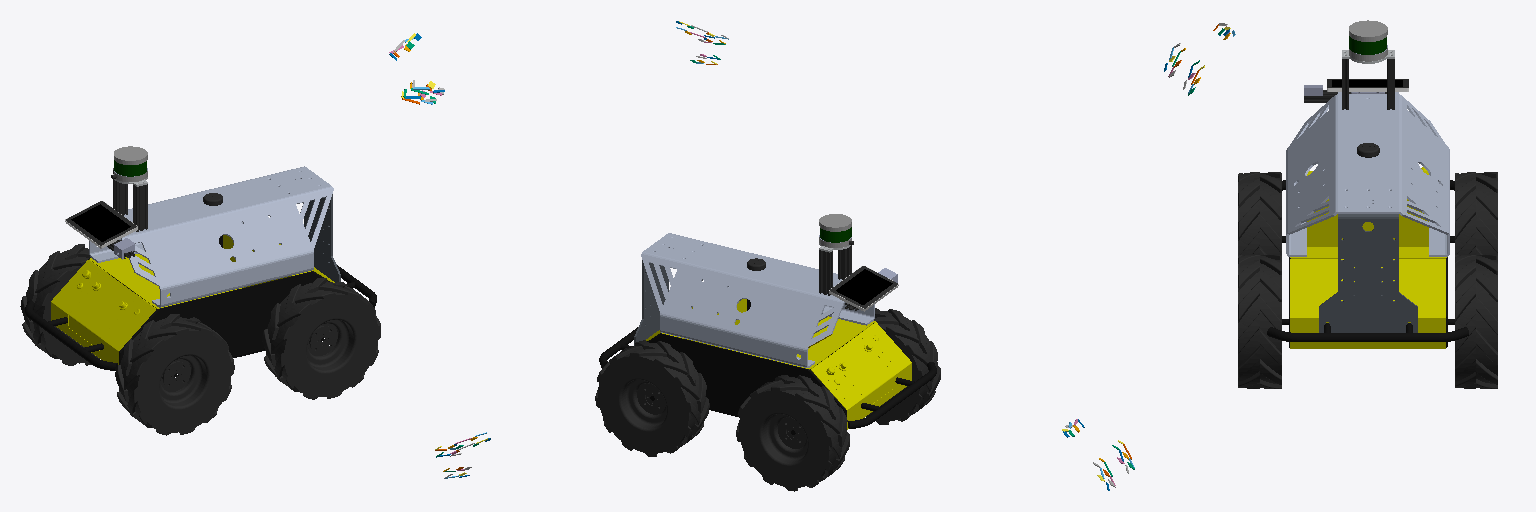
--- What the picture shows (computed from the rendered views, not written in the file) ---
3 views of the same robot in one strip: view 1: azimuth 30°, elevation 25°; view 2: azimuth 150°, elevation 25°; view 3: azimuth 270°, elevation 25° (orthographic).
Robot: husky_robot_gazebo — 126 links, 125 joints (92 revolute, 4 continuous, 29 fixed); root link base_link; default pose: all joints at 0.
Links seen in each view (by area): view 1: dual_arm_bulkhead_link, front_right_wheel_link, rear_right_wheel_link, top_chassis_link, base_link, rear_left_wheel_link, rear_bumper_link; view 2: dual_arm_bulkhead_link, rear_left_wheel_link, front_left_wheel_link, top_chassis_link, base_link, rear_right_wheel_link, rear_bumper_link; view 3: dual_arm_bulkhead_link, top_chassis_link, front_right_wheel_link, front_left_wheel_link, rear_right_wheel_link, rear_left_wheel_link, front_bumper_link.
Link boxes in pixels (left/top/right/bottom): dual_arm_bulkhead_link: left=65, top=146, right=340, bottom=307; front_right_wheel_link: left=262, top=278, right=380, bottom=399; rear_right_wheel_link: left=115, top=314, right=234, bottom=435; top_chassis_link: left=51, top=235, right=334, bottom=364; base_link: left=88, top=235, right=329, bottom=377; rear_left_wheel_link: left=20, top=244, right=99, bottom=365; rear_bumper_link: left=25, top=301, right=117, bottom=370; dual_arm_bulkhead_link: left=634, top=214, right=898, bottom=367; rear_left_wheel_link: left=736, top=375, right=849, bottom=491; front_left_wheel_link: left=595, top=340, right=709, bottom=456; top_chassis_link: left=646, top=299, right=911, bottom=429; base_link: left=647, top=299, right=873, bottom=434; rear_right_wheel_link: left=863, top=308, right=940, bottom=424; rear_bumper_link: left=848, top=362, right=936, bottom=428; dual_arm_bulkhead_link: left=1286, top=20, right=1449, bottom=332; top_chassis_link: left=1290, top=167, right=1446, bottom=348; front_right_wheel_link: left=1238, top=254, right=1281, bottom=388; front_left_wheel_link: left=1455, top=254, right=1497, bottom=388; rear_right_wheel_link: left=1238, top=172, right=1281, bottom=255; rear_left_wheel_link: left=1455, top=172, right=1497, bottom=255; front_bumper_link: left=1267, top=323, right=1468, bottom=341.
Bounding box of the posed robot: 1.05 × 1.15 × 1.35 m (x, y, z).
Meshes: 21 distinct files referenced, 9 mesh visuals loaded (5 Collada DAE); not drawn: 46 (reference not matched to a file when rendering).

The robot description file, URDF, robot "husky_robot_gazebo":
<?xml version="1.0" ?>
<!-- =================================================================================== -->
<!-- |    This document was autogenerated by xacro from ../urdf/description.gazebo.xacro | -->
<!-- |    EDITING THIS FILE BY HAND IS NOT RECOMMENDED                                 | -->
<!-- =================================================================================== -->
<!--
Software License Agreement (BSD)

\file      description.gazebo.xacro
\authors   Paul Bovbel <[email redacted], Devon Ash <[email redacted]>
\copyright Copyright (c) 2015, Clearpath Robotics, Inc., All rights reserved.

Redistribution and use in source and binary forms, with or without modification, are permitted provided that
the following conditions are met:
 * Redistributions of source code must retain the above copyright notice, this list of conditions and the
   following disclaimer.
 * Redistributions in binary form must reproduce the above copyright notice, this list of conditions and the
   following disclaimer in the documentation and/or other materials provided with the distribution.
 * Neither the name of Clearpath Robotics nor the names of its contributors may be used to endorse or promote
   products derived from this software without specific prior written permission.

THIS SOFTWARE IS PROVIDED BY THE COPYRIGHT HOLDERS AND CONTRIBUTORS "AS IS" AND ANY EXPRESS OR IMPLIED WAR-
RANTIES, INCLUDING, BUT NOT LIMITED TO, THE IMPLIED WARRANTIES OF MERCHANTABILITY AND FITNESS FOR A PARTICULAR
PURPOSE ARE DISCLAIMED. IN NO EVENT SHALL THE COPYRIGHT HOLDER OR CONTRIBUTORS BE LIABLE FOR ANY DIRECT, IN-
DIRECT, INCIDENTAL, SPECIAL, EXEMPLARY, OR CONSEQUENTIAL DAMAGES (INCLUDING, BUT NOT LIMITED TO, PROCUREMENT
OF SUBSTITUTE GOODS OR SERVICES; LOSS OF USE, DATA, OR PROFITS; OR BUSINESS INTERRUPTION) HOWEVER CAUSED AND
ON ANY THEORY OF LIABILITY, WHETHER IN CONTRACT, STRICT LIABILITY, OR TORT (INCLUDING NEGLIGENCE OR OTHERWISE)
ARISING IN ANY WAY OUT OF THE USE OF THIS SOFTWARE, EVEN IF ADVISED OF THE POSSIBILITY OF SUCH DAMAGE.
-->
<robot name="husky_robot_gazebo" xmlns:xacro="http://ros.org/wiki/xacro">
  <!-- Included URDF/XACRO Files -->
  <!-- Inertia parameters -->
  <!-- This mass might be incorrect -->
  <!-- Kinematic model -->
  <!-- Properties from urcontrol.conf -->
  <!--
    DH for UR5:
    a = [0.00000, -0.42500, -0.39225,  0.00000,  0.00000,  0.0000]
    d = [0.089159,  0.00000,  0.00000,  0.10915,  0.09465,  0.0823]
    alpha = [ 1.570796327, 0, 0, 1.570796327, -1.570796327, 0 ]
    q_home_offset = [0, -1.570796327, 0, -1.570796327, 0, 0]
    joint_direction = [-1, -1, 1, 1, 1, 1]
    mass = [3.7000, 8.3930, 2.2750, 1.2190, 1.2190, 0.1879]
    center_of_mass = [ [0, -0.02561, 0.00193], [0.2125, 0, 0.11336], [0.11993, 0.0, 0.0265], [0, -0.0018, 0.01634], [0, 0.0018,0.01634], [0, 0, -0.001159] ]
  -->
  <!-- Arbitrary offsets for shoulder/elbow joints -->
  <!-- measured from model -->
  <!-- measured from model -->
  <!-- link lengths used in model -->
  <!--property name="shoulder_height" value="0.089159" /-->
  <!--property name="shoulder_offset" value="0.13585" /-->
  <!-- shoulder_offset - elbow_offset + wrist_1_length = 0.10915 -->
  <!--property name="upper_arm_length" value="0.42500" /-->
  <!--property name="elbow_offset" value="0.1197" /-->
  <!-- CAD measured -->
  <!--property name="forearm_length" value="0.39225" /-->
  <!--property name="wrist_1_length" value="0.093" /-->
  <!-- CAD measured -->
  <!--property name="wrist_2_length" value="0.09465" /-->
  <!-- In CAD this distance is 0.930, but in the spec it is 0.09465 -->
  <!--property name="wrist_3_length" value="0.0823" /-->
  <!-- manually measured -->
  <!-- manually measured -->
  <!-- manually measured -->
  <!-- manually measured -->
  <!-- manually measured -->
  <!-- Base Size -->
  <!-- Wheel Mounting Positions -->
  <!-- Wheel Properties -->
  <!-- Gazebo plugin for ROS Control -->
  <gazebo>
    <plugin filename="libgazebo_ros_control.so" name="gazebo_ros_control">
      <robotNamespace>/</robotNamespace>
    </plugin>
  </gazebo>
  <!-- Base link is the center of the robot's bottom plate -->
  <link name="base_link">
    <visual>
      <origin rpy="0 0 0" xyz="0 0 0"/>
      <geometry>
        <mesh filename="package://husky_description/meshes/base_link.dae"/>
      </geometry>
    </visual>
    <collision>
      <origin rpy="0 0 0" xyz="0 0 0.061875"/>
      <geometry>
        <box size="0.9874 0.5709 0.12375"/>
      </geometry>
    </collision>
    <collision>
      <origin rpy="0 0 0" xyz="0 0 0.185625"/>
      <geometry>
        <box size="0.78992 0.5709 0.12375"/>
      </geometry>
    </collision>
  </link>
  <!-- Base footprint is on the ground under the robot -->
  <link name="base_footprint"/>
  <joint name="base_footprint_joint" type="fixed">
    <origin rpy="0 0 0" xyz="0 0 -0.14493"/>
    <parent link="base_link"/>
    <child link="base_footprint"/>
  </joint>
  <!-- Interial link stores the robot's inertial information -->
  <link name="inertial_link">
    <inertial>
      <mass value="150.455"/>
      <origin xyz="-0.08748 -0.00085 0.09947"/>
      <inertia ixx="0.6022" ixy="-0.02364" ixz="-0.1197" iyy="1.7386" iyz="-0.001544" izz="2.0296"/>
    </inertial>
  </link>
  <joint name="inertial_joint" type="fixed">
    <origin rpy="0 0 0" xyz="0 0 0"/>
    <parent link="base_link"/>
    <child link="inertial_link"/>
  </joint>
  <!-- IMU Link is the standard mounting position for the UM6 IMU.-->
  <!-- Can be modified with environment variables in /etc/ros/setup.bash -->
  <link name="imu_link"/>
  <joint name="imu_joint" type="fixed">
    <origin rpy="0 -1.5708 3.1416" xyz="0.19 0 0.149"/>
    <parent link="base_link"/>
    <child link="imu_link"/>
  </joint>
  <gazebo reference="imu_link">
    </gazebo>
  <!-- Husky wheel macros -->
  <link name="front_left_wheel_link">
    <inertial>
      <mass value="2.637"/>
      <origin xyz="0 0 0"/>
      <inertia ixx="0.02467" ixy="0" ixz="0" iyy="0.02467" iyz="0" izz="0.04411"/>
    </inertial>
    <visual>
      <origin rpy="0 0 0" xyz="0 0 0"/>
      <geometry>
        <mesh filename="package://husky_description/meshes/wheel.dae"/>
      </geometry>
    </visual>
    <collision>
      <origin rpy="1.570795 0 0" xyz="0 0 0"/>
      <geometry>
        <cylinder length="0.1143" radius="0.17775"/>
      </geometry>
    </collision>
  </link>
  <gazebo reference="front_left_wheel_link">
    <mu1 value="1.0"/>
    <mu2 value="1.0"/>
    <kp value="10000000.0"/>
    <kd value="1.0"/>
    <fdir1 value="1 0 0"/>
  </gazebo>
  <joint name="front_left_wheel" type="continuous">
    <parent link="base_link"/>
    <child link="front_left_wheel_link"/>
    <origin rpy="0 0 0" xyz="0.256 0.2854 0.03282"/>
    <axis rpy="0 0 0" xyz="0 1 0"/>
  </joint>
  <transmission name="front_left_wheel_trans" type="SimpleTransmission">
    <type>transmission_interface/SimpleTransmission</type>
    <actuator name="front_left_wheel_motor">
      <mechanicalReduction>1</mechanicalReduction>
    </actuator>
    <joint name="front_left_wheel">
      <hardwareInterface>VelocityJointInterface</hardwareInterface>
    </joint>
  </transmission>
  <link name="front_right_wheel_link">
    <inertial>
      <mass value="2.637"/>
      <origin xyz="0 0 0"/>
      <inertia ixx="0.02467" ixy="0" ixz="0" iyy="0.02467" iyz="0" izz="0.04411"/>
    </inertial>
    <visual>
      <origin rpy="0 0 0" xyz="0 0 0"/>
      <geometry>
        <mesh filename="package://husky_description/meshes/wheel.dae"/>
      </geometry>
    </visual>
    <collision>
      <origin rpy="1.570795 0 0" xyz="0 0 0"/>
      <geometry>
        <cylinder length="0.1143" radius="0.17775"/>
      </geometry>
    </collision>
  </link>
  <gazebo reference="front_right_wheel_link">
    <mu1 value="1.0"/>
    <mu2 value="1.0"/>
    <kp value="10000000.0"/>
    <kd value="1.0"/>
    <fdir1 value="1 0 0"/>
  </gazebo>
  <joint name="front_right_wheel" type="continuous">
    <parent link="base_link"/>
    <child link="front_right_wheel_link"/>
    <origin rpy="0 0 0" xyz="0.256 -0.2854 0.03282"/>
    <axis rpy="0 0 0" xyz="0 1 0"/>
  </joint>
  <transmission name="front_right_wheel_trans" type="SimpleTransmission">
    <type>transmission_interface/SimpleTransmission</type>
    <actuator name="front_right_wheel_motor">
      <mechanicalReduction>1</mechanicalReduction>
    </actuator>
    <joint name="front_right_wheel">
      <hardwareInterface>VelocityJointInterface</hardwareInterface>
    </joint>
  </transmission>
  <link name="rear_left_wheel_link">
    <inertial>
      <mass value="2.637"/>
      <origin xyz="0 0 0"/>
      <inertia ixx="0.02467" ixy="0" ixz="0" iyy="0.02467" iyz="0" izz="0.04411"/>
    </inertial>
    <visual>
      <origin rpy="0 0 0" xyz="0 0 0"/>
      <geometry>
        <mesh filename="package://husky_description/meshes/wheel.dae"/>
      </geometry>
    </visual>
    <collision>
      <origin rpy="1.570795 0 0" xyz="0 0 0"/>
      <geometry>
        <cylinder length="0.1143" radius="0.17775"/>
      </geometry>
    </collision>
  </link>
  <gazebo reference="rear_left_wheel_link">
    <mu1 value="1.0"/>
    <mu2 value="1.0"/>
    <kp value="10000000.0"/>
    <kd value="1.0"/>
    <fdir1 value="1 0 0"/>
  </gazebo>
  <joint name="rear_left_wheel" type="continuous">
    <parent link="base_link"/>
    <child link="rear_left_wheel_link"/>
    <origin rpy="0 0 0" xyz="-0.256 0.2854 0.03282"/>
    <axis rpy="0 0 0" xyz="0 1 0"/>
  </joint>
  <transmission name="rear_left_wheel_trans" type="SimpleTransmission">
    <type>transmission_interface/SimpleTransmission</type>
    <actuator name="rear_left_wheel_motor">
      <mechanicalReduction>1</mechanicalReduction>
    </actuator>
    <joint name="rear_left_wheel">
      <hardwareInterface>VelocityJointInterface</hardwareInterface>
    </joint>
  </transmission>
  <link name="rear_right_wheel_link">
    <inertial>
      <mass value="2.637"/>
      <origin xyz="0 0 0"/>
      <inertia ixx="0.02467" ixy="0" ixz="0" iyy="0.02467" iyz="0" izz="0.04411"/>
    </inertial>
    <visual>
      <origin rpy="0 0 0" xyz="0 0 0"/>
      <geometry>
        <mesh filename="package://husky_description/meshes/wheel.dae"/>
      </geometry>
    </visual>
    <collision>
      <origin rpy="1.570795 0 0" xyz="0 0 0"/>
      <geometry>
        <cylinder length="0.1143" radius="0.17775"/>
      </geometry>
    </collision>
  </link>
  <gazebo reference="rear_right_wheel_link">
    <mu1 value="1.0"/>
    <mu2 value="1.0"/>
    <kp value="10000000.0"/>
    <kd value="1.0"/>
    <fdir1 value="1 0 0"/>
  </gazebo>
  <joint name="rear_right_wheel" type="continuous">
    <parent link="base_link"/>
    <child link="rear_right_wheel_link"/>
    <origin rpy="0 0 0" xyz="-0.256 -0.2854 0.03282"/>
    <axis rpy="0 0 0" xyz="0 1 0"/>
  </joint>
  <transmission name="rear_right_wheel_trans" type="SimpleTransmission">
    <type>transmission_interface/SimpleTransmission</type>
    <actuator name="rear_right_wheel_motor">
      <mechanicalReduction>1</mechanicalReduction>
    </actuator>
    <joint name="rear_right_wheel">
      <hardwareInterface>VelocityJointInterface</hardwareInterface>
    </joint>
  </transmission>
  <!-- Spawn Husky chassis -->
  <link name="top_chassis_link">
    <visual>
      <origin rpy="0 0 0" xyz="0 0 0"/>
      <geometry>
        <mesh filename="package://husky_description/meshes/top_chassis.dae"/>
      </geometry>
    </visual>
  </link>
  <!-- Attach chassis to the robot -->
  <joint name="top_chassis_joint" type="fixed">
    <parent link="base_link"/>
    <child link="top_chassis_link"/>
  </joint>
  <!-- Spawn front bumper link -->
  <link name="front_bumper_link">
    <visual>
      <geometry>
        <mesh filename="package://husky_description/meshes/bumper.dae"/>
      </geometry>
    </visual>
  </link>
  <!-- Attach front bumper -->
  <joint name="front_bumper" type="fixed">
    <origin rpy="0 0 0" xyz="0.48 0 0.091"/>
    <parent link="base_link"/>
    <child link="front_bumper_link"/>
  </joint>
  <!-- Spawn rear bumper link -->
  <link name="rear_bumper_link">
    <visual>
      <geometry>
        <mesh filename="package://husky_description/meshes/bumper.dae"/>
      </geometry>
    </visual>
  </link>
  <!-- Attach rear bumper -->
  <joint name="rear_bumper" type="fixed">
    <origin rpy="0 0 3.14159" xyz="-0.48 0 0.091"/>
    <parent link="base_link"/>
    <child link="rear_bumper_link"/>
  </joint>
  <!-- Spawn the bulkhead -->
  <link name="dual_arm_bulkhead_link">
    <visual>
      <origin rpy="0 0 0" xyz="0 0 0"/>
      <geometry>
        <mesh filename="package://husky_description/meshes/dual_arm_bulkhead.dae"/>
      </geometry>
    </visual>
    <collision>
      <origin rpy="0 0 0" xyz="0 0 0"/>
      <geometry>
        <mesh filename="package://husky_description/meshes/dual_arm_bulkhead.dae"/>
      </geometry>
    </collision>
    <inertial>
      <mass value="9.832"/>
      <origin xyz="0 0 0"/>
      <inertia ixx="0.177184" ixy="-0.0045887" ixz="0.003812" iyy="0.752238" iyz="0.004194" izz="0.1376"/>
    </inertial>
  </link>
  <!-- Attach bulkhead -->
  <joint name="dual_arm_bulkhead_joint" type="fixed">
    <parent link="base_link"/>
    <child link="dual_arm_bulkhead_link"/>
    <origin rpy="0 0 0" xyz="0 0 0.225"/>
  </joint>
  <link name="husky_ptu_pan_link">
    <inertial>
      <mass value="0.65"/>
      <origin rpy="0 0 0" xyz="0 0 0"/>
      <inertia ixx="0.0001" ixy="0" ixz="0" iyy="0.0001" iyz="0" izz="0.0001"/>
    </inertial>
    <visual>
      <material name="ptu_body_color">
        <color rgba="0.3 0.3 0.3 1.0"/>
      </material>
      <origin rpy="3.14 0 0" xyz="-0.0295 0.011 0"/>
      <geometry>
        <mesh filename="package://flir_ptu_description/meshes/flir-ptu-simple.stl"/>
      </geometry>
    </visual>
    <collision>
      <geometry>
        <box size="0.045 0.065 0.044"/>
      </geometry>
      <origin xyz="0 0.011 0"/>
    </collision>
    <collision>
      <geometry>
        <box size="0.046 0.044 0.044"/>
      </geometry>
      <origin xyz="-0.045 0.0215 0"/>
    </collision>
    <collision>
      <geometry>
        <cylinder length="0.015" radius="0.005"/>
      </geometry>
      <origin rpy="0 1.57 0" xyz="-0.074 0.021 0"/>
    </collision>
  </link>
  <gazebo reference="husky_ptu_pan_link">
    <material>Gazebo/DarkGrey</material>
  </gazebo>
  <link name="husky_ptu_tilt_link">
    <inertial>
      <mass value="0.65"/>
      <origin rpy="0 0 0" xyz="0 0 0"/>
      <inertia ixx="0.0001" ixy="0" ixz="0" iyy="0.0001" iyz="0" izz="0.0001"/>
    </inertial>
    <visual>
      <material name="ptu_body_color">
        <color rgba="0.3 0.3 0.3 1.0"/>
      </material>
      <origin rpy="3.14 0 0" xyz="-0.0295 0.011 0"/>
      <geometry>
        <mesh filename="package://flir_ptu_description/meshes/flir-ptu-simple.stl"/>
      </geometry>
    </visual>
    <collision>
      <geometry>
        <box size="0.045 0.065 0.044"/>
      </geometry>
      <origin xyz="0 0.011 0"/>
    </collision>
    <collision>
      <geometry>
        <box size="0.046 0.044 0.044"/>
      </geometry>
      <origin xyz="-0.045 0.0215 0"/>
    </collision>
    <collision>
      <geometry>
        <cylinder length="0.015" radius="0.005"/>
      </geometry>
      <origin rpy="0 1.57 0" xyz="-0.074 0.021 0"/>
    </collision>
  </link>
  <gazebo reference="husky_ptu_tilt_link">
    <material>Gazebo/DarkGrey</material>
  </gazebo>
  <link name="husky_ptu_base_link">
    <inertial>
      <mass value="2e-06"/>
      <inertia ixx="1.1e-09" ixy="0" ixz="0" iyy="1.1e-09" iyz="0" izz="1.1e-09"/>
    </inertial>
  </link>
  <link name="husky_ptu_tilted_link"/>
  <link name="husky_ptu_mount_link">
    <inertial>
      <mass value="2e-06"/>
      <inertia ixx="1.1e-09" ixy="0" ixz="0" iyy="1.1e-09" iyz="0" izz="1.1e-09"/>
    </inertial>
  </link>
  <!-- There's an offset between the origin of the pan joint and the origin of 
         the overall device, which is between the mounting screws on its base. -->
  <joint name="husky_ptu_base" type="fixed">
    <parent link="husky_ptu_base_link"/>
    <child link="husky_ptu_pan_link"/>
    <origin xyz="0 -0.011 0.022"/>
  </joint>
  <!-- The pan joint -->
  <joint name="husky_ptu_pan" type="revolute">
    <parent link="husky_ptu_pan_link"/>
    <origin rpy="-1.5708 0 0" xyz="0 0 0.066"/>
    <child link="husky_ptu_tilt_link"/>
    <axis rpy="3.14159 0 0" xyz="0 -1 0"/>
    <limit effort="30" lower="-2.775" upper="2.775" velocity="1.0"/>
  </joint>
  <transmission name="husky_ptu_pan_trans">
    <type>transmission_interface/SimpleTransmission</type>
    <joint name="husky_ptu_pan">
      <hardwareInterface>PositionJointInterface</hardwareInterface>
    </joint>
    <actuator name="husky_ptu_pan_motor">
      <mechanicalReduction>1</mechanicalReduction>
    </actuator>
  </transmission>
  <!-- The tilt joint -->
  <joint name="husky_ptu_tilt" type="revolute">
    <parent link="husky_ptu_tilt_link"/>
    <origin rpy="-1.5708 0 0" xyz="0 0 0"/>
    <child link="husky_ptu_tilted_link"/>
    <axis xyz="0 1 0"/>
    <limit effort="30" lower="-0.82" upper="0.52" velocity="1.0"/>
  </joint>
  <transmission name="husky_ptu_tilt_trans">
    <type>transmission_interface/SimpleTransmission</type>
    <joint name="husky_ptu_tilt">
      <hardwareInterface>PositionJointInterface</hardwareInterface>
    </joint>
    <actuator name="husky_ptu_tilt_motor">
      <mechanicalReduction>1</mechanicalReduction>
    </actuator>
  </transmission>
  <!-- Fixed joint to provide a convenient attachment point for accessories. -->
  <joint name="husky_ptu_mount" type="fixed">
    <parent link="husky_ptu_tilted_link"/>
    <child link="husky_ptu_mount_link"/>
    <origin rpy="3.1416 0 0" xyz="0 0 -0.03912"/>
  </joint>
  <!-- Connect PTU to Husky bulkhead -->
  <joint name="husky_ptu_joint" type="fixed">
    <origin rpy="0 0 0" xyz="0.365 0 0.20"/>
    <parent link="dual_arm_bulkhead_link"/>
    <child link="husky_ptu_base_link"/>
  </joint>
  <link name="l_ur5_arm_base_link">
    <visual>
      <geometry>
        <mesh filename="package://ur_description/meshes/ur5/visual/base.dae"/>
      </geometry>
      <material name="LightGrey">
        <color rgba="0.7 0.7 0.7 1.0"/>
      </material>
    </visual>
    <collision>
      <geometry>
        <mesh filename="package://ur_description/meshes/ur5/collision/base.stl"/>
      </geometry>
    </collision>
    <inertial>
      <mass value="4.0"/>
      <origin rpy="0 0 0" xyz="0.0 0.0 0.0"/>
      <inertia ixx="0.00443333156" ixy="0.0" ixz="0.0" iyy="0.00443333156" iyz="0.0" izz="0.0072"/>
    </inertial>
  </link>
  <joint name="l_ur5_arm_shoulder_pan_joint" type="revolute">
    <parent link="l_ur5_arm_base_link"/>
    <child link="l_ur5_arm_shoulder_link"/>
    <origin rpy="0.0 0.0 0.0" xyz="0.0 0.0 0.089159"/>
    <axis xyz="0 0 1"/>
    <limit effort="150.0" lower="-3.14159265" upper="3.14159265" velocity="3.15"/>
    <dynamics damping="0.0" friction="0.0"/>
  </joint>
  <link name="l_ur5_arm_shoulder_link">
    <visual>
      <geometry>
        <mesh filename="package://ur_description/meshes/ur5/visual/shoulder.dae"/>
      </geometry>
      <material name="LightGrey">
        <color rgba="0.7 0.7 0.7 1.0"/>
      </material>
    </visual>
    <collision>
      <geometry>
        <mesh filename="package://ur_description/meshes/ur5/collision/shoulder.stl"/>
      </geometry>
    </collision>
    <inertial>
      <mass value="3.7"/>
      <origin rpy="0 0 0" xyz="0.0 0.0 0.0"/>
      <inertia ixx="0.010267495893" ixy="0.0" ixz="0.0" iyy="0.010267495893" iyz="0.0" izz="0.00666"/>
    </inertial>
  </link>
  <joint name="l_ur5_arm_shoulder_lift_joint" type="revolute">
    <parent link="l_ur5_arm_shoulder_link"/>
    <child link="l_ur5_arm_upper_arm_link"/>
    <origin rpy="0.0 1.570796325 0.0" xyz="0.0 0.13585 0.0"/>
    <axis xyz="0 1 0"/>
    <limit effort="150.0" lower="-3.14159265" upper="3.14159265" velocity="3.15"/>
    <dynamics damping="0.0" friction="0.0"/>
  </joint>
  <link name="l_ur5_arm_upper_arm_link">
    <visual>
      <geometry>
        <mesh filename="package://ur_description/meshes/ur5/visual/upperarm.dae"/>
      </geometry>
      <material name="LightGrey">
        <color rgba="0.7 0.7 0.7 1.0"/>
      </material>
    </visual>
    <collision>
      <geometry>
        <mesh filename="package://ur_description/meshes/ur5/collision/upperarm.stl"/>
      </geometry>
    </collision>
    <inertial>
      <mass value="8.393"/>
      <origin rpy="0 0 0" xyz="0.0 0.0 0.28"/>
      <inertia ixx="0.22689067591" ixy="0.0" ixz="0.0" iyy="0.22689067591" iyz="0.0" izz="0.0151074"/>
    </inertial>
  </link>
  <joint name="l_ur5_arm_elbow_joint" type="revolute">
    <parent link="l_ur5_arm_upper_arm_link"/>
    <child link="l_ur5_arm_forearm_link"/>
    <origin rpy="0.0 0.0 0.0" xyz="0.0 -0.1197 0.425"/>
    <axis xyz="0 1 0"/>
    <limit effort="150.0" lower="-3.14159265" upper="3.14159265" velocity="3.15"/>
    <dynamics damping="0.0" friction="0.0"/>
  </joint>
  <link name="l_ur5_arm_forearm_link">
    <visual>
      <geometry>
        <mesh filename="package://ur_description/meshes/ur5/visual/forearm.dae"/>
      </geometry>
      <material name="LightGrey">
        <color rgba="0.7 0.7 0.7 1.0"/>
      </material>
    </visual>
    <collision>
      <geometry>
        <mesh filename="package://ur_description/meshes/ur5/collision/forearm.stl"/>
      </geometry>
    </collision>
    <inertial>
      <mass value="2.275"/>
      <origin rpy="0 0 0" xyz="0.0 0.0 0.25"/>
      <inertia ixx="0.049443313556" ixy="0.0" ixz="0.0" iyy="0.049443313556" iyz="0.0" izz="0.004095"/>
    </inertial>
  </link>
  <joint name="l_ur5_arm_wrist_1_joint" type="revolute">
    <parent link="l_ur5_arm_forearm_link"/>
    <child link="l_ur5_arm_wrist_1_link"/>
    <origin rpy="0.0 1.570796325 0.0" xyz="0.0 0.0 0.39225"/>
    <axis xyz="0 1 0"/>
    <limit effort="28.0" lower="-3.14159265" upper="3.14159265" velocity="3.2"/>
    <dynamics damping="0.0" friction="0.0"/>
  </joint>
  <link name="l_ur5_arm_wrist_1_link">
    <visual>
      <geometry>
        <mesh filename="package://ur_description/meshes/ur5/visual/wrist1.dae"/>
      </geometry>
      <material name="LightGrey">
        <color rgba="0.7 0.7 0.7 1.0"/>
      </material>
    </visual>
    <collision>
      <geometry>
        <mesh filename="package://ur_description/meshes/ur5/collision/wrist1.stl"/>
      </geometry>
    </collision>
    <inertial>
      <mass value="1.219"/>
      <origin rpy="0 0 0" xyz="0.0 0.0 0.0"/>
      <inertia ixx="0.111172755531" ixy="0.0" ixz="0.0" iyy="0.111172755531" iyz="0.0" izz="0.21942"/>
    </inertial>
  </link>
  <joint name="l_ur5_arm_wrist_2_joint" type="revolute">
    <parent link="l_ur5_arm_wrist_1_link"/>
    <child link="l_ur5_arm_wrist_2_link"/>
    <origin rpy="0.0 0.0 0.0" xyz="0.0 0.093 0.0"/>
    <axis xyz="0 0 1"/>
    <limit effort="28.0" lower="-3.14159265" upper="3.14159265" velocity="3.2"/>
    <dynamics damping="0.0" friction="0.0"/>
  </joint>
  <link name="l_ur5_arm_wrist_2_link">
    <visual>
      <geometry>
        <mesh filename="package://ur_description/meshes/ur5/visual/wrist2.dae"/>
      </geometry>
      <material name="LightGrey">
        <color rgba="0.7 0.7 0.7 1.0"/>
      </material>
    </visual>
    <collision>
      <geometry>
        <mesh filename="package://ur_description/meshes/ur5/collision/wrist2.stl"/>
      </geometry>
    </collision>
    <inertial>
      <mass value="1.219"/>
      <origin rpy="0 0 0" xyz="0.0 0.0 0.0"/>
      <inertia ixx="0.111172755531" ixy="0.0" ixz="0.0" iyy="0.111172755531" iyz="0.0" izz="0.21942"/>
    </inertial>
  </link>
  <joint name="l_ur5_arm_wrist_3_joint" type="revolute">
    <parent link="l_ur5_arm_wrist_2_link"/>
    <child link="l_ur5_arm_wrist_3_link"/>
    <origin rpy="0.0 0.0 0.0" xyz="0.0 0.0 0.09465"/>
    <axis xyz="0 1 0"/>
    <limit effort="28.0" lower="-3.14159265" upper="3.14159265" velocity="3.2"/>
    <dynamics damping="0.0" friction="0.0"/>
  </joint>
  <link name="l_ur5_arm_wrist_3_link">
    <visual>
      <geometry>
        <mesh filename="package://ur_description/meshes/ur5/visual/wrist3.dae"/>
      </geometry>
      <material name="LightGrey">
        <color rgba="0.7 0.7 0.7 1.0"/>
      </material>
    </visual>
    <collision>
      <geometry>
        <mesh filename="package://ur_description/meshes/ur5/collision/wrist3.stl"/>
      </geometry>
    </collision>
    <inertial>
      <mass value="0.1879"/>
      <origin rpy="0 0 0" xyz="0.0 0.0 0.0"/>
      <inertia ixx="0.0171364731454" ixy="0.0" ixz="0.0" iyy="0.0171364731454" iyz="0.0" izz="0.033822"/>
    </inertial>
  </link>
  <joint name="l_ur5_arm_ee_fixed_joint" type="fixed">
    <parent link="l_ur5_arm_wrist_3_link"/>
    <child link="l_ur5_arm_ee_link"/>
    <origin rpy="0.0 0.0 1.570796325" xyz="0.0 0.0823 0.0"/>
  </joint>
  <link name="l_ur5_arm_ee_link">
    <collision>
      <geometry>
        <box size="0.01 0.01 0.01"/>
      </geometry>
      <origin rpy="0 0 0" xyz="-0.01 0 0"/>
    </collision>
  </link>
  <transmission name="l_ur5_arm_shoulder_pan_trans">
    <type>transmission_interface/SimpleTransmission</type>
    <joint name="l_ur5_arm_shoulder_pan_joint">
      <hardwareInterface>PositionJointInterface</hardwareInterface>
    </joint>
    <actuator name="l_ur5_arm_shoulder_pan_motor">
      <mechanicalReduction>1</mechanicalReduction>
    </actuator>
  </transmission>
  <transmission name="l_ur5_arm_shoulder_lift_trans">
    <type>transmission_interface/SimpleTransmission</type>
    <joint name="l_ur5_arm_shoulder_lift_joint">
      <hardwareInterface>PositionJointInterface</hardwareInterface>
    </joint>
    <actuator name="l_ur5_arm_shoulder_lift_motor">
      <mechanicalReduction>1</mechanicalReduction>
    </actuator>
  </transmission>
  <transmission name="l_ur5_arm_elbow_trans">
    <type>transmission_interface/SimpleTransmission</type>
    <joint name="l_ur5_arm_elbow_joint">
      <hardwareInterface>PositionJointInterface</hardwareInterface>
    </joint>
    <actuator name="l_ur5_arm_elbow_motor">
      <mechanicalReduction>1</mechanicalReduction>
    </actuator>
  </transmission>
  <transmission name="l_ur5_arm_wrist_1_trans">
    <type>transmission_interface/SimpleTransmission</type>
    <joint name="l_ur5_arm_wrist_1_joint">
      <hardwareInterface>PositionJointInterface</hardwareInterface>
    </joint>
    <actuator name="l_ur5_arm_wrist_1_motor">
      <mechanicalReduction>1</mechanicalReduction>
    </actuator>
  </transmission>
  <transmission name="l_ur5_arm_wrist_2_trans">
    <type>transmission_interface/SimpleTransmission</type>
    <joint name="l_ur5_arm_wrist_2_joint">
      <hardwareInterface>PositionJointInterface</hardwareInterface>
    </joint>
    <actuator name="l_ur5_arm_wrist_2_motor">
      <mechanicalReduction>1</mechanicalReduction>
    </actuator>
  </transmission>
  <transmission name="l_ur5_arm_wrist_3_trans">
    <type>transmission_interface/SimpleTransmission</type>
    <joint name="l_ur5_arm_wrist_3_joint">
      <hardwareInterface>PositionJointInterface</hardwareInterface>
    </joint>
    <actuator name="l_ur5_arm_wrist_3_motor">
      <mechanicalReduction>1</mechanicalReduction>
    </actuator>
  </transmission>
  <!-- nothing to do here at the moment -->
  <!-- ROS base_link to UR 'Base' Coordinates transform -->
  <link name="l_ur5_arm_base"/>
  <joint name="l_ur5_arm_base_link-base_fixed_joint" type="fixed">
    <!-- NOTE: this rotation is only needed as long as base_link itself is
                 not corrected wrt the real robot (ie: rotated over 180
                 degrees)
      -->
    <origin rpy="0 0 -3.14159265" xyz="0 0 0"/>
    <parent link="l_ur5_arm_base_link"/>
    <child link="l_ur5_arm_base"/>
  </joint>
  <!-- Frame coincident with all-zeros TCP on UR controller -->
  <link name="l_ur5_arm_tool0"/>
  <joint name="l_ur5_arm_wrist_3_link-tool0_fixed_joint" type="fixed">
    <origin rpy="-1.570796325 0 0" xyz="0 0.0823 0"/>
    <parent link="l_ur5_arm_wrist_3_link"/>
    <child link="l_ur5_arm_tool0"/>
  </joint>
  <link name="r_ur5_arm_base_link">
    <visual>
      <geometry>
        <mesh filename="package://ur_description/meshes/ur5/visual/base.dae"/>
      </geometry>
      <material name="LightGrey">
        <color rgba="0.7 0.7 0.7 1.0"/>
      </material>
    </visual>
    <collision>
      <geometry>
        <mesh filename="package://ur_description/meshes/ur5/collision/base.stl"/>
      </geometry>
    </collision>
    <inertial>
      <mass value="4.0"/>
      <origin rpy="0 0 0" xyz="0.0 0.0 0.0"/>
      <inertia ixx="0.00443333156" ixy="0.0" ixz="0.0" iyy="0.00443333156" iyz="0.0" izz="0.0072"/>
    </inertial>
  </link>
  <joint name="r_ur5_arm_shoulder_pan_joint" type="revolute">
    <parent link="r_ur5_arm_base_link"/>
    <child link="r_ur5_arm_shoulder_link"/>
    <origin rpy="0.0 0.0 0.0" xyz="0.0 0.0 0.089159"/>
    <axis xyz="0 0 1"/>
    <limit effort="150.0" lower="-3.14159265" upper="3.14159265" velocity="3.15"/>
    <dynamics damping="0.0" friction="0.0"/>
  </joint>
  <link name="r_ur5_arm_shoulder_link">
    <visual>
      <geometry>
        <mesh filename="package://ur_description/meshes/ur5/visual/shoulder.dae"/>
      </geometry>
      <material name="LightGrey">
        <color rgba="0.7 0.7 0.7 1.0"/>
      </material>
    </visual>
    <collision>
      <geometry>
        <mesh filename="package://ur_description/meshes/ur5/collision/shoulder.stl"/>
      </geometry>
    </collision>
    <inertial>
      <mass value="3.7"/>
      <origin rpy="0 0 0" xyz="0.0 0.0 0.0"/>
      <inertia ixx="0.010267495893" ixy="0.0" ixz="0.0" iyy="0.010267495893" iyz="0.0" izz="0.00666"/>
    </inertial>
  </link>
  <joint name="r_ur5_arm_shoulder_lift_joint" type="revolute">
    <parent link="r_ur5_arm_shoulder_link"/>
    <child link="r_ur5_arm_upper_arm_link"/>
    <origin rpy="0.0 1.570796325 0.0" xyz="0.0 0.13585 0.0"/>
    <axis xyz="0 1 0"/>
    <limit effort="150.0" lower="-3.14159265" upper="3.14159265" velocity="3.15"/>
    <dynamics damping="0.0" friction="0.0"/>
  </joint>
  <link name="r_ur5_arm_upper_arm_link">
    <visual>
      <geometry>
        <mesh filename="package://ur_description/meshes/ur5/visual/upperarm.dae"/>
      </geometry>
      <material name="LightGrey">
        <color rgba="0.7 0.7 0.7 1.0"/>
      </material>
    </visual>
    <collision>
      <geometry>
        <mesh filename="package://ur_description/meshes/ur5/collision/upperarm.stl"/>
      </geometry>
    </collision>
    <inertial>
      <mass value="8.393"/>
      <origin rpy="0 0 0" xyz="0.0 0.0 0.28"/>
      <inertia ixx="0.22689067591" ixy="0.0" ixz="0.0" iyy="0.22689067591" iyz="0.0" izz="0.0151074"/>
    </inertial>
  </link>
  <joint name="r_ur5_arm_elbow_joint" type="revolute">
    <parent link="r_ur5_arm_upper_arm_link"/>
    <child link="r_ur5_arm_forearm_link"/>
    <origin rpy="0.0 0.0 0.0" xyz="0.0 -0.1197 0.425"/>
    <axis xyz="0 1 0"/>
    <limit effort="150.0" lower="-3.14159265" upper="3.14159265" velocity="3.15"/>
    <dynamics damping="0.0" friction="0.0"/>
  </joint>
  <link name="r_ur5_arm_forearm_link">
    <visual>
      <geometry>
        <mesh filename="package://ur_description/meshes/ur5/visual/forearm.dae"/>
      </geometry>
      <material name="LightGrey">
        <color rgba="0.7 0.7 0.7 1.0"/>
      </material>
    </visual>
    <collision>
      <geometry>
        <mesh filename="package://ur_description/meshes/ur5/collision/forearm.stl"/>
      </geometry>
    </collision>
    <inertial>
      <mass value="2.275"/>
      <origin rpy="0 0 0" xyz="0.0 0.0 0.25"/>
      <inertia ixx="0.049443313556" ixy="0.0" ixz="0.0" iyy="0.049443313556" iyz="0.0" izz="0.004095"/>
    </inertial>
  </link>
  <joint name="r_ur5_arm_wrist_1_joint" type="revolute">
    <parent link="r_ur5_arm_forearm_link"/>
    <child link="r_ur5_arm_wrist_1_link"/>
    <origin rpy="0.0 1.570796325 0.0" xyz="0.0 0.0 0.39225"/>
    <axis xyz="0 1 0"/>
    <limit effort="28.0" lower="-3.14159265" upper="3.14159265" velocity="3.2"/>
    <dynamics damping="0.0" friction="0.0"/>
  </joint>
  <link name="r_ur5_arm_wrist_1_link">
    <visual>
      <geometry>
        <mesh filename="package://ur_description/meshes/ur5/visual/wrist1.dae"/>
      </geometry>
      <material name="LightGrey">
        <color rgba="0.7 0.7 0.7 1.0"/>
      </material>
    </visual>
    <collision>
      <geometry>
        <mesh filename="package://ur_description/meshes/ur5/collision/wrist1.stl"/>
      </geometry>
    </collision>
    <inertial>
      <mass value="1.219"/>
      <origin rpy="0 0 0" xyz="0.0 0.0 0.0"/>
      <inertia ixx="0.111172755531" ixy="0.0" ixz="0.0" iyy="0.111172755531" iyz="0.0" izz="0.21942"/>
    </inertial>
  </link>
  <joint name="r_ur5_arm_wrist_2_joint" type="revolute">
    <parent link="r_ur5_arm_wrist_1_link"/>
    <child link="r_ur5_arm_wrist_2_link"/>
    <origin rpy="0.0 0.0 0.0" xyz="0.0 0.093 0.0"/>
    <axis xyz="0 0 1"/>
    <limit effort="28.0" lower="-3.14159265" upper="3.14159265" velocity="3.2"/>
    <dynamics damping="0.0" friction="0.0"/>
  </joint>
  <link name="r_ur5_arm_wrist_2_link">
    <visual>
      <geometry>
        <mesh filename="package://ur_description/meshes/ur5/visual/wrist2.dae"/>
      </geometry>
      <material name="LightGrey">
        <color rgba="0.7 0.7 0.7 1.0"/>
      </material>
    </visual>
    <collision>
      <geometry>
        <mesh filename="package://ur_description/meshes/ur5/collision/wrist2.stl"/>
      </geometry>
    </collision>
    <inertial>
      <mass value="1.219"/>
      <origin rpy="0 0 0" xyz="0.0 0.0 0.0"/>
      <inertia ixx="0.111172755531" ixy="0.0" ixz="0.0" iyy="0.111172755531" iyz="0.0" izz="0.21942"/>
    </inertial>
  </link>
  <joint name="r_ur5_arm_wrist_3_joint" type="revolute">
    <parent link="r_ur5_arm_wrist_2_link"/>
    <child link="r_ur5_arm_wrist_3_link"/>
    <origin rpy="0.0 0.0 0.0" xyz="0.0 0.0 0.09465"/>
    <axis xyz="0 1 0"/>
    <limit effort="28.0" lower="-3.14159265" upper="3.14159265" velocity="3.2"/>
    <dynamics damping="0.0" friction="0.0"/>
  </joint>
  <link name="r_ur5_arm_wrist_3_link">
    <visual>
      <geometry>
        <mesh filename="package://ur_description/meshes/ur5/visual/wrist3.dae"/>
      </geometry>
      <material name="LightGrey">
        <color rgba="0.7 0.7 0.7 1.0"/>
      </material>
    </visual>
    <collision>
      <geometry>
        <mesh filename="package://ur_description/meshes/ur5/collision/wrist3.stl"/>
      </geometry>
    </collision>
    <inertial>
      <mass value="0.1879"/>
      <origin rpy="0 0 0" xyz="0.0 0.0 0.0"/>
      <inertia ixx="0.0171364731454" ixy="0.0" ixz="0.0" iyy="0.0171364731454" iyz="0.0" izz="0.033822"/>
    </inertial>
  </link>
  <joint name="r_ur5_arm_ee_fixed_joint" type="fixed">
    <parent link="r_ur5_arm_wrist_3_link"/>
    <child link="r_ur5_arm_ee_link"/>
    <origin rpy="0.0 0.0 1.570796325" xyz="0.0 0.0823 0.0"/>
  </joint>
  <link name="r_ur5_arm_ee_link">
    <collision>
      <geometry>
        <box size="0.01 0.01 0.01"/>
      </geometry>
      <origin rpy="0 0 0" xyz="-0.01 0 0"/>
    </collision>
  </link>
  <transmission name="r_ur5_arm_shoulder_pan_trans">
    <type>transmission_interface/SimpleTransmission</type>
    <joint name="r_ur5_arm_shoulder_pan_joint">
      <hardwareInterface>PositionJointInterface</hardwareInterface>
    </joint>
    <actuator name="r_ur5_arm_shoulder_pan_motor">
      <mechanicalReduction>1</mechanicalReduction>
    </actuator>
  </transmission>
  <transmission name="r_ur5_arm_shoulder_lift_trans">
    <type>transmission_interface/SimpleTransmission</type>
    <joint name="r_ur5_arm_shoulder_lift_joint">
      <hardwareInterface>PositionJointInterface</hardwareInterface>
    </joint>
    <actuator name="r_ur5_arm_shoulder_lift_motor">
      <mechanicalReduction>1</mechanicalReduction>
    </actuator>
  </transmission>
  <transmission name="r_ur5_arm_elbow_trans">
    <type>transmission_interface/SimpleTransmission</type>
    <joint name="r_ur5_arm_elbow_joint">
      <hardwareInterface>PositionJointInterface</hardwareInterface>
    </joint>
    <actuator name="r_ur5_arm_elbow_motor">
      <mechanicalReduction>1</mechanicalReduction>
    </actuator>
  </transmission>
  <transmission name="r_ur5_arm_wrist_1_trans">
    <type>transmission_interface/SimpleTransmission</type>
    <joint name="r_ur5_arm_wrist_1_joint">
      <hardwareInterface>PositionJointInterface</hardwareInterface>
    </joint>
    <actuator name="r_ur5_arm_wrist_1_motor">
      <mechanicalReduction>1</mechanicalReduction>
    </actuator>
  </transmission>
  <transmission name="r_ur5_arm_wrist_2_trans">
    <type>transmission_interface/SimpleTransmission</type>
    <joint name="r_ur5_arm_wrist_2_joint">
      <hardwareInterface>PositionJointInterface</hardwareInterface>
    </joint>
    <actuator name="r_ur5_arm_wrist_2_motor">
      <mechanicalReduction>1</mechanicalReduction>
    </actuator>
  </transmission>
  <transmission name="r_ur5_arm_wrist_3_trans">
    <type>transmission_interface/SimpleTransmission</type>
    <joint name="r_ur5_arm_wrist_3_joint">
      <hardwareInterface>PositionJointInterface</hardwareInterface>
    </joint>
    <actuator name="r_ur5_arm_wrist_3_motor">
      <mechanicalReduction>1</mechanicalReduction>
    </actuator>
  </transmission>
  <!-- nothing to do here at the moment -->
  <!-- ROS base_link to UR 'Base' Coordinates transform -->
  <link name="r_ur5_arm_base"/>
  <joint name="r_ur5_arm_base_link-base_fixed_joint" type="fixed">
    <!-- NOTE: this rotation is only needed as long as base_link itself is
                 not corrected wrt the real robot (ie: rotated over 180
                 degrees)
      -->
    <origin rpy="0 0 -3.14159265" xyz="0 0 0"/>
    <parent link="r_ur5_arm_base_link"/>
    <child link="r_ur5_arm_base"/>
  </joint>
  <!-- Frame coincident with all-zeros TCP on UR controller -->
  <link name="r_ur5_arm_tool0"/>
  <joint name="r_ur5_arm_wrist_3_link-tool0_fixed_joint" type="fixed">
    <origin rpy="-1.570796325 0 0" xyz="0 0.0823 0"/>
    <parent link="r_ur5_arm_wrist_3_link"/>
    <child link="r_ur5_arm_tool0"/>
  </joint>
  <!-- Add laser specifically for this mode -->
  <link name="base_laser">
    <inertial>
      <mass value="1.1"/>
      <origin xyz="0 0 0"/>
      <inertia ixx="0.00307156543804" ixy="0.0" ixz="0.0" iyy="0.00312849041527" iyz="0.0" izz="0.00196432421427"/>
    </inertial>
    <visual>
      <origin rpy="0 0 0" xyz="0 0 0"/>
      <geometry>
        <!-- Origin of this mesh is the focal point of the LIDAR. -->
        <mesh filename="package://lms1xx/meshes/sick-lms1xx.dae"/>
      </geometry>
    </visual>
    <collision>
      <origin rpy="0 0 0" xyz="0 0 -0.05"/>
      <geometry>
        <box size="0.105 0.1 0.1"/>
      </geometry>
    </collision>
  </link>
  <gazebo reference="base_laser">
    <turnGravityOff>true</turnGravityOff>
    <sensor name="base_laser" type="ray">
      <pose>0 0 0 0 0 0</pose>
      <visualize>false</visualize>
      <update_rate>50</update_rate>
      <ray>
        <scan>
          <horizontal>
            <samples>720</samples>
            <resolution>1</resolution>
            <min_angle>-2.35619</min_angle>
            <max_angle>2.35619</max_angle>
          </horizontal>
        </scan>
        <range>
          <min>0.10</min>
          <max>30.0</max>
          <resolution>0.01</resolution>
        </range>
        <noise>
          <type>gaussian</type>
          <mean>0.0</mean>
          <stddev>0.001</stddev>
        </noise>
      </ray>
      <plugin filename="libgazebo_ros_laser.so" name="gazebo_ros_laser">
        <topicName>scan</topicName>
        <frameName>base_laser</frameName>
      </plugin>
    </sensor>
  </gazebo>
  <!-- This offset is from the base of the bracket to the LIDAR's focal point. -->
  <joint name="base_laser_joint" type="fixed">
    <origin rpy="3.14159 0 0" xyz="0.465 0 -0.085"/>
    <parent link="dual_arm_bulkhead_link"/>
    <child link="base_laser"/>
  </joint>
  <!-- Add bumblebee camera -->
  <link name="bumblebee2">
    <visual>
      <origin rpy="-1.5707 0 -1.5707" xyz="0 0 0"/>
      <geometry>
        <mesh filename="package://pointgrey_camera_description/meshes/pointgrey_bumblebee2.dae"/>
      </geometry>
    </visual>
    <collision>
      <origin rpy="0 0 0" xyz="0 0 0"/>
      <geometry>
        <box size="0.04740 0.157 0.036"/>
      </geometry>
    </collision>
    <inertial>
      <mass value="0.342"/>
      <inertia ixx="0.00010096866" ixy="0" ixz="0" iyy="0.00076652916" iyz="0" izz="0.0007394325"/>
    </inertial>
  </link>
  <link name="bumblebee2_optical">
    <inertial>
      <mass value="1E-5"/>
      <inertia ixx="1E-10" ixy="0" ixz="0" iyy="1E-10" iyz="0" izz="1E-10"/>
    </inertial>
  </link>
  <joint name="bumblebee2_optical_joint" type="fixed">
    <origin rpy="-1.570796 0 -1.570796" xyz="0 0 0"/>
    <parent link="bumblebee2"/>
    <child link="bumblebee2_optical"/>
  </joint>
  <gazebo reference="bumblebee2_optical">
    <sensor name="stereo_camera" type="multicamera">
      <update_rate>20</update_rate>
      <camera name="left">
        <pose>0 0 0 0 -1.5707 1.5707</pose>
        <horizontal_fov>1.15191730632</horizontal_fov>
        <image>
          <width>1024</width>
          <height>768</height>
          <format>R8G8B8</format>
        </image>
        <clip>
          <near>0.5</near>
          <far>300</far>
        </clip>
        <noise>
          <type>gaussian</type>
          <mean>0.0</mean>
          <stddev>0.007</stddev>
        </noise>
      </camera>
      <camera name="right">
        <pose>0.12 0 0 0 -1.5707 1.5707</pose>
        <horizontal_fov>1.15191730632</horizontal_fov>
        <image>
          <width>1024</width>
          <height>768</height>
          <format>R8G8B8</format>
        </image>
        <clip>
          <near>0.5</near>
          <far>300</far>
        </clip>
        <noise>
          <type>gaussian</type>
          <mean>0.0</mean>
          <stddev>0.007</stddev>
        </noise>
      </camera>
      <plugin filename="libgazebo_ros_multicamera.so" name="stereo_camera_controller">
        <alwaysOn>true</alwaysOn>
        <cameraName>bumblebee2</cameraName>
        <imageTopicName>image_raw</imageTopicName>
        <cameraInfoTopicName>camera_info</cameraInfoTopicName>
        <frameName>bumblebee2_optical</frameName>
        <hackBaseline>0.12</hackBaseline>
        <!-- NOTE: Distortion is currently unused -->
        <distortionK1>0.0</distortionK1>
        <distortionK2>0.0</distortionK2>
        <distortionK3>0.0</distortionK3>
        <distortionT1>0.0</distortionT1>
        <distortionT2>0.0</distortionT2>
      </plugin>
    </sensor>
  </gazebo>
  <joint name="bumblebee2_mount_joint" type="fixed">
    <origin rpy="0 0 0" xyz="0 0 0.00"/>
    <parent link="husky_ptu_mount_link"/>
    <child link="bumblebee2"/>
  </joint>
  <!-- Add force torque model FT300 -->
  <!-- mount the fts to the robot -->
  <joint name="l_robotiq_fts300_fts_fix" type="fixed">
    <!--In most cases origin would be flange adapter plate: <origin xyz="0 0 0.009" rpy="0 0 0"/> /-->
    <origin rpy="0 1.57 0" xyz="0 0 0"/>
    <parent link="l_ur5_arm_ee_link"/>
    <child link="l_robotiq_fts300_fts_robotside"/>
  </joint>
  <link name="l_robotiq_fts300_fts_robotside">
    <inertial>
      <origin rpy="0 0 0" xyz="0 0 0.01875"/>
      <mass value="0.65"/>
      <inertia ixx="0.000661171875" ixy="0" ixz="0" iyy="0.000661171875" iyz="0" izz="0.00117"/>
    </inertial>
    <visual>
      <origin rpy="0 0 0" xyz="0 0 0"/>
      <geometry>
        <mesh filename="package://robotiq_force_torque_sensor/meshes/visual/robotiq_fts300.dae"/>
      </geometry>
      <material name="black"/>
    </visual>
    <collision>
      <origin rpy="0 0 0" xyz="0 0 0"/>
      <geometry>
        <mesh filename="package://robotiq_force_torque_sensor/meshes/collision/robotiq_fts300.dae"/>
      </geometry>
    </collision>
  </link>
  <!-- virtual measurement frame -->
  <joint name="l_robotiq_fts300_measurment_joint" type="fixed">
    <origin rpy="0 0 0" xyz="0 0 0.01625"/>
    <parent link="l_robotiq_fts300_fts_robotside"/>
    <child link="l_robotiq_fts300_robotiq_force_torque_frame_id"/>
  </joint>
  <link name="l_robotiq_fts300_robotiq_force_torque_frame_id"/>
  <!-- toolside frame -->
  <joint name="l_robotiq_fts300_toolside_joint" type="fixed">
    <origin rpy="0 0 0" xyz="0 0 0.0375"/>
    <parent link="l_robotiq_fts300_fts_robotside"/>
    <child link="l_robotiq_fts300_fts_toolside"/>
  </joint>
  <link name="l_robotiq_fts300_fts_toolside"/>
  <!-- mount the fts to the robot -->
  <joint name="r_robotiq_fts300_fts_fix" type="fixed">
    <!--In most cases origin would be flange adapter plate: <origin xyz="0 0 0.009" rpy="0 0 0"/> /-->
    <origin rpy="0 1.57 0" xyz="0 0 0"/>
    <parent link="r_ur5_arm_ee_link"/>
    <child link="r_robotiq_fts300_fts_robotside"/>
  </joint>
  <link name="r_robotiq_fts300_fts_robotside">
    <inertial>
      <origin rpy="0 0 0" xyz="0 0 0.01875"/>
      <mass value="0.65"/>
      <inertia ixx="0.000661171875" ixy="0" ixz="0" iyy="0.000661171875" iyz="0" izz="0.00117"/>
    </inertial>
    <visual>
      <origin rpy="0 0 0" xyz="0 0 0"/>
      <geometry>
        <mesh filename="package://robotiq_force_torque_sensor/meshes/visual/robotiq_fts300.dae"/>
      </geometry>
      <material name="black"/>
    </visual>
    <collision>
      <origin rpy="0 0 0" xyz="0 0 0"/>
      <geometry>
        <mesh filename="package://robotiq_force_torque_sensor/meshes/collision/robotiq_fts300.dae"/>
      </geometry>
    </collision>
  </link>
  <!-- virtual measurement frame -->
  <joint name="r_robotiq_fts300_measurment_joint" type="fixed">
    <origin rpy="0 0 0" xyz="0 0 0.01625"/>
    <parent link="r_robotiq_fts300_fts_robotside"/>
    <child link="r_robotiq_fts300_robotiq_force_torque_frame_id"/>
  </joint>
  <link name="r_robotiq_fts300_robotiq_force_torque_frame_id"/>
  <!-- toolside frame -->
  <joint name="r_robotiq_fts300_toolside_joint" type="fixed">
    <origin rpy="0 0 0" xyz="0 0 0.0375"/>
    <parent link="r_robotiq_fts300_fts_robotside"/>
    <child link="r_robotiq_fts300_fts_toolside"/>
  </joint>
  <link name="r_robotiq_fts300_fts_toolside"/>
  <!-- joint attaching parent link to robotiq hand -->
  <joint name="l_robotiq_hand_joint" type="fixed">
    <origin rpy="1.57 0 0" xyz="0 0 0.08"/>
    <parent link="l_robotiq_fts300_fts_toolside"/>
    <child link="l_palm"/>
  </joint>
  <!-- Insert the fingers -->
  <!-- Link list -->
  <!-- Link 0 -->
  <link name="l_finger_1_link_0">
    <visual>
      <origin rpy="0 0 0" xyz="0 0 0"/>
      <geometry>
        <mesh filename="package://robotiq_s_model_visualization/meshes/s-model_articulated/visual/link_0.STL"/>
      </geometry>
      <material name="green">
        <color rgba="0 1 0 1"/>
      </material>
    </visual>
    <collision>
      <origin rpy="0 0 0" xyz="0 0 0"/>
      <geometry>
        <mesh filename="package://robotiq_s_model_visualization/meshes/s-model_articulated/collision/link_0.STL"/>
      </geometry>
      <material name="yellow">
        <color rgba="0 1 1 1"/>
      </material>
    </collision>
    <inertial>
      <mass value="0.1"/>
      <origin xyz="-0.01 0 0"/>
      <inertia ixx="0.000018" ixy="0" ixz="0" iyy="0.000025" iyz="0" izz="0.000025"/>
    </inertial>
  </link>
  <gazebo reference="l_finger_1_link_0">
    <mu1>1.1</mu1>
    <mu2>1.1</mu2>
  </gazebo>
  <!-- Link 1 -->
  <link name="l_finger_1_link_1">
    <visual>
      <origin rpy="0 0 1.5708" xyz="0 0.05717 0"/>
      <geometry>
        <mesh filename="package://robotiq_s_model_visualization/meshes/s-model_articulated/visual/link_1.STL"/>
      </geometry>
      <material name="green"/>
    </visual>
    <collision>
      <origin rpy="0 0 1.5708" xyz="0 0.05717 0"/>
      <geometry>
        <mesh filename="package://robotiq_s_model_visualization/meshes/s-model_articulated/collision/link_1.STL"/>
      </geometry>
      <material name="yellow">
        <color rgba="0 1 1 1"/>
      </material>
    </collision>
    <inertial>
      <origin rpy="0 0 1.5708" xyz="0.00053 0.03218 0"/>
      <mass value="0.047"/>
      <inertia ixx="0.00000499332" ixy="0.00000091312" ixz="-0.00000000120" iyy="0.00006434531" iyz="-0.00000000007" izz="0.00006061917"/>
    </inertial>
  </link>
  <gazebo reference="l_finger_1_link_1">
    <mu1>1.1</mu1>
    <mu2>1.1</mu2>
  </gazebo>
  <!-- Link 2 -->
  <link name="l_finger_1_link_2">
    <visual>
      <origin rpy="0 0 1.5708" xyz="0 0.03810 0.0075"/>
      <geometry>
        <mesh filename="package://robotiq_s_model_visualization/meshes/s-model_articulated/visual/link_2.STL"/>
      </geometry>
      <material name="green"/>
    </visual>
    <collision>
      <origin rpy="0 0 1.5708" xyz="0 0.03810 0.0075"/>
      <geometry>
        <mesh filename="package://robotiq_s_model_visualization/meshes/s-model_articulated/collision/link_2.STL"/>
      </geometry>
      <material name="yellow"/>
    </collision>
    <inertial>
      <origin rpy="0 0 1.5708" xyz="0.00048 0.02167 0.00018"/>
      <mass value="0.03284"/>
      <inertia ixx="0.00000348008" ixy="0.00000031940" ixz="0.00000013041" iyy="0.00002248123" iyz="0.00000000291" izz="0.00001986346"/>
    </inertial>
  </link>
  <gazebo reference="l_finger_1_link_2">
    <mu1>1.1</mu1>
    <mu2>1.1</mu2>
  </gazebo>
  <!-- Link 3 -->
  <link name="l_finger_1_link_3">
    <visual>
      <origin rpy="0 0 0" xyz="0 0 0"/>
      <geometry>
        <mesh filename="package://robotiq_s_model_visualization/meshes/s-model_articulated/visual/link_3.STL"/>
      </geometry>
      <material name="green"/>
    </visual>
    <collision>
      <origin rpy="0 0 0" xyz="0 0 0"/>
      <geometry>
        <mesh filename="package://robotiq_s_model_visualization/meshes/s-model_articulated/collision/link_3.STL"/>
      </geometry>
      <material name="yellow"/>
    </collision>
    <inertial>
      <origin rpy="0 0 0" xyz="0.01626 0.00049 0.0002"/>
      <mass value="0.03354"/>
      <inertia ixx="0.00000305151" ixy="0.00000089792" ixz="0.00000000249" iyy="0.00001427978" iyz="-0.00000001191" izz="0.00001264126"/>
    </inertial>
  </link>
  <gazebo reference="l_finger_1_link_3">
    <mu1>1.1</mu1>
    <mu2>1.1</mu2>
  </gazebo>
  <!-- Link proximal actuating hinge -->
  <link name="l_finger_1_link_proximal_actuating_hinge">
    <visual>
      <origin rpy="0 0 0" xyz="0.01429 0 0"/>
      <geometry>
        <box size="0.02858 .0075 .002"/>
      </geometry>
    </visual>
    <collision>
      <origin rpy="0 0 0" xyz="0.01429 0 0"/>
      <geometry>
        <box size="0.02858 .0075 .002"/>
      </geometry>
    </collision>
    <inertial>
      <origin rpy="0 0 0" xyz="0.0012 -0.00162 -0.00161"/>
      <mass value="0.02647"/>
      <inertia ixx="0.00000156447" ixy="0.000000236226" ixz="-0.00000014862" iyy="0.00000221068" iyz="-0.00000014369" izz="0.00000323175"/>
    </inertial>
  </link>
  <gazebo reference="l_finger_1_link_proximal_actuating_hinge">
    <mu1>1.1</mu1>
    <mu2>1.1</mu2>
  </gazebo>
  <!-- Link paraproximal actuating hinge -->
  <link name="l_finger_1_link_paraproximal_actuating_hinge">
    <visual>
      <origin rpy="0 0 0" xyz="0.01143 0 0"/>
      <geometry>
        <box size="0.02286 .0075 .002"/>
      </geometry>
    </visual>
    <collision>
      <origin rpy="0 0 0" xyz="0.01143 0 0"/>
      <geometry>
        <box size="0.02286 .0075 .002"/>
      </geometry>
    </collision>
    <inertial>
      <origin rpy="0 0 0" xyz="0.0064 0 0"/>
      <!-- copied from proximal_actuating_hinge -->
      <mass value="0.00362"/>
      <inertia ixx="0.00000012043" ixy="0" ixz="0" iyy="0.00000053588" iyz="0" izz="0.00000065322"/>
    </inertial>
  </link>
  <gazebo reference="l_finger_1_link_paraproximal_actuating_hinge">
    <mu1>1.1</mu1>
    <mu2>1.1</mu2>
  </gazebo>
  <!-- Link proximal actuating bar -->
  <link name="l_finger_1_link_proximal_actuating_bar">
    <visual>
      <origin rpy="0 0 0" xyz="0.026789 0 0"/>
      <geometry>
        <box size="0.05398 .0075 .002"/>
      </geometry>
    </visual>
    <collision>
      <origin rpy="0 0 0" xyz="0.026789 0 0"/>
      <geometry>
        <box size="0.05398 .0075 .002"/>
      </geometry>
    </collision>
    <inertial>
      <origin rpy="0 0 0" xyz="0.02699 -0.00122 0"/>
      <mass value="0.00659"/>
      <inertia ixx="0.00000008348" ixy="-0.0000002179" ixz="0.00000000134" iyy="0.00000719076" iyz="0" izz="0.00000718272"/>
    </inertial>
  </link>
  <gazebo reference="l_finger_1_link_proximal_actuating_bar">
    <mu1>1.1</mu1>
    <mu2>1.1</mu2>
  </gazebo>
  <!-- Link paraproximal bar -->
  <link name="l_finger_1_link_paraproximal_bar">
    <visual>
      <origin rpy="0 0 0" xyz="0.02885 0 0"/>
      <geometry>
        <box size="0.05770 .0075 .002"/>
      </geometry>
    </visual>
    <collision>
      <origin rpy="0 0 0" xyz="0.02885 0 0"/>
      <geometry>
        <box size="0.05770 .0075 .002"/>
      </geometry>
    </collision>
    <inertial>
      <origin rpy="0 0 0" xyz="0.02858 -0.00129 0"/>
      <mass value="0.00732"/>
      <inertia ixx="0.00000009065" ixy="-0.00000027047" ixz="0.00000000142" iyy="0.00000878034" iyz="0" izz="0.00000877558"/>
    </inertial>
  </link>
  <gazebo reference="l_finger_1_link_paraproximal_bar">
    <mu1>1.1</mu1>
    <mu2>1.1</mu2>
  </gazebo>
  <!-- Link median actuating hinge -->
  <link name="l_finger_1_link_median_actuating_hinge">
    <visual>
      <origin rpy="0 0 0" xyz="0 0 0"/>
      <geometry>
        <box size=".02 .02 .002"/>
      </geometry>
    </visual>
    <collision>
      <origin rpy="0 0 0" xyz="0 0 0"/>
      <geometry>
        <box size=".02 .02 .002"/>
      </geometry>
    </collision>
    <inertial>
      <origin rpy="0 0 0" xyz="0.0092 0.00514 0"/>
      <mass value="0.00359"/>
      <inertia ixx="0.00000024735" ixy="0.00000023619" ixz="0" iyy="0.00000047681" iyz="0" izz="0.00000071813"/>
    </inertial>
  </link>
  <gazebo reference="l_finger_1_link_median_actuating_hinge">
    <mu1>1.1</mu1>
    <mu2>1.1</mu2>
  </gazebo>
  <!-- Link median bar -->
  <link name="l_finger_1_link_median_bar">
    <visual>
      <origin rpy="0 0 0" xyz="0.01905 0 0"/>
      <geometry>
        <box size="0.0381 .0075 .002"/>
      </geometry>
    </visual>
    <collision>
      <origin rpy="0 0 0" xyz="0.01905 0 0"/>
      <geometry>
        <box size="0.0381 .0075 .002"/>
      </geometry>
    </collision>
    <inertial>
      <origin rpy="0 0 0" xyz="0.01905 -0.00107 0"/>
      <mass value="0.00538"/>
      <inertia ixx="0.00000006639" ixy="-0.00000010996" ixz="0.00000000094" iyy="0.00000305318" iyz="0" izz="0.00000304657"/>
    </inertial>
  </link>
  <gazebo reference="l_finger_1_link_median_bar">
    <mu1>1.1</mu1>
    <mu2>1.1</mu2>
  </gazebo>
  <!-- Link paramedian hinge -->
  <link name="l_finger_1_link_paramedian_hinge">
    <visual>
      <origin rpy="0 0 0" xyz="0 0 0"/>
      <geometry>
        <box size=".02 .02 .002"/>
      </geometry>
    </visual>
    <collision>
      <origin rpy="0 0 0" xyz="0 0 0"/>
      <geometry>
        <box size=".02 .02 .002"/>
      </geometry>
    </collision>
    <inertial>
      <origin rpy="0 0 0" xyz="-0.01025 0.00046 0"/>
      <mass value="0.00276"/>
      <inertia ixx="0.00000004213" ixy="-0.00000001491" ixz="0" iyy="0.00000050258" iyz="0" izz="0.00000054007"/>
    </inertial>
  </link>
  <gazebo reference="l_finger_1_link_paramedian_hinge">
    <mu1>1.1</mu1>
    <mu2>1.1</mu2>
  </gazebo>
  <!-- Link median bar underactuated -->
  <link name="l_finger_1_link_median_bar_underactuated">
    <visual>
      <origin rpy="0 0 0" xyz="0.01905 0 0"/>
      <geometry>
        <box size="0.0381 .0075 .002"/>
      </geometry>
    </visual>
    <collision>
      <origin rpy="0 0 0" xyz="0.01905 0 0"/>
      <geometry>
        <box size="0.0381 .0075 .002"/>
      </geometry>
    </collision>
    <inertial>
      <origin rpy="0 0 0" xyz="0.01905 -0.00107 0"/>
      <mass value="0.00538"/>
      <inertia ixx="0.00000006639" ixy="-0.00000010996" ixz="-0.00000000094" iyy="0.00000305318" iyz="0" izz="0.00000304657"/>
    </inertial>
  </link>
  <gazebo reference="l_finger_1_link_median_bar_underactuated">
    <mu1>1.1</mu1>
    <mu2>1.1</mu2>
  </gazebo>
  <!-- Link paradistal hinge -->
  <link name="l_finger_1_link_paradistal_hinge">
    <visual>
      <origin rpy="0 0 0" xyz="0 0 0"/>
      <geometry>
        <box size=".02 .02 .002"/>
      </geometry>
    </visual>
    <collision>
      <origin rpy="0 0 0" xyz="0 0 0"/>
      <geometry>
        <box size=".02 0.02 .002"/>
      </geometry>
    </collision>
    <inertial>
      <origin rpy="0 0 0" xyz="0.00548 0 0"/>
      <mass value="0.00158"/>
      <inertia ixx="0.00000001907" ixy="0" ixz="0" iyy="0.00000010970" iyz="0" izz="0.00000012610"/>
    </inertial>
  </link>
  <gazebo reference="l_finger_1_link_paradistal_hinge">
    <mu1>1.1</mu1>
    <mu2>1.1</mu2>
  </gazebo>
  <!-- End of link list -->
  <!-- Joint list -->
  <!-- Joint proximal actuating hinge -->
  <joint name="l_finger_1_joint_proximal_actuating_hinge" type="revolute">
    <parent link="l_finger_1_link_0"/>
    <child link="l_finger_1_link_proximal_actuating_hinge"/>
    <axis xyz="0 0 1"/>
    <origin rpy="0 0 -2.0906" xyz="0 0 0.01"/>
    <limit effort="100" lower="-3.1416" upper="3.1416" velocity="100"/>
  </joint>
  <gazebo reference="l_finger_1_joint_proximal_actuating_hinge">
    <implicitSpringDamper>1</implicitSpringDamper>
  </gazebo>
  <!-- Joint paraproximal actuating hinge -->
  <joint name="l_finger_1_joint_paraproximal_actuating_hinge" type="revolute">
    <parent link="l_finger_1_link_0"/>
    <child link="l_finger_1_link_paraproximal_actuating_hinge"/>
    <axis xyz="0 0 1"/>
    <origin rpy="0 0 -2.0906" xyz="0 0 -0.01"/>
    <limit effort="100" lower="-3.1416" upper="3.1416" velocity="100"/>
  </joint>
  <gazebo reference="l_finger_1_joint_paraproximal_actuating_hinge">
    <implicitSpringDamper>1</implicitSpringDamper>
  </gazebo>
  <!-- Joint proximal actuating bar -->
  <joint name="l_finger_1_joint_proximal_actuating_bar" type="revolute">
    <parent link="l_finger_1_link_proximal_actuating_hinge"/>
    <child link="l_finger_1_link_proximal_actuating_bar"/>
    <axis xyz="0 0 1"/>
    <origin rpy="0 0 1.8616" xyz="0.02858 0 0"/>
    <limit effort="100" lower="-3.1416" upper="3.1416" velocity="100"/>
  </joint>
  <gazebo reference="l_finger_1_joint_proximal_actuating_bar">
    <implicitSpringDamper>1</implicitSpringDamper>
  </gazebo>
  <!-- Joint paraproximal bar -->
  <joint name="l_finger_1_joint_paraproximal_bar" type="revolute">
    <parent link="l_finger_1_link_paraproximal_actuating_hinge"/>
    <child link="l_finger_1_link_paraproximal_bar"/>
    <axis xyz="0 0 1"/>
    <origin rpy="0 0 1.57" xyz="0.02286 0 0"/>
    <limit effort="100" lower="-3.1416" upper="3.1416" velocity="100"/>
  </joint>
  <gazebo reference="l_finger_1_joint_paraproximal_bar">
    <implicitSpringDamper>1</implicitSpringDamper>
  </gazebo>
  <!-- Joint median actuating hinge -->
  <joint name="l_finger_1_joint_median_actuating_hinge" type="revolute">
    <parent link="l_finger_1_link_1"/>
    <child link="l_finger_1_link_median_actuating_hinge"/>
    <axis xyz="0 0 1"/>
    <origin rpy="0 0 -0.37" xyz="0 0.05715 0.01"/>
    <limit effort="100" lower="-3.1416" upper="3.1416" velocity="100"/>
  </joint>
  <gazebo reference="l_finger_1_joint_median_actuating_hinge">
    <implicitSpringDamper>1</implicitSpringDamper>
  </gazebo>
  <!-- Joint paramedian hinge -->
  <joint name="l_finger_1_joint_paramedian_hinge" type="revolute">
    <parent link="l_finger_1_link_1"/>
    <child link="l_finger_1_link_paramedian_hinge"/>
    <axis xyz="0 0 1"/>
    <!-- -0.37 is hand picked, 0.9719 is hand calculated from atan(0.02381/0.01625) -->
    <origin rpy="0 0 0" xyz="0 0.05715 -0.01"/>
    <limit effort="100" lower="-3.1416" upper="3.1416" velocity="100"/>
  </joint>
  <gazebo reference="l_finger_1_joint_paramedian_hinge">
    <implicitSpringDamper>1</implicitSpringDamper>
  </gazebo>
  <!-- Joint median actuating hinge median bar -->
  <joint name="l_finger_1_joint_median_actuating_hinge_median_bar" type="revolute">
    <parent link="l_finger_1_link_median_actuating_hinge"/>
    <child link="l_finger_1_link_median_bar"/>
    <axis xyz="0 0 1"/>
    <!-- hand calc 90 deg + atan(0.01516/0.01625) -->
    <origin rpy="0 0 2.3215" xyz="0.01625 0.01516 0"/>
    <limit effort="100" lower="-3.1416" upper="3.1416" velocity="100"/>
  </joint>
  <gazebo reference="l_finger_1_joint_median_actuating_hinge_median_bar">
    <implicitSpringDamper>1</implicitSpringDamper>
  </gazebo>
  <!-- Joint paradistal hinge -->
  <joint name="l_finger_1_joint_paradistal_hinge" type="revolute">
    <parent link="l_finger_1_link_2"/>
    <child link="l_finger_1_link_paradistal_hinge"/>
    <axis xyz="0 0 1"/>
    <origin rpy="0 0 0" xyz="0 0.039 -0.01"/>
    <limit effort="100" lower="-3.1416" upper="3.1416" velocity="100"/>
  </joint>
  <gazebo reference="l_finger_1_joint_paradistal_hinge">
    <implicitSpringDamper>1</implicitSpringDamper>
  </gazebo>
  <!-- Joint paramedian hinge median bar underactuated -->
  <joint name="l_finger_1_joint_paramedian_hinge_median_bar_underactuated" type="revolute">
    <parent link="l_finger_1_link_paramedian_hinge"/>
    <child link="l_finger_1_link_median_bar_underactuated"/>
    <axis xyz="0 0 1"/>
    <!-- hand calc 90 deg + atan(0.01227/0.00329) -->
    <origin rpy="0 0 1.5708" xyz="0.01227 0.00329 0"/>
    <limit effort="100" lower="-3.1416" upper="3.1416" velocity="100"/>
  </joint>
  <gazebo reference="l_finger_1_joint_paramedian_hinge_median_bar_underactuated">
    <implicitSpringDamper>1</implicitSpringDamper>
  </gazebo>
  <!-- Joint 1 -->
  <joint name="l_finger_1_joint_1" type="revolute">
    <origin rpy="0 0 -2.0906" xyz="0 0 0"/>
    <axis xyz="0 0 1"/>
    <parent link="l_finger_1_link_0"/>
    <child link="l_finger_1_link_1"/>
    <dynamics damping="1" friction="0"/>
    <!-- Limits: [0deg.,70deg.] -->
    <limit effort="60" lower="0" upper="1.2217" velocity="-1"/>
  </joint>
  <gazebo reference="l_finger_1_joint_1">
    <implicitSpringDamper>1</implicitSpringDamper>
  </gazebo>
  <!-- Joint 2 -->
  <joint name="l_finger_1_joint_2" type="revolute">
    <parent link="l_finger_1_link_1"/>
    <child link="l_finger_1_link_2"/>
    <dynamics damping="1" friction="0"/>
    <axis xyz="0 0 1"/>
    <origin rpy="0 0 0" xyz="0 0.05715 0"/>
    <!-- Limits: [0deg.,90deg.] -->
    <limit effort="60" lower="0" upper="1.5708" velocity="-1"/>
  </joint>
  <gazebo reference="l_finger_1_joint_2">
    <implicitSpringDamper>1</implicitSpringDamper>
  </gazebo>
  <!-- Joint 3 -->
  <joint name="l_finger_1_joint_3" type="revolute">
    <parent link="l_finger_1_link_2"/>
    <child link="l_finger_1_link_3"/>
    <dynamics damping="1" friction="0"/>
    <axis xyz="0 0 1"/>
    <origin rpy="0 0 2.0906" xyz="0 0.039 0"/>
    <!-- Limits: [-38deg.,60deg.] -->
    <limit effort="60" lower="-0.6632" upper="1.0471" velocity="-1"/>
  </joint>
  <gazebo reference="l_finger_1_joint_3">
    <implicitSpringDamper>1</implicitSpringDamper>
  </gazebo>
  <!-- end of joint list -->
  <!-- coupling joints in sdf -->
  <gazebo>
    <joint name="l_finger_1_link_proximal_actuating_bar_median_actuating_hinge_couple" type="revolute">
      <parent>l_finger_1_link_median_actuating_hinge</parent>
      <child>l_finger_1_link_proximal_actuating_bar</child>
      <pose>0.05398 0 0 0 0 0</pose>
      <axis>
        <dynamics>
          <damping>0</damping>
          <friction>0</friction>
        </dynamics>
        <xyz>0 0 1</xyz>
        <!-- <use_parent_model_frame>false</use_parent_model_frame> -->
      </axis>
    </joint>
  </gazebo>
  <gazebo reference="l_finger_1_link_proximal_actuating_bar_median_actuating_hinge_couple">
    <implicitSpringDamper>1</implicitSpringDamper>
  </gazebo>
  <gazebo>
    <joint name="l_finger_1_link_median_bar_link_3_couple" type="revolute">
      <parent>l_finger_1_link_3</parent>
      <child>l_finger_1_link_median_bar</child>
      <pose>0.0381 0 0 0 0 0</pose>
      <axis>
        <dynamics>
          <damping>0</damping>
          <friction>0</friction>
        </dynamics>
        <xyz>0 0 1</xyz>
        <!-- <use_parent_model_frame>false</use_parent_model_frame> -->
      </axis>
    </joint>
  </gazebo>
  <gazebo reference="l_finger_1_link_median_bar_link_3_couple">
    <implicitSpringDamper>1</implicitSpringDamper>
  </gazebo>
  <gazebo>
    <joint name="l_finger_1_link_paramedian_bar_paradistal_hinge_couple" type="revolute">
      <parent>l_finger_1_link_paradistal_hinge</parent>
      <child>l_finger_1_link_median_bar_underactuated</child>
      <pose>0.0381 0 0 0 0 0</pose>
      <axis>
        <dynamics>
          <damping>0</damping>
          <friction>0</friction>
        </dynamics>
        <xyz>0 0 1</xyz>
        <!-- <use_parent_model_frame>false</use_parent_model_frame> -->
      </axis>
    </joint>
  </gazebo>
  <gazebo reference="l_finger_1_link_median_bar_link_3_couple">
    <implicitSpringDamper>1</implicitSpringDamper>
  </gazebo>
  <gazebo>
    <joint name="l_finger_1_link_paradistal_hinge_link_3_couple" type="revolute">
      <parent>l_finger_1_link_paradistal_hinge</parent>
      <child>l_finger_1_link_3</child>
      <pose>0.0381 0 0 0 0 0</pose>
      <axis>
        <dynamics>
          <damping>0</damping>
          <friction>0</friction>
        </dynamics>
        <xyz>0 0 1</xyz>
        <!-- <use_parent_model_frame>false</use_parent_model_frame> -->
      </axis>
    </joint>
  </gazebo>
  <gazebo reference="l_finger_1_link_paradistal_hinge_link_3_couple">
    <implicitSpringDamper>1</implicitSpringDamper>
  </gazebo>
  <gazebo>
    <joint name="l_finger_1_link_paraproximal_bar_paramedian_hinge_couple" type="revolute">
      <parent>l_finger_1_link_paramedian_hinge</parent>
      <child>l_finger_1_link_paraproximal_bar</child>
      <pose>0.05770 0 0 0 0 0</pose>
      <axis>
        <dynamics>
          <damping>0</damping>
          <friction>0</friction>
        </dynamics>
        <xyz>0 0 1</xyz>
        <!-- <use_parent_model_frame>false</use_parent_model_frame> -->
      </axis>
    </joint>
  </gazebo>
  <gazebo reference="l_finger_1_link_paraproximal_bar_paramedian_hinge_couple">
    <implicitSpringDamper>1</implicitSpringDamper>
  </gazebo>
  <!-- Link list -->
  <!-- Link 0 -->
  <link name="l_finger_2_link_0">
    <visual>
      <origin rpy="0 0 0" xyz="0 0 0"/>
      <geometry>
        <mesh filename="package://robotiq_s_model_visualization/meshes/s-model_articulated/visual/link_0.STL"/>
      </geometry>
      <material name="green">
        <color rgba="0 1 0 1"/>
      </material>
    </visual>
    <collision>
      <origin rpy="0 0 0" xyz="0 0 0"/>
      <geometry>
        <mesh filename="package://robotiq_s_model_visualization/meshes/s-model_articulated/collision/link_0.STL"/>
      </geometry>
      <material name="yellow">
        <color rgba="0 1 1 1"/>
      </material>
    </collision>
    <inertial>
      <mass value="0.1"/>
      <origin xyz="-0.01 0 0"/>
      <inertia ixx="0.000018" ixy="0" ixz="0" iyy="0.000025" iyz="0" izz="0.000025"/>
    </inertial>
  </link>
  <gazebo reference="l_finger_2_link_0">
    <mu1>1.1</mu1>
    <mu2>1.1</mu2>
  </gazebo>
  <!-- Link 1 -->
  <link name="l_finger_2_link_1">
    <visual>
      <origin rpy="0 0 1.5708" xyz="0 0.05717 0"/>
      <geometry>
        <mesh filename="package://robotiq_s_model_visualization/meshes/s-model_articulated/visual/link_1.STL"/>
      </geometry>
      <material name="green"/>
    </visual>
    <collision>
      <origin rpy="0 0 1.5708" xyz="0 0.05717 0"/>
      <geometry>
        <mesh filename="package://robotiq_s_model_visualization/meshes/s-model_articulated/collision/link_1.STL"/>
      </geometry>
      <material name="yellow">
        <color rgba="0 1 1 1"/>
      </material>
    </collision>
    <inertial>
      <origin rpy="0 0 1.5708" xyz="0.00053 0.03218 0"/>
      <mass value="0.047"/>
      <inertia ixx="0.00000499332" ixy="0.00000091312" ixz="-0.00000000120" iyy="0.00006434531" iyz="-0.00000000007" izz="0.00006061917"/>
    </inertial>
  </link>
  <gazebo reference="l_finger_2_link_1">
    <mu1>1.1</mu1>
    <mu2>1.1</mu2>
  </gazebo>
  <!-- Link 2 -->
  <link name="l_finger_2_link_2">
    <visual>
      <origin rpy="0 0 1.5708" xyz="0 0.03810 0.0075"/>
      <geometry>
        <mesh filename="package://robotiq_s_model_visualization/meshes/s-model_articulated/visual/link_2.STL"/>
      </geometry>
      <material name="green"/>
    </visual>
    <collision>
      <origin rpy="0 0 1.5708" xyz="0 0.03810 0.0075"/>
      <geometry>
        <mesh filename="package://robotiq_s_model_visualization/meshes/s-model_articulated/collision/link_2.STL"/>
      </geometry>
      <material name="yellow"/>
    </collision>
    <inertial>
      <origin rpy="0 0 1.5708" xyz="0.00048 0.02167 0.00018"/>
      <mass value="0.03284"/>
      <inertia ixx="0.00000348008" ixy="0.00000031940" ixz="0.00000013041" iyy="0.00002248123" iyz="0.00000000291" izz="0.00001986346"/>
    </inertial>
  </link>
  <gazebo reference="l_finger_2_link_2">
    <mu1>1.1</mu1>
    <mu2>1.1</mu2>
  </gazebo>
  <!-- Link 3 -->
  <link name="l_finger_2_link_3">
    <visual>
      <origin rpy="0 0 0" xyz="0 0 0"/>
      <geometry>
        <mesh filename="package://robotiq_s_model_visualization/meshes/s-model_articulated/visual/link_3.STL"/>
      </geometry>
      <material name="green"/>
    </visual>
    <collision>
      <origin rpy="0 0 0" xyz="0 0 0"/>
      <geometry>
        <mesh filename="package://robotiq_s_model_visualization/meshes/s-model_articulated/collision/link_3.STL"/>
      </geometry>
      <material name="yellow"/>
    </collision>
    <inertial>
      <origin rpy="0 0 0" xyz="0.01626 0.00049 0.0002"/>
      <mass value="0.03354"/>
      <inertia ixx="0.00000305151" ixy="0.00000089792" ixz="0.00000000249" iyy="0.00001427978" iyz="-0.00000001191" izz="0.00001264126"/>
    </inertial>
  </link>
  <gazebo reference="l_finger_2_link_3">
    <mu1>1.1</mu1>
    <mu2>1.1</mu2>
  </gazebo>
  <!-- Link proximal actuating hinge -->
  <link name="l_finger_2_link_proximal_actuating_hinge">
    <visual>
      <origin rpy="0 0 0" xyz="0.01429 0 0"/>
      <geometry>
        <box size="0.02858 .0075 .002"/>
      </geometry>
    </visual>
    <collision>
      <origin rpy="0 0 0" xyz="0.01429 0 0"/>
      <geometry>
        <box size="0.02858 .0075 .002"/>
      </geometry>
    </collision>
    <inertial>
      <origin rpy="0 0 0" xyz="0.0012 -0.00162 -0.00161"/>
      <mass value="0.02647"/>
      <inertia ixx="0.00000156447" ixy="0.000000236226" ixz="-0.00000014862" iyy="0.00000221068" iyz="-0.00000014369" izz="0.00000323175"/>
    </inertial>
  </link>
  <gazebo reference="l_finger_2_link_proximal_actuating_hinge">
    <mu1>1.1</mu1>
    <mu2>1.1</mu2>
  </gazebo>
  <!-- Link paraproximal actuating hinge -->
  <link name="l_finger_2_link_paraproximal_actuating_hinge">
    <visual>
      <origin rpy="0 0 0" xyz="0.01143 0 0"/>
      <geometry>
        <box size="0.02286 .0075 .002"/>
      </geometry>
    </visual>
    <collision>
      <origin rpy="0 0 0" xyz="0.01143 0 0"/>
      <geometry>
        <box size="0.02286 .0075 .002"/>
      </geometry>
    </collision>
    <inertial>
      <origin rpy="0 0 0" xyz="0.0064 0 0"/>
      <!-- copied from proximal_actuating_hinge -->
      <mass value="0.00362"/>
      <inertia ixx="0.00000012043" ixy="0" ixz="0" iyy="0.00000053588" iyz="0" izz="0.00000065322"/>
    </inertial>
  </link>
  <gazebo reference="l_finger_2_link_paraproximal_actuating_hinge">
    <mu1>1.1</mu1>
    <mu2>1.1</mu2>
  </gazebo>
  <!-- Link proximal actuating bar -->
  <link name="l_finger_2_link_proximal_actuating_bar">
    <visual>
      <origin rpy="0 0 0" xyz="0.026789 0 0"/>
      <geometry>
        <box size="0.05398 .0075 .002"/>
      </geometry>
    </visual>
    <collision>
      <origin rpy="0 0 0" xyz="0.026789 0 0"/>
      <geometry>
        <box size="0.05398 .0075 .002"/>
      </geometry>
    </collision>
    <inertial>
      <origin rpy="0 0 0" xyz="0.02699 -0.00122 0"/>
      <mass value="0.00659"/>
      <inertia ixx="0.00000008348" ixy="-0.0000002179" ixz="0.00000000134" iyy="0.00000719076" iyz="0" izz="0.00000718272"/>
    </inertial>
  </link>
  <gazebo reference="l_finger_2_link_proximal_actuating_bar">
    <mu1>1.1</mu1>
    <mu2>1.1</mu2>
  </gazebo>
  <!-- Link paraproximal bar -->
  <link name="l_finger_2_link_paraproximal_bar">
    <visual>
      <origin rpy="0 0 0" xyz="0.02885 0 0"/>
      <geometry>
        <box size="0.05770 .0075 .002"/>
      </geometry>
    </visual>
    <collision>
      <origin rpy="0 0 0" xyz="0.02885 0 0"/>
      <geometry>
        <box size="0.05770 .0075 .002"/>
      </geometry>
    </collision>
    <inertial>
      <origin rpy="0 0 0" xyz="0.02858 -0.00129 0"/>
      <mass value="0.00732"/>
      <inertia ixx="0.00000009065" ixy="-0.00000027047" ixz="0.00000000142" iyy="0.00000878034" iyz="0" izz="0.00000877558"/>
    </inertial>
  </link>
  <gazebo reference="l_finger_2_link_paraproximal_bar">
    <mu1>1.1</mu1>
    <mu2>1.1</mu2>
  </gazebo>
  <!-- Link median actuating hinge -->
  <link name="l_finger_2_link_median_actuating_hinge">
    <visual>
      <origin rpy="0 0 0" xyz="0 0 0"/>
      <geometry>
        <box size=".02 .02 .002"/>
      </geometry>
    </visual>
    <collision>
      <origin rpy="0 0 0" xyz="0 0 0"/>
      <geometry>
        <box size=".02 .02 .002"/>
      </geometry>
    </collision>
    <inertial>
      <origin rpy="0 0 0" xyz="0.0092 0.00514 0"/>
      <mass value="0.00359"/>
      <inertia ixx="0.00000024735" ixy="0.00000023619" ixz="0" iyy="0.00000047681" iyz="0" izz="0.00000071813"/>
    </inertial>
  </link>
  <gazebo reference="l_finger_2_link_median_actuating_hinge">
    <mu1>1.1</mu1>
    <mu2>1.1</mu2>
  </gazebo>
  <!-- Link median bar -->
  <link name="l_finger_2_link_median_bar">
    <visual>
      <origin rpy="0 0 0" xyz="0.01905 0 0"/>
      <geometry>
        <box size="0.0381 .0075 .002"/>
      </geometry>
    </visual>
    <collision>
      <origin rpy="0 0 0" xyz="0.01905 0 0"/>
      <geometry>
        <box size="0.0381 .0075 .002"/>
      </geometry>
    </collision>
    <inertial>
      <origin rpy="0 0 0" xyz="0.01905 -0.00107 0"/>
      <mass value="0.00538"/>
      <inertia ixx="0.00000006639" ixy="-0.00000010996" ixz="0.00000000094" iyy="0.00000305318" iyz="0" izz="0.00000304657"/>
    </inertial>
  </link>
  <gazebo reference="l_finger_2_link_median_bar">
    <mu1>1.1</mu1>
    <mu2>1.1</mu2>
  </gazebo>
  <!-- Link paramedian hinge -->
  <link name="l_finger_2_link_paramedian_hinge">
    <visual>
      <origin rpy="0 0 0" xyz="0 0 0"/>
      <geometry>
        <box size=".02 .02 .002"/>
      </geometry>
    </visual>
    <collision>
      <origin rpy="0 0 0" xyz="0 0 0"/>
      <geometry>
        <box size=".02 .02 .002"/>
      </geometry>
    </collision>
    <inertial>
      <origin rpy="0 0 0" xyz="-0.01025 0.00046 0"/>
      <mass value="0.00276"/>
      <inertia ixx="0.00000004213" ixy="-0.00000001491" ixz="0" iyy="0.00000050258" iyz="0" izz="0.00000054007"/>
    </inertial>
  </link>
  <gazebo reference="l_finger_2_link_paramedian_hinge">
    <mu1>1.1</mu1>
    <mu2>1.1</mu2>
  </gazebo>
  <!-- Link median bar underactuated -->
  <link name="l_finger_2_link_median_bar_underactuated">
    <visual>
      <origin rpy="0 0 0" xyz="0.01905 0 0"/>
      <geometry>
        <box size="0.0381 .0075 .002"/>
      </geometry>
    </visual>
    <collision>
      <origin rpy="0 0 0" xyz="0.01905 0 0"/>
      <geometry>
        <box size="0.0381 .0075 .002"/>
      </geometry>
    </collision>
    <inertial>
      <origin rpy="0 0 0" xyz="0.01905 -0.00107 0"/>
      <mass value="0.00538"/>
      <inertia ixx="0.00000006639" ixy="-0.00000010996" ixz="-0.00000000094" iyy="0.00000305318" iyz="0" izz="0.00000304657"/>
    </inertial>
  </link>
  <gazebo reference="l_finger_2_link_median_bar_underactuated">
    <mu1>1.1</mu1>
    <mu2>1.1</mu2>
  </gazebo>
  <!-- Link paradistal hinge -->
  <link name="l_finger_2_link_paradistal_hinge">
    <visual>
      <origin rpy="0 0 0" xyz="0 0 0"/>
      <geometry>
        <box size=".02 .02 .002"/>
      </geometry>
    </visual>
    <collision>
      <origin rpy="0 0 0" xyz="0 0 0"/>
      <geometry>
        <box size=".02 0.02 .002"/>
      </geometry>
    </collision>
    <inertial>
      <origin rpy="0 0 0" xyz="0.00548 0 0"/>
      <mass value="0.00158"/>
      <inertia ixx="0.00000001907" ixy="0" ixz="0" iyy="0.00000010970" iyz="0" izz="0.00000012610"/>
    </inertial>
  </link>
  <gazebo reference="l_finger_2_link_paradistal_hinge">
    <mu1>1.1</mu1>
    <mu2>1.1</mu2>
  </gazebo>
  <!-- End of link list -->
  <!-- Joint list -->
  <!-- Joint proximal actuating hinge -->
  <joint name="l_finger_2_joint_proximal_actuating_hinge" type="revolute">
    <parent link="l_finger_2_link_0"/>
    <child link="l_finger_2_link_proximal_actuating_hinge"/>
    <axis xyz="0 0 1"/>
    <origin rpy="0 0 -2.0906" xyz="0 0 0.01"/>
    <limit effort="100" lower="-3.1416" upper="3.1416" velocity="100"/>
  </joint>
  <gazebo reference="l_finger_2_joint_proximal_actuating_hinge">
    <implicitSpringDamper>1</implicitSpringDamper>
  </gazebo>
  <!-- Joint paraproximal actuating hinge -->
  <joint name="l_finger_2_joint_paraproximal_actuating_hinge" type="revolute">
    <parent link="l_finger_2_link_0"/>
    <child link="l_finger_2_link_paraproximal_actuating_hinge"/>
    <axis xyz="0 0 1"/>
    <origin rpy="0 0 -2.0906" xyz="0 0 -0.01"/>
    <limit effort="100" lower="-3.1416" upper="3.1416" velocity="100"/>
  </joint>
  <gazebo reference="l_finger_2_joint_paraproximal_actuating_hinge">
    <implicitSpringDamper>1</implicitSpringDamper>
  </gazebo>
  <!-- Joint proximal actuating bar -->
  <joint name="l_finger_2_joint_proximal_actuating_bar" type="revolute">
    <parent link="l_finger_2_link_proximal_actuating_hinge"/>
    <child link="l_finger_2_link_proximal_actuating_bar"/>
    <axis xyz="0 0 1"/>
    <origin rpy="0 0 1.8616" xyz="0.02858 0 0"/>
    <limit effort="100" lower="-3.1416" upper="3.1416" velocity="100"/>
  </joint>
  <gazebo reference="l_finger_2_joint_proximal_actuating_bar">
    <implicitSpringDamper>1</implicitSpringDamper>
  </gazebo>
  <!-- Joint paraproximal bar -->
  <joint name="l_finger_2_joint_paraproximal_bar" type="revolute">
    <parent link="l_finger_2_link_paraproximal_actuating_hinge"/>
    <child link="l_finger_2_link_paraproximal_bar"/>
    <axis xyz="0 0 1"/>
    <origin rpy="0 0 1.57" xyz="0.02286 0 0"/>
    <limit effort="100" lower="-3.1416" upper="3.1416" velocity="100"/>
  </joint>
  <gazebo reference="l_finger_2_joint_paraproximal_bar">
    <implicitSpringDamper>1</implicitSpringDamper>
  </gazebo>
  <!-- Joint median actuating hinge -->
  <joint name="l_finger_2_joint_median_actuating_hinge" type="revolute">
    <parent link="l_finger_2_link_1"/>
    <child link="l_finger_2_link_median_actuating_hinge"/>
    <axis xyz="0 0 1"/>
    <origin rpy="0 0 -0.37" xyz="0 0.05715 0.01"/>
    <limit effort="100" lower="-3.1416" upper="3.1416" velocity="100"/>
  </joint>
  <gazebo reference="l_finger_2_joint_median_actuating_hinge">
    <implicitSpringDamper>1</implicitSpringDamper>
  </gazebo>
  <!-- Joint paramedian hinge -->
  <joint name="l_finger_2_joint_paramedian_hinge" type="revolute">
    <parent link="l_finger_2_link_1"/>
    <child link="l_finger_2_link_paramedian_hinge"/>
    <axis xyz="0 0 1"/>
    <!-- -0.37 is hand picked, 0.9719 is hand calculated from atan(0.02381/0.01625) -->
    <origin rpy="0 0 0" xyz="0 0.05715 -0.01"/>
    <limit effort="100" lower="-3.1416" upper="3.1416" velocity="100"/>
  </joint>
  <gazebo reference="l_finger_2_joint_paramedian_hinge">
    <implicitSpringDamper>1</implicitSpringDamper>
  </gazebo>
  <!-- Joint median actuating hinge median bar -->
  <joint name="l_finger_2_joint_median_actuating_hinge_median_bar" type="revolute">
    <parent link="l_finger_2_link_median_actuating_hinge"/>
    <child link="l_finger_2_link_median_bar"/>
    <axis xyz="0 0 1"/>
    <!-- hand calc 90 deg + atan(0.01516/0.01625) -->
    <origin rpy="0 0 2.3215" xyz="0.01625 0.01516 0"/>
    <limit effort="100" lower="-3.1416" upper="3.1416" velocity="100"/>
  </joint>
  <gazebo reference="l_finger_2_joint_median_actuating_hinge_median_bar">
    <implicitSpringDamper>1</implicitSpringDamper>
  </gazebo>
  <!-- Joint paradistal hinge -->
  <joint name="l_finger_2_joint_paradistal_hinge" type="revolute">
    <parent link="l_finger_2_link_2"/>
    <child link="l_finger_2_link_paradistal_hinge"/>
    <axis xyz="0 0 1"/>
    <origin rpy="0 0 0" xyz="0 0.039 -0.01"/>
    <limit effort="100" lower="-3.1416" upper="3.1416" velocity="100"/>
  </joint>
  <gazebo reference="l_finger_2_joint_paradistal_hinge">
    <implicitSpringDamper>1</implicitSpringDamper>
  </gazebo>
  <!-- Joint paramedian hinge median bar underactuated -->
  <joint name="l_finger_2_joint_paramedian_hinge_median_bar_underactuated" type="revolute">
    <parent link="l_finger_2_link_paramedian_hinge"/>
    <child link="l_finger_2_link_median_bar_underactuated"/>
    <axis xyz="0 0 1"/>
    <!-- hand calc 90 deg + atan(0.01227/0.00329) -->
    <origin rpy="0 0 1.5708" xyz="0.01227 0.00329 0"/>
    <limit effort="100" lower="-3.1416" upper="3.1416" velocity="100"/>
  </joint>
  <gazebo reference="l_finger_2_joint_paramedian_hinge_median_bar_underactuated">
    <implicitSpringDamper>1</implicitSpringDamper>
  </gazebo>
  <!-- Joint 1 -->
  <joint name="l_finger_2_joint_1" type="revolute">
    <origin rpy="0 0 -2.0906" xyz="0 0 0"/>
    <axis xyz="0 0 1"/>
    <parent link="l_finger_2_link_0"/>
    <child link="l_finger_2_link_1"/>
    <dynamics damping="1" friction="0"/>
    <!-- Limits: [0deg.,70deg.] -->
    <limit effort="60" lower="0" upper="1.2217" velocity="-1"/>
  </joint>
  <gazebo reference="l_finger_2_joint_1">
    <implicitSpringDamper>1</implicitSpringDamper>
  </gazebo>
  <!-- Joint 2 -->
  <joint name="l_finger_2_joint_2" type="revolute">
    <parent link="l_finger_2_link_1"/>
    <child link="l_finger_2_link_2"/>
    <dynamics damping="1" friction="0"/>
    <axis xyz="0 0 1"/>
    <origin rpy="0 0 0" xyz="0 0.05715 0"/>
    <!-- Limits: [0deg.,90deg.] -->
    <limit effort="60" lower="0" upper="1.5708" velocity="-1"/>
  </joint>
  <gazebo reference="l_finger_2_joint_2">
    <implicitSpringDamper>1</implicitSpringDamper>
  </gazebo>
  <!-- Joint 3 -->
  <joint name="l_finger_2_joint_3" type="revolute">
    <parent link="l_finger_2_link_2"/>
    <child link="l_finger_2_link_3"/>
    <dynamics damping="1" friction="0"/>
    <axis xyz="0 0 1"/>
    <origin rpy="0 0 2.0906" xyz="0 0.039 0"/>
    <!-- Limits: [-38deg.,60deg.] -->
    <limit effort="60" lower="-0.6632" upper="1.0471" velocity="-1"/>
  </joint>
  <gazebo reference="l_finger_2_joint_3">
    <implicitSpringDamper>1</implicitSpringDamper>
  </gazebo>
  <!-- end of joint list -->
  <!-- coupling joints in sdf -->
  <gazebo>
    <joint name="l_finger_2_link_proximal_actuating_bar_median_actuating_hinge_couple" type="revolute">
      <parent>l_finger_2_link_median_actuating_hinge</parent>
      <child>l_finger_2_link_proximal_actuating_bar</child>
      <pose>0.05398 0 0 0 0 0</pose>
      <axis>
        <dynamics>
          <damping>0</damping>
          <friction>0</friction>
        </dynamics>
        <xyz>0 0 1</xyz>
        <!-- <use_parent_model_frame>false</use_parent_model_frame> -->
      </axis>
    </joint>
  </gazebo>
  <gazebo reference="l_finger_2_link_proximal_actuating_bar_median_actuating_hinge_couple">
    <implicitSpringDamper>1</implicitSpringDamper>
  </gazebo>
  <gazebo>
    <joint name="l_finger_2_link_median_bar_link_3_couple" type="revolute">
      <parent>l_finger_2_link_3</parent>
      <child>l_finger_2_link_median_bar</child>
      <pose>0.0381 0 0 0 0 0</pose>
      <axis>
        <dynamics>
          <damping>0</damping>
          <friction>0</friction>
        </dynamics>
        <xyz>0 0 1</xyz>
        <!-- <use_parent_model_frame>false</use_parent_model_frame> -->
      </axis>
    </joint>
  </gazebo>
  <gazebo reference="l_finger_2_link_median_bar_link_3_couple">
    <implicitSpringDamper>1</implicitSpringDamper>
  </gazebo>
  <gazebo>
    <joint name="l_finger_2_link_paramedian_bar_paradistal_hinge_couple" type="revolute">
      <parent>l_finger_2_link_paradistal_hinge</parent>
      <child>l_finger_2_link_median_bar_underactuated</child>
      <pose>0.0381 0 0 0 0 0</pose>
      <axis>
        <dynamics>
          <damping>0</damping>
          <friction>0</friction>
        </dynamics>
        <xyz>0 0 1</xyz>
        <!-- <use_parent_model_frame>false</use_parent_model_frame> -->
      </axis>
    </joint>
  </gazebo>
  <gazebo reference="l_finger_2_link_median_bar_link_3_couple">
    <implicitSpringDamper>1</implicitSpringDamper>
  </gazebo>
  <gazebo>
    <joint name="l_finger_2_link_paradistal_hinge_link_3_couple" type="revolute">
      <parent>l_finger_2_link_paradistal_hinge</parent>
      <child>l_finger_2_link_3</child>
      <pose>0.0381 0 0 0 0 0</pose>
      <axis>
        <dynamics>
          <damping>0</damping>
          <friction>0</friction>
        </dynamics>
        <xyz>0 0 1</xyz>
        <!-- <use_parent_model_frame>false</use_parent_model_frame> -->
      </axis>
    </joint>
  </gazebo>
  <gazebo reference="l_finger_2_link_paradistal_hinge_link_3_couple">
    <implicitSpringDamper>1</implicitSpringDamper>
  </gazebo>
  <gazebo>
    <joint name="l_finger_2_link_paraproximal_bar_paramedian_hinge_couple" type="revolute">
      <parent>l_finger_2_link_paramedian_hinge</parent>
      <child>l_finger_2_link_paraproximal_bar</child>
      <pose>0.05770 0 0 0 0 0</pose>
      <axis>
        <dynamics>
          <damping>0</damping>
          <friction>0</friction>
        </dynamics>
        <xyz>0 0 1</xyz>
        <!-- <use_parent_model_frame>false</use_parent_model_frame> -->
      </axis>
    </joint>
  </gazebo>
  <gazebo reference="l_finger_2_link_paraproximal_bar_paramedian_hinge_couple">
    <implicitSpringDamper>1</implicitSpringDamper>
  </gazebo>
  <!-- Link list -->
  <!-- Link 0 -->
  <link name="l_finger_middle_link_0">
    <visual>
      <origin rpy="0 0 0" xyz="0 0 0"/>
      <geometry>
        <mesh filename="package://robotiq_s_model_visualization/meshes/s-model_articulated/visual/link_0.STL"/>
      </geometry>
      <material name="green">
        <color rgba="0 1 0 1"/>
      </material>
    </visual>
    <collision>
      <origin rpy="0 0 0" xyz="0 0 0"/>
      <geometry>
        <mesh filename="package://robotiq_s_model_visualization/meshes/s-model_articulated/collision/link_0.STL"/>
      </geometry>
      <material name="yellow">
        <color rgba="0 1 1 1"/>
      </material>
    </collision>
    <inertial>
      <mass value="0.1"/>
      <origin xyz="-0.01 0 0"/>
      <inertia ixx="0.000018" ixy="0" ixz="0" iyy="0.000025" iyz="0" izz="0.000025"/>
    </inertial>
  </link>
  <gazebo reference="l_finger_middle_link_0">
    <mu1>1.1</mu1>
    <mu2>1.1</mu2>
  </gazebo>
  <!-- Link 1 -->
  <link name="l_finger_middle_link_1">
    <visual>
      <origin rpy="0 0 1.5708" xyz="0 0.05717 0"/>
      <geometry>
        <mesh filename="package://robotiq_s_model_visualization/meshes/s-model_articulated/visual/link_1.STL"/>
      </geometry>
      <material name="green"/>
    </visual>
    <collision>
      <origin rpy="0 0 1.5708" xyz="0 0.05717 0"/>
      <geometry>
        <mesh filename="package://robotiq_s_model_visualization/meshes/s-model_articulated/collision/link_1.STL"/>
      </geometry>
      <material name="yellow">
        <color rgba="0 1 1 1"/>
      </material>
    </collision>
    <inertial>
      <origin rpy="0 0 1.5708" xyz="0.00053 0.03218 0"/>
      <mass value="0.047"/>
      <inertia ixx="0.00000499332" ixy="0.00000091312" ixz="-0.00000000120" iyy="0.00006434531" iyz="-0.00000000007" izz="0.00006061917"/>
    </inertial>
  </link>
  <gazebo reference="l_finger_middle_link_1">
    <mu1>1.1</mu1>
    <mu2>1.1</mu2>
  </gazebo>
  <!-- Link 2 -->
  <link name="l_finger_middle_link_2">
    <visual>
      <origin rpy="0 0 1.5708" xyz="0 0.03810 0.0075"/>
      <geometry>
        <mesh filename="package://robotiq_s_model_visualization/meshes/s-model_articulated/visual/link_2.STL"/>
      </geometry>
      <material name="green"/>
    </visual>
    <collision>
      <origin rpy="0 0 1.5708" xyz="0 0.03810 0.0075"/>
      <geometry>
        <mesh filename="package://robotiq_s_model_visualization/meshes/s-model_articulated/collision/link_2.STL"/>
      </geometry>
      <material name="yellow"/>
    </collision>
    <inertial>
      <origin rpy="0 0 1.5708" xyz="0.00048 0.02167 0.00018"/>
      <mass value="0.03284"/>
      <inertia ixx="0.00000348008" ixy="0.00000031940" ixz="0.00000013041" iyy="0.00002248123" iyz="0.00000000291" izz="0.00001986346"/>
    </inertial>
  </link>
  <gazebo reference="l_finger_middle_link_2">
    <mu1>1.1</mu1>
    <mu2>1.1</mu2>
  </gazebo>
  <!-- Link 3 -->
  <link name="l_finger_middle_link_3">
    <visual>
      <origin rpy="0 0 0" xyz="0 0 0"/>
      <geometry>
        <mesh filename="package://robotiq_s_model_visualization/meshes/s-model_articulated/visual/link_3.STL"/>
      </geometry>
      <material name="green"/>
    </visual>
    <collision>
      <origin rpy="0 0 0" xyz="0 0 0"/>
      <geometry>
        <mesh filename="package://robotiq_s_model_visualization/meshes/s-model_articulated/collision/link_3.STL"/>
      </geometry>
      <material name="yellow"/>
    </collision>
    <inertial>
      <origin rpy="0 0 0" xyz="0.01626 0.00049 0.0002"/>
      <mass value="0.03354"/>
      <inertia ixx="0.00000305151" ixy="0.00000089792" ixz="0.00000000249" iyy="0.00001427978" iyz="-0.00000001191" izz="0.00001264126"/>
    </inertial>
  </link>
  <gazebo reference="l_finger_middle_link_3">
    <mu1>1.1</mu1>
    <mu2>1.1</mu2>
  </gazebo>
  <!-- Link proximal actuating hinge -->
  <link name="l_finger_middle_link_proximal_actuating_hinge">
    <visual>
      <origin rpy="0 0 0" xyz="0.01429 0 0"/>
      <geometry>
        <box size="0.02858 .0075 .002"/>
      </geometry>
    </visual>
    <collision>
      <origin rpy="0 0 0" xyz="0.01429 0 0"/>
      <geometry>
        <box size="0.02858 .0075 .002"/>
      </geometry>
    </collision>
    <inertial>
      <origin rpy="0 0 0" xyz="0.0012 -0.00162 -0.00161"/>
      <mass value="0.02647"/>
      <inertia ixx="0.00000156447" ixy="0.000000236226" ixz="-0.00000014862" iyy="0.00000221068" iyz="-0.00000014369" izz="0.00000323175"/>
    </inertial>
  </link>
  <gazebo reference="l_finger_middle_link_proximal_actuating_hinge">
    <mu1>1.1</mu1>
    <mu2>1.1</mu2>
  </gazebo>
  <!-- Link paraproximal actuating hinge -->
  <link name="l_finger_middle_link_paraproximal_actuating_hinge">
    <visual>
      <origin rpy="0 0 0" xyz="0.01143 0 0"/>
      <geometry>
        <box size="0.02286 .0075 .002"/>
      </geometry>
    </visual>
    <collision>
      <origin rpy="0 0 0" xyz="0.01143 0 0"/>
      <geometry>
        <box size="0.02286 .0075 .002"/>
      </geometry>
    </collision>
    <inertial>
      <origin rpy="0 0 0" xyz="0.0064 0 0"/>
      <!-- copied from proximal_actuating_hinge -->
      <mass value="0.00362"/>
      <inertia ixx="0.00000012043" ixy="0" ixz="0" iyy="0.00000053588" iyz="0" izz="0.00000065322"/>
    </inertial>
  </link>
  <gazebo reference="l_finger_middle_link_paraproximal_actuating_hinge">
    <mu1>1.1</mu1>
    <mu2>1.1</mu2>
  </gazebo>
  <!-- Link proximal actuating bar -->
  <link name="l_finger_middle_link_proximal_actuating_bar">
    <visual>
      <origin rpy="0 0 0" xyz="0.026789 0 0"/>
      <geometry>
        <box size="0.05398 .0075 .002"/>
      </geometry>
    </visual>
    <collision>
      <origin rpy="0 0 0" xyz="0.026789 0 0"/>
      <geometry>
        <box size="0.05398 .0075 .002"/>
      </geometry>
    </collision>
    <inertial>
      <origin rpy="0 0 0" xyz="0.02699 -0.00122 0"/>
      <mass value="0.00659"/>
      <inertia ixx="0.00000008348" ixy="-0.0000002179" ixz="0.00000000134" iyy="0.00000719076" iyz="0" izz="0.00000718272"/>
    </inertial>
  </link>
  <gazebo reference="l_finger_middle_link_proximal_actuating_bar">
    <mu1>1.1</mu1>
    <mu2>1.1</mu2>
  </gazebo>
  <!-- Link paraproximal bar -->
  <link name="l_finger_middle_link_paraproximal_bar">
    <visual>
      <origin rpy="0 0 0" xyz="0.02885 0 0"/>
      <geometry>
        <box size="0.05770 .0075 .002"/>
      </geometry>
    </visual>
    <collision>
      <origin rpy="0 0 0" xyz="0.02885 0 0"/>
      <geometry>
        <box size="0.05770 .0075 .002"/>
      </geometry>
    </collision>
    <inertial>
      <origin rpy="0 0 0" xyz="0.02858 -0.00129 0"/>
      <mass value="0.00732"/>
      <inertia ixx="0.00000009065" ixy="-0.00000027047" ixz="0.00000000142" iyy="0.00000878034" iyz="0" izz="0.00000877558"/>
    </inertial>
  </link>
  <gazebo reference="l_finger_middle_link_paraproximal_bar">
    <mu1>1.1</mu1>
    <mu2>1.1</mu2>
  </gazebo>
  <!-- Link median actuating hinge -->
  <link name="l_finger_middle_link_median_actuating_hinge">
    <visual>
      <origin rpy="0 0 0" xyz="0 0 0"/>
      <geometry>
        <box size=".02 .02 .002"/>
      </geometry>
    </visual>
    <collision>
      <origin rpy="0 0 0" xyz="0 0 0"/>
      <geometry>
        <box size=".02 .02 .002"/>
      </geometry>
    </collision>
    <inertial>
      <origin rpy="0 0 0" xyz="0.0092 0.00514 0"/>
      <mass value="0.00359"/>
      <inertia ixx="0.00000024735" ixy="0.00000023619" ixz="0" iyy="0.00000047681" iyz="0" izz="0.00000071813"/>
    </inertial>
  </link>
  <gazebo reference="l_finger_middle_link_median_actuating_hinge">
    <mu1>1.1</mu1>
    <mu2>1.1</mu2>
  </gazebo>
  <!-- Link median bar -->
  <link name="l_finger_middle_link_median_bar">
    <visual>
      <origin rpy="0 0 0" xyz="0.01905 0 0"/>
      <geometry>
        <box size="0.0381 .0075 .002"/>
      </geometry>
    </visual>
    <collision>
      <origin rpy="0 0 0" xyz="0.01905 0 0"/>
      <geometry>
        <box size="0.0381 .0075 .002"/>
      </geometry>
    </collision>
    <inertial>
      <origin rpy="0 0 0" xyz="0.01905 -0.00107 0"/>
      <mass value="0.00538"/>
      <inertia ixx="0.00000006639" ixy="-0.00000010996" ixz="0.00000000094" iyy="0.00000305318" iyz="0" izz="0.00000304657"/>
    </inertial>
  </link>
  <gazebo reference="l_finger_middle_link_median_bar">
    <mu1>1.1</mu1>
    <mu2>1.1</mu2>
  </gazebo>
  <!-- Link paramedian hinge -->
  <link name="l_finger_middle_link_paramedian_hinge">
    <visual>
      <origin rpy="0 0 0" xyz="0 0 0"/>
      <geometry>
        <box size=".02 .02 .002"/>
      </geometry>
    </visual>
    <collision>
      <origin rpy="0 0 0" xyz="0 0 0"/>
      <geometry>
        <box size=".02 .02 .002"/>
      </geometry>
    </collision>
    <inertial>
      <origin rpy="0 0 0" xyz="-0.01025 0.00046 0"/>
      <mass value="0.00276"/>
      <inertia ixx="0.00000004213" ixy="-0.00000001491" ixz="0" iyy="0.00000050258" iyz="0" izz="0.00000054007"/>
    </inertial>
  </link>
  <gazebo reference="l_finger_middle_link_paramedian_hinge">
    <mu1>1.1</mu1>
    <mu2>1.1</mu2>
  </gazebo>
  <!-- Link median bar underactuated -->
  <link name="l_finger_middle_link_median_bar_underactuated">
    <visual>
      <origin rpy="0 0 0" xyz="0.01905 0 0"/>
      <geometry>
        <box size="0.0381 .0075 .002"/>
      </geometry>
    </visual>
    <collision>
      <origin rpy="0 0 0" xyz="0.01905 0 0"/>
      <geometry>
        <box size="0.0381 .0075 .002"/>
      </geometry>
    </collision>
    <inertial>
      <origin rpy="0 0 0" xyz="0.01905 -0.00107 0"/>
      <mass value="0.00538"/>
      <inertia ixx="0.00000006639" ixy="-0.00000010996" ixz="-0.00000000094" iyy="0.00000305318" iyz="0" izz="0.00000304657"/>
    </inertial>
  </link>
  <gazebo reference="l_finger_middle_link_median_bar_underactuated">
    <mu1>1.1</mu1>
    <mu2>1.1</mu2>
  </gazebo>
  <!-- Link paradistal hinge -->
  <link name="l_finger_middle_link_paradistal_hinge">
    <visual>
      <origin rpy="0 0 0" xyz="0 0 0"/>
      <geometry>
        <box size=".02 .02 .002"/>
      </geometry>
    </visual>
    <collision>
      <origin rpy="0 0 0" xyz="0 0 0"/>
      <geometry>
        <box size=".02 0.02 .002"/>
      </geometry>
    </collision>
    <inertial>
      <origin rpy="0 0 0" xyz="0.00548 0 0"/>
      <mass value="0.00158"/>
      <inertia ixx="0.00000001907" ixy="0" ixz="0" iyy="0.00000010970" iyz="0" izz="0.00000012610"/>
    </inertial>
  </link>
  <gazebo reference="l_finger_middle_link_paradistal_hinge">
    <mu1>1.1</mu1>
    <mu2>1.1</mu2>
  </gazebo>
  <!-- End of link list -->
  <!-- Joint list -->
  <!-- Joint proximal actuating hinge -->
  <joint name="l_finger_middle_joint_proximal_actuating_hinge" type="revolute">
    <parent link="l_finger_middle_link_0"/>
    <child link="l_finger_middle_link_proximal_actuating_hinge"/>
    <axis xyz="0 0 1"/>
    <origin rpy="0 0 -2.0906" xyz="0 0 0.01"/>
    <limit effort="100" lower="-3.1416" upper="3.1416" velocity="100"/>
  </joint>
  <gazebo reference="l_finger_middle_joint_proximal_actuating_hinge">
    <implicitSpringDamper>1</implicitSpringDamper>
  </gazebo>
  <!-- Joint paraproximal actuating hinge -->
  <joint name="l_finger_middle_joint_paraproximal_actuating_hinge" type="revolute">
    <parent link="l_finger_middle_link_0"/>
    <child link="l_finger_middle_link_paraproximal_actuating_hinge"/>
    <axis xyz="0 0 1"/>
    <origin rpy="0 0 -2.0906" xyz="0 0 -0.01"/>
    <limit effort="100" lower="-3.1416" upper="3.1416" velocity="100"/>
  </joint>
  <gazebo reference="l_finger_middle_joint_paraproximal_actuating_hinge">
    <implicitSpringDamper>1</implicitSpringDamper>
  </gazebo>
  <!-- Joint proximal actuating bar -->
  <joint name="l_finger_middle_joint_proximal_actuating_bar" type="revolute">
    <parent link="l_finger_middle_link_proximal_actuating_hinge"/>
    <child link="l_finger_middle_link_proximal_actuating_bar"/>
    <axis xyz="0 0 1"/>
    <origin rpy="0 0 1.8616" xyz="0.02858 0 0"/>
    <limit effort="100" lower="-3.1416" upper="3.1416" velocity="100"/>
  </joint>
  <gazebo reference="l_finger_middle_joint_proximal_actuating_bar">
    <implicitSpringDamper>1</implicitSpringDamper>
  </gazebo>
  <!-- Joint paraproximal bar -->
  <joint name="l_finger_middle_joint_paraproximal_bar" type="revolute">
    <parent link="l_finger_middle_link_paraproximal_actuating_hinge"/>
    <child link="l_finger_middle_link_paraproximal_bar"/>
    <axis xyz="0 0 1"/>
    <origin rpy="0 0 1.57" xyz="0.02286 0 0"/>
    <limit effort="100" lower="-3.1416" upper="3.1416" velocity="100"/>
  </joint>
  <gazebo reference="l_finger_middle_joint_paraproximal_bar">
    <implicitSpringDamper>1</implicitSpringDamper>
  </gazebo>
  <!-- Joint median actuating hinge -->
  <joint name="l_finger_middle_joint_median_actuating_hinge" type="revolute">
    <parent link="l_finger_middle_link_1"/>
    <child link="l_finger_middle_link_median_actuating_hinge"/>
    <axis xyz="0 0 1"/>
    <origin rpy="0 0 -0.37" xyz="0 0.05715 0.01"/>
    <limit effort="100" lower="-3.1416" upper="3.1416" velocity="100"/>
  </joint>
  <gazebo reference="l_finger_middle_joint_median_actuating_hinge">
    <implicitSpringDamper>1</implicitSpringDamper>
  </gazebo>
  <!-- Joint paramedian hinge -->
  <joint name="l_finger_middle_joint_paramedian_hinge" type="revolute">
    <parent link="l_finger_middle_link_1"/>
    <child link="l_finger_middle_link_paramedian_hinge"/>
    <axis xyz="0 0 1"/>
    <!-- -0.37 is hand picked, 0.9719 is hand calculated from atan(0.02381/0.01625) -->
    <origin rpy="0 0 0" xyz="0 0.05715 -0.01"/>
    <limit effort="100" lower="-3.1416" upper="3.1416" velocity="100"/>
  </joint>
  <gazebo reference="l_finger_middle_joint_paramedian_hinge">
    <implicitSpringDamper>1</implicitSpringDamper>
  </gazebo>
  <!-- Joint median actuating hinge median bar -->
  <joint name="l_finger_middle_joint_median_actuating_hinge_median_bar" type="revolute">
    <parent link="l_finger_middle_link_median_actuating_hinge"/>
    <child link="l_finger_middle_link_median_bar"/>
    <axis xyz="0 0 1"/>
    <!-- hand calc 90 deg + atan(0.01516/0.01625) -->
    <origin rpy="0 0 2.3215" xyz="0.01625 0.01516 0"/>
    <limit effort="100" lower="-3.1416" upper="3.1416" velocity="100"/>
  </joint>
  <gazebo reference="l_finger_middle_joint_median_actuating_hinge_median_bar">
    <implicitSpringDamper>1</implicitSpringDamper>
  </gazebo>
  <!-- Joint paradistal hinge -->
  <joint name="l_finger_middle_joint_paradistal_hinge" type="revolute">
    <parent link="l_finger_middle_link_2"/>
    <child link="l_finger_middle_link_paradistal_hinge"/>
    <axis xyz="0 0 1"/>
    <origin rpy="0 0 0" xyz="0 0.039 -0.01"/>
    <limit effort="100" lower="-3.1416" upper="3.1416" velocity="100"/>
  </joint>
  <gazebo reference="l_finger_middle_joint_paradistal_hinge">
    <implicitSpringDamper>1</implicitSpringDamper>
  </gazebo>
  <!-- Joint paramedian hinge median bar underactuated -->
  <joint name="l_finger_middle_joint_paramedian_hinge_median_bar_underactuated" type="revolute">
    <parent link="l_finger_middle_link_paramedian_hinge"/>
    <child link="l_finger_middle_link_median_bar_underactuated"/>
    <axis xyz="0 0 1"/>
    <!-- hand calc 90 deg + atan(0.01227/0.00329) -->
    <origin rpy="0 0 1.5708" xyz="0.01227 0.00329 0"/>
    <limit effort="100" lower="-3.1416" upper="3.1416" velocity="100"/>
  </joint>
  <gazebo reference="l_finger_middle_joint_paramedian_hinge_median_bar_underactuated">
    <implicitSpringDamper>1</implicitSpringDamper>
  </gazebo>
  <!-- Joint 1 -->
  <joint name="l_finger_middle_joint_1" type="revolute">
    <origin rpy="0 0 -2.0906" xyz="0 0 0"/>
    <axis xyz="0 0 1"/>
    <parent link="l_finger_middle_link_0"/>
    <child link="l_finger_middle_link_1"/>
    <dynamics damping="1" friction="0"/>
    <!-- Limits: [0deg.,70deg.] -->
    <limit effort="60" lower="0" upper="1.2217" velocity="-1"/>
  </joint>
  <gazebo reference="l_finger_middle_joint_1">
    <implicitSpringDamper>1</implicitSpringDamper>
  </gazebo>
  <!-- Joint 2 -->
  <joint name="l_finger_middle_joint_2" type="revolute">
    <parent link="l_finger_middle_link_1"/>
    <child link="l_finger_middle_link_2"/>
    <dynamics damping="1" friction="0"/>
    <axis xyz="0 0 1"/>
    <origin rpy="0 0 0" xyz="0 0.05715 0"/>
    <!-- Limits: [0deg.,90deg.] -->
    <limit effort="60" lower="0" upper="1.5708" velocity="-1"/>
  </joint>
  <gazebo reference="l_finger_middle_joint_2">
    <implicitSpringDamper>1</implicitSpringDamper>
  </gazebo>
  <!-- Joint 3 -->
  <joint name="l_finger_middle_joint_3" type="revolute">
    <parent link="l_finger_middle_link_2"/>
    <child link="l_finger_middle_link_3"/>
    <dynamics damping="1" friction="0"/>
    <axis xyz="0 0 1"/>
    <origin rpy="0 0 2.0906" xyz="0 0.039 0"/>
    <!-- Limits: [-38deg.,60deg.] -->
    <limit effort="60" lower="-0.6632" upper="1.0471" velocity="-1"/>
  </joint>
  <gazebo reference="l_finger_middle_joint_3">
    <implicitSpringDamper>1</implicitSpringDamper>
  </gazebo>
  <!-- end of joint list -->
  <!-- coupling joints in sdf -->
  <gazebo>
    <joint name="l_finger_middle_link_proximal_actuating_bar_median_actuating_hinge_couple" type="revolute">
      <parent>l_finger_middle_link_median_actuating_hinge</parent>
      <child>l_finger_middle_link_proximal_actuating_bar</child>
      <pose>0.05398 0 0 0 0 0</pose>
      <axis>
        <dynamics>
          <damping>0</damping>
          <friction>0</friction>
        </dynamics>
        <xyz>0 0 1</xyz>
        <!-- <use_parent_model_frame>false</use_parent_model_frame> -->
      </axis>
    </joint>
  </gazebo>
  <gazebo reference="l_finger_middle_link_proximal_actuating_bar_median_actuating_hinge_couple">
    <implicitSpringDamper>1</implicitSpringDamper>
  </gazebo>
  <gazebo>
    <joint name="l_finger_middle_link_median_bar_link_3_couple" type="revolute">
      <parent>l_finger_middle_link_3</parent>
      <child>l_finger_middle_link_median_bar</child>
      <pose>0.0381 0 0 0 0 0</pose>
      <axis>
        <dynamics>
          <damping>0</damping>
          <friction>0</friction>
        </dynamics>
        <xyz>0 0 1</xyz>
        <!-- <use_parent_model_frame>false</use_parent_model_frame> -->
      </axis>
    </joint>
  </gazebo>
  <gazebo reference="l_finger_middle_link_median_bar_link_3_couple">
    <implicitSpringDamper>1</implicitSpringDamper>
  </gazebo>
  <gazebo>
    <joint name="l_finger_middle_link_paramedian_bar_paradistal_hinge_couple" type="revolute">
      <parent>l_finger_middle_link_paradistal_hinge</parent>
      <child>l_finger_middle_link_median_bar_underactuated</child>
      <pose>0.0381 0 0 0 0 0</pose>
      <axis>
        <dynamics>
          <damping>0</damping>
          <friction>0</friction>
        </dynamics>
        <xyz>0 0 1</xyz>
        <!-- <use_parent_model_frame>false</use_parent_model_frame> -->
      </axis>
    </joint>
  </gazebo>
  <gazebo reference="l_finger_middle_link_median_bar_link_3_couple">
    <implicitSpringDamper>1</implicitSpringDamper>
  </gazebo>
  <gazebo>
    <joint name="l_finger_middle_link_paradistal_hinge_link_3_couple" type="revolute">
      <parent>l_finger_middle_link_paradistal_hinge</parent>
      <child>l_finger_middle_link_3</child>
      <pose>0.0381 0 0 0 0 0</pose>
      <axis>
        <dynamics>
          <damping>0</damping>
          <friction>0</friction>
        </dynamics>
        <xyz>0 0 1</xyz>
        <!-- <use_parent_model_frame>false</use_parent_model_frame> -->
      </axis>
    </joint>
  </gazebo>
  <gazebo reference="l_finger_middle_link_paradistal_hinge_link_3_couple">
    <implicitSpringDamper>1</implicitSpringDamper>
  </gazebo>
  <gazebo>
    <joint name="l_finger_middle_link_paraproximal_bar_paramedian_hinge_couple" type="revolute">
      <parent>l_finger_middle_link_paramedian_hinge</parent>
      <child>l_finger_middle_link_paraproximal_bar</child>
      <pose>0.05770 0 0 0 0 0</pose>
      <axis>
        <dynamics>
          <damping>0</damping>
          <friction>0</friction>
        </dynamics>
        <xyz>0 0 1</xyz>
        <!-- <use_parent_model_frame>false</use_parent_model_frame> -->
      </axis>
    </joint>
  </gazebo>
  <gazebo reference="l_finger_middle_link_paraproximal_bar_paramedian_hinge_couple">
    <implicitSpringDamper>1</implicitSpringDamper>
  </gazebo>
  <!-- link list -->
  <!-- Link palm -->
  <link name="l_palm">
    <visual>
      <geometry>
        <mesh filename="package://robotiq_s_model_visualization/meshes/s-model_articulated/visual/palm.STL"/>
      </geometry>
      <material name="green">
        <color rgba="0 1 0 1"/>
      </material>
    </visual>
    <!-- Simple shape collision -->
    <collision>
      <origin rpy="0 0 0" xyz="0 0 0"/>
      <geometry>
        <box size="0.1 0.1 0.1"/>
      </geometry>
      <material name="yellow">
        <color rgba="0 1 1 1"/>
      </material>
    </collision>
    <inertial>
      <origin rpy="0 0 0" xyz="0 0 0"/>
      <mass value="1.3"/>
      <inertia ixx="0.0035" ixy="0" ixz="-0" iyy="0.0035" iyz="0" izz="0.0035"/>
    </inertial>
  </link>
  <gazebo reference="l_palm">
    <mu1>1.1</mu1>
    <mu2>1.1</mu2>
  </gazebo>
  <!-- End of link list -->
  <!-- Joint list -->
  <!-- Joint palm_finger_1_joint -->
  <joint name="l_palm_finger_1_joint" type="revolute">
    <parent link="l_palm"/>
    <child link="l_finger_1_link_0"/>
    <dynamics damping="1" friction="0"/>
    <axis xyz="0 1 0"/>
    <origin rpy="0 3.1416 -1.57" xyz="-0.0455 0.0214 0.036"/>
    <!-- Limits: [-17deg.,17deg.] -->
    <limit effort="60" lower="-0.2967" upper="0.2967" velocity="-1"/>
  </joint>
  <gazebo reference="l_palm_finger_1_joint">
    <implicitSpringDamper>1</implicitSpringDamper>
  </gazebo>
  <!-- Joint palm_finger_2_joint -->
  <joint name="l_palm_finger_2_joint" type="revolute">
    <parent link="l_palm"/>
    <child link="l_finger_2_link_0"/>
    <dynamics damping="1" friction="0"/>
    <axis xyz="0 1 0"/>
    <origin rpy="0 3.1416 -1.57" xyz="-0.0455 0.0214 -0.036"/>
    <!-- Limits: [-17deg.,17deg.] -->
    <limit effort="60" lower="-0.2967" upper="0.2967" velocity="-1"/>
  </joint>
  <gazebo reference="l_palm_finger_2_joint">
    <implicitSpringDamper>1</implicitSpringDamper>
  </gazebo>
  <!-- Joint palm_finger_middle_joint -->
  <joint name="l_palm_finger_middle_joint" type="revolute">
    <parent link="l_palm"/>
    <child link="l_finger_middle_link_0"/>
    <dynamics damping="1" friction="0"/>
    <axis xyz="0 1 0"/>
    <origin rpy="0 0 1.57" xyz="0.0455 0.0214 0"/>
    <limit effort="60" lower="0" upper="0" velocity="-1"/>
  </joint>
  <gazebo reference="l_palm_finger_middle_joint">
    <implicitSpringDamper>1</implicitSpringDamper>
  </gazebo>
  <!-- end of joint list -->
  <!-- joint attaching parent link to robotiq hand -->
  <joint name="r_robotiq_hand_joint" type="fixed">
    <origin rpy="1.57 0 0" xyz="0 0 0.08"/>
    <parent link="r_robotiq_fts300_fts_toolside"/>
    <child link="r_palm"/>
  </joint>
  <!-- Insert the fingers -->
  <!-- Link list -->
  <!-- Link 0 -->
  <link name="r_finger_1_link_0">
    <visual>
      <origin rpy="0 0 0" xyz="0 0 0"/>
      <geometry>
        <mesh filename="package://robotiq_s_model_visualization/meshes/s-model_articulated/visual/link_0.STL"/>
      </geometry>
      <material name="green">
        <color rgba="0 1 0 1"/>
      </material>
    </visual>
    <collision>
      <origin rpy="0 0 0" xyz="0 0 0"/>
      <geometry>
        <mesh filename="package://robotiq_s_model_visualization/meshes/s-model_articulated/collision/link_0.STL"/>
      </geometry>
      <material name="yellow">
        <color rgba="0 1 1 1"/>
      </material>
    </collision>
    <inertial>
      <mass value="0.1"/>
      <origin xyz="-0.01 0 0"/>
      <inertia ixx="0.000018" ixy="0" ixz="0" iyy="0.000025" iyz="0" izz="0.000025"/>
    </inertial>
  </link>
  <gazebo reference="r_finger_1_link_0">
    <mu1>1.1</mu1>
    <mu2>1.1</mu2>
  </gazebo>
  <!-- Link 1 -->
  <link name="r_finger_1_link_1">
    <visual>
      <origin rpy="0 0 1.5708" xyz="0 0.05717 0"/>
      <geometry>
        <mesh filename="package://robotiq_s_model_visualization/meshes/s-model_articulated/visual/link_1.STL"/>
      </geometry>
      <material name="green"/>
    </visual>
    <collision>
      <origin rpy="0 0 1.5708" xyz="0 0.05717 0"/>
      <geometry>
        <mesh filename="package://robotiq_s_model_visualization/meshes/s-model_articulated/collision/link_1.STL"/>
      </geometry>
      <material name="yellow">
        <color rgba="0 1 1 1"/>
      </material>
    </collision>
    <inertial>
      <origin rpy="0 0 1.5708" xyz="0.00053 0.03218 0"/>
      <mass value="0.047"/>
      <inertia ixx="0.00000499332" ixy="0.00000091312" ixz="-0.00000000120" iyy="0.00006434531" iyz="-0.00000000007" izz="0.00006061917"/>
    </inertial>
  </link>
  <gazebo reference="r_finger_1_link_1">
    <mu1>1.1</mu1>
    <mu2>1.1</mu2>
  </gazebo>
  <!-- Link 2 -->
  <link name="r_finger_1_link_2">
    <visual>
      <origin rpy="0 0 1.5708" xyz="0 0.03810 0.0075"/>
      <geometry>
        <mesh filename="package://robotiq_s_model_visualization/meshes/s-model_articulated/visual/link_2.STL"/>
      </geometry>
      <material name="green"/>
    </visual>
    <collision>
      <origin rpy="0 0 1.5708" xyz="0 0.03810 0.0075"/>
      <geometry>
        <mesh filename="package://robotiq_s_model_visualization/meshes/s-model_articulated/collision/link_2.STL"/>
      </geometry>
      <material name="yellow"/>
    </collision>
    <inertial>
      <origin rpy="0 0 1.5708" xyz="0.00048 0.02167 0.00018"/>
      <mass value="0.03284"/>
      <inertia ixx="0.00000348008" ixy="0.00000031940" ixz="0.00000013041" iyy="0.00002248123" iyz="0.00000000291" izz="0.00001986346"/>
    </inertial>
  </link>
  <gazebo reference="r_finger_1_link_2">
    <mu1>1.1</mu1>
    <mu2>1.1</mu2>
  </gazebo>
  <!-- Link 3 -->
  <link name="r_finger_1_link_3">
    <visual>
      <origin rpy="0 0 0" xyz="0 0 0"/>
      <geometry>
        <mesh filename="package://robotiq_s_model_visualization/meshes/s-model_articulated/visual/link_3.STL"/>
      </geometry>
      <material name="green"/>
    </visual>
    <collision>
      <origin rpy="0 0 0" xyz="0 0 0"/>
      <geometry>
        <mesh filename="package://robotiq_s_model_visualization/meshes/s-model_articulated/collision/link_3.STL"/>
      </geometry>
      <material name="yellow"/>
    </collision>
    <inertial>
      <origin rpy="0 0 0" xyz="0.01626 0.00049 0.0002"/>
      <mass value="0.03354"/>
      <inertia ixx="0.00000305151" ixy="0.00000089792" ixz="0.00000000249" iyy="0.00001427978" iyz="-0.00000001191" izz="0.00001264126"/>
    </inertial>
  </link>
  <gazebo reference="r_finger_1_link_3">
    <mu1>1.1</mu1>
    <mu2>1.1</mu2>
  </gazebo>
  <!-- Link proximal actuating hinge -->
  <link name="r_finger_1_link_proximal_actuating_hinge">
    <visual>
      <origin rpy="0 0 0" xyz="0.01429 0 0"/>
      <geometry>
        <box size="0.02858 .0075 .002"/>
      </geometry>
    </visual>
    <collision>
      <origin rpy="0 0 0" xyz="0.01429 0 0"/>
      <geometry>
        <box size="0.02858 .0075 .002"/>
      </geometry>
    </collision>
    <inertial>
      <origin rpy="0 0 0" xyz="0.0012 -0.00162 -0.00161"/>
      <mass value="0.02647"/>
      <inertia ixx="0.00000156447" ixy="0.000000236226" ixz="-0.00000014862" iyy="0.00000221068" iyz="-0.00000014369" izz="0.00000323175"/>
    </inertial>
  </link>
  <gazebo reference="r_finger_1_link_proximal_actuating_hinge">
    <mu1>1.1</mu1>
    <mu2>1.1</mu2>
  </gazebo>
  <!-- Link paraproximal actuating hinge -->
  <link name="r_finger_1_link_paraproximal_actuating_hinge">
    <visual>
      <origin rpy="0 0 0" xyz="0.01143 0 0"/>
      <geometry>
        <box size="0.02286 .0075 .002"/>
      </geometry>
    </visual>
    <collision>
      <origin rpy="0 0 0" xyz="0.01143 0 0"/>
      <geometry>
        <box size="0.02286 .0075 .002"/>
      </geometry>
    </collision>
    <inertial>
      <origin rpy="0 0 0" xyz="0.0064 0 0"/>
      <!-- copied from proximal_actuating_hinge -->
      <mass value="0.00362"/>
      <inertia ixx="0.00000012043" ixy="0" ixz="0" iyy="0.00000053588" iyz="0" izz="0.00000065322"/>
    </inertial>
  </link>
  <gazebo reference="r_finger_1_link_paraproximal_actuating_hinge">
    <mu1>1.1</mu1>
    <mu2>1.1</mu2>
  </gazebo>
  <!-- Link proximal actuating bar -->
  <link name="r_finger_1_link_proximal_actuating_bar">
    <visual>
      <origin rpy="0 0 0" xyz="0.026789 0 0"/>
      <geometry>
        <box size="0.05398 .0075 .002"/>
      </geometry>
    </visual>
    <collision>
      <origin rpy="0 0 0" xyz="0.026789 0 0"/>
      <geometry>
        <box size="0.05398 .0075 .002"/>
      </geometry>
    </collision>
    <inertial>
      <origin rpy="0 0 0" xyz="0.02699 -0.00122 0"/>
      <mass value="0.00659"/>
      <inertia ixx="0.00000008348" ixy="-0.0000002179" ixz="0.00000000134" iyy="0.00000719076" iyz="0" izz="0.00000718272"/>
    </inertial>
  </link>
  <gazebo reference="r_finger_1_link_proximal_actuating_bar">
    <mu1>1.1</mu1>
    <mu2>1.1</mu2>
  </gazebo>
  <!-- Link paraproximal bar -->
  <link name="r_finger_1_link_paraproximal_bar">
    <visual>
      <origin rpy="0 0 0" xyz="0.02885 0 0"/>
      <geometry>
        <box size="0.05770 .0075 .002"/>
      </geometry>
    </visual>
    <collision>
      <origin rpy="0 0 0" xyz="0.02885 0 0"/>
      <geometry>
        <box size="0.05770 .0075 .002"/>
      </geometry>
    </collision>
    <inertial>
      <origin rpy="0 0 0" xyz="0.02858 -0.00129 0"/>
      <mass value="0.00732"/>
      <inertia ixx="0.00000009065" ixy="-0.00000027047" ixz="0.00000000142" iyy="0.00000878034" iyz="0" izz="0.00000877558"/>
    </inertial>
  </link>
  <gazebo reference="r_finger_1_link_paraproximal_bar">
    <mu1>1.1</mu1>
    <mu2>1.1</mu2>
  </gazebo>
  <!-- Link median actuating hinge -->
  <link name="r_finger_1_link_median_actuating_hinge">
    <visual>
      <origin rpy="0 0 0" xyz="0 0 0"/>
      <geometry>
        <box size=".02 .02 .002"/>
      </geometry>
    </visual>
    <collision>
      <origin rpy="0 0 0" xyz="0 0 0"/>
      <geometry>
        <box size=".02 .02 .002"/>
      </geometry>
    </collision>
    <inertial>
      <origin rpy="0 0 0" xyz="0.0092 0.00514 0"/>
      <mass value="0.00359"/>
      <inertia ixx="0.00000024735" ixy="0.00000023619" ixz="0" iyy="0.00000047681" iyz="0" izz="0.00000071813"/>
    </inertial>
  </link>
  <gazebo reference="r_finger_1_link_median_actuating_hinge">
    <mu1>1.1</mu1>
    <mu2>1.1</mu2>
  </gazebo>
  <!-- Link median bar -->
  <link name="r_finger_1_link_median_bar">
    <visual>
      <origin rpy="0 0 0" xyz="0.01905 0 0"/>
      <geometry>
        <box size="0.0381 .0075 .002"/>
      </geometry>
    </visual>
    <collision>
      <origin rpy="0 0 0" xyz="0.01905 0 0"/>
      <geometry>
        <box size="0.0381 .0075 .002"/>
      </geometry>
    </collision>
    <inertial>
      <origin rpy="0 0 0" xyz="0.01905 -0.00107 0"/>
      <mass value="0.00538"/>
      <inertia ixx="0.00000006639" ixy="-0.00000010996" ixz="0.00000000094" iyy="0.00000305318" iyz="0" izz="0.00000304657"/>
    </inertial>
  </link>
  <gazebo reference="r_finger_1_link_median_bar">
    <mu1>1.1</mu1>
    <mu2>1.1</mu2>
  </gazebo>
  <!-- Link paramedian hinge -->
  <link name="r_finger_1_link_paramedian_hinge">
    <visual>
      <origin rpy="0 0 0" xyz="0 0 0"/>
      <geometry>
        <box size=".02 .02 .002"/>
      </geometry>
    </visual>
    <collision>
      <origin rpy="0 0 0" xyz="0 0 0"/>
      <geometry>
        <box size=".02 .02 .002"/>
      </geometry>
    </collision>
    <inertial>
      <origin rpy="0 0 0" xyz="-0.01025 0.00046 0"/>
      <mass value="0.00276"/>
      <inertia ixx="0.00000004213" ixy="-0.00000001491" ixz="0" iyy="0.00000050258" iyz="0" izz="0.00000054007"/>
    </inertial>
  </link>
  <gazebo reference="r_finger_1_link_paramedian_hinge">
    <mu1>1.1</mu1>
    <mu2>1.1</mu2>
  </gazebo>
  <!-- Link median bar underactuated -->
  <link name="r_finger_1_link_median_bar_underactuated">
    <visual>
      <origin rpy="0 0 0" xyz="0.01905 0 0"/>
      <geometry>
        <box size="0.0381 .0075 .002"/>
      </geometry>
    </visual>
    <collision>
      <origin rpy="0 0 0" xyz="0.01905 0 0"/>
      <geometry>
        <box size="0.0381 .0075 .002"/>
      </geometry>
    </collision>
    <inertial>
      <origin rpy="0 0 0" xyz="0.01905 -0.00107 0"/>
      <mass value="0.00538"/>
      <inertia ixx="0.00000006639" ixy="-0.00000010996" ixz="-0.00000000094" iyy="0.00000305318" iyz="0" izz="0.00000304657"/>
    </inertial>
  </link>
  <gazebo reference="r_finger_1_link_median_bar_underactuated">
    <mu1>1.1</mu1>
    <mu2>1.1</mu2>
  </gazebo>
  <!-- Link paradistal hinge -->
  <link name="r_finger_1_link_paradistal_hinge">
    <visual>
      <origin rpy="0 0 0" xyz="0 0 0"/>
      <geometry>
        <box size=".02 .02 .002"/>
      </geometry>
    </visual>
    <collision>
      <origin rpy="0 0 0" xyz="0 0 0"/>
      <geometry>
        <box size=".02 0.02 .002"/>
      </geometry>
    </collision>
    <inertial>
      <origin rpy="0 0 0" xyz="0.00548 0 0"/>
      <mass value="0.00158"/>
      <inertia ixx="0.00000001907" ixy="0" ixz="0" iyy="0.00000010970" iyz="0" izz="0.00000012610"/>
    </inertial>
  </link>
  <gazebo reference="r_finger_1_link_paradistal_hinge">
    <mu1>1.1</mu1>
    <mu2>1.1</mu2>
  </gazebo>
  <!-- End of link list -->
  <!-- Joint list -->
  <!-- Joint proximal actuating hinge -->
  <joint name="r_finger_1_joint_proximal_actuating_hinge" type="revolute">
    <parent link="r_finger_1_link_0"/>
    <child link="r_finger_1_link_proximal_actuating_hinge"/>
    <axis xyz="0 0 1"/>
    <origin rpy="0 0 -2.0906" xyz="0 0 0.01"/>
    <limit effort="100" lower="-3.1416" upper="3.1416" velocity="100"/>
  </joint>
  <gazebo reference="r_finger_1_joint_proximal_actuating_hinge">
    <implicitSpringDamper>1</implicitSpringDamper>
  </gazebo>
  <!-- Joint paraproximal actuating hinge -->
  <joint name="r_finger_1_joint_paraproximal_actuating_hinge" type="revolute">
    <parent link="r_finger_1_link_0"/>
    <child link="r_finger_1_link_paraproximal_actuating_hinge"/>
    <axis xyz="0 0 1"/>
    <origin rpy="0 0 -2.0906" xyz="0 0 -0.01"/>
    <limit effort="100" lower="-3.1416" upper="3.1416" velocity="100"/>
  </joint>
  <gazebo reference="r_finger_1_joint_paraproximal_actuating_hinge">
    <implicitSpringDamper>1</implicitSpringDamper>
  </gazebo>
  <!-- Joint proximal actuating bar -->
  <joint name="r_finger_1_joint_proximal_actuating_bar" type="revolute">
    <parent link="r_finger_1_link_proximal_actuating_hinge"/>
    <child link="r_finger_1_link_proximal_actuating_bar"/>
    <axis xyz="0 0 1"/>
    <origin rpy="0 0 1.8616" xyz="0.02858 0 0"/>
    <limit effort="100" lower="-3.1416" upper="3.1416" velocity="100"/>
  </joint>
  <gazebo reference="r_finger_1_joint_proximal_actuating_bar">
    <implicitSpringDamper>1</implicitSpringDamper>
  </gazebo>
  <!-- Joint paraproximal bar -->
  <joint name="r_finger_1_joint_paraproximal_bar" type="revolute">
    <parent link="r_finger_1_link_paraproximal_actuating_hinge"/>
    <child link="r_finger_1_link_paraproximal_bar"/>
    <axis xyz="0 0 1"/>
    <origin rpy="0 0 1.57" xyz="0.02286 0 0"/>
    <limit effort="100" lower="-3.1416" upper="3.1416" velocity="100"/>
  </joint>
  <gazebo reference="r_finger_1_joint_paraproximal_bar">
    <implicitSpringDamper>1</implicitSpringDamper>
  </gazebo>
  <!-- Joint median actuating hinge -->
  <joint name="r_finger_1_joint_median_actuating_hinge" type="revolute">
    <parent link="r_finger_1_link_1"/>
    <child link="r_finger_1_link_median_actuating_hinge"/>
    <axis xyz="0 0 1"/>
    <origin rpy="0 0 -0.37" xyz="0 0.05715 0.01"/>
    <limit effort="100" lower="-3.1416" upper="3.1416" velocity="100"/>
  </joint>
  <gazebo reference="r_finger_1_joint_median_actuating_hinge">
    <implicitSpringDamper>1</implicitSpringDamper>
  </gazebo>
  <!-- Joint paramedian hinge -->
  <joint name="r_finger_1_joint_paramedian_hinge" type="revolute">
    <parent link="r_finger_1_link_1"/>
    <child link="r_finger_1_link_paramedian_hinge"/>
    <axis xyz="0 0 1"/>
    <!-- -0.37 is hand picked, 0.9719 is hand calculated from atan(0.02381/0.01625) -->
    <origin rpy="0 0 0" xyz="0 0.05715 -0.01"/>
    <limit effort="100" lower="-3.1416" upper="3.1416" velocity="100"/>
  </joint>
  <gazebo reference="r_finger_1_joint_paramedian_hinge">
    <implicitSpringDamper>1</implicitSpringDamper>
  </gazebo>
  <!-- Joint median actuating hinge median bar -->
  <joint name="r_finger_1_joint_median_actuating_hinge_median_bar" type="revolute">
    <parent link="r_finger_1_link_median_actuating_hinge"/>
    <child link="r_finger_1_link_median_bar"/>
    <axis xyz="0 0 1"/>
    <!-- hand calc 90 deg + atan(0.01516/0.01625) -->
    <origin rpy="0 0 2.3215" xyz="0.01625 0.01516 0"/>
    <limit effort="100" lower="-3.1416" upper="3.1416" velocity="100"/>
  </joint>
  <gazebo reference="r_finger_1_joint_median_actuating_hinge_median_bar">
    <implicitSpringDamper>1</implicitSpringDamper>
  </gazebo>
  <!-- Joint paradistal hinge -->
  <joint name="r_finger_1_joint_paradistal_hinge" type="revolute">
    <parent link="r_finger_1_link_2"/>
    <child link="r_finger_1_link_paradistal_hinge"/>
    <axis xyz="0 0 1"/>
    <origin rpy="0 0 0" xyz="0 0.039 -0.01"/>
    <limit effort="100" lower="-3.1416" upper="3.1416" velocity="100"/>
  </joint>
  <gazebo reference="r_finger_1_joint_paradistal_hinge">
    <implicitSpringDamper>1</implicitSpringDamper>
  </gazebo>
  <!-- Joint paramedian hinge median bar underactuated -->
  <joint name="r_finger_1_joint_paramedian_hinge_median_bar_underactuated" type="revolute">
    <parent link="r_finger_1_link_paramedian_hinge"/>
    <child link="r_finger_1_link_median_bar_underactuated"/>
    <axis xyz="0 0 1"/>
    <!-- hand calc 90 deg + atan(0.01227/0.00329) -->
    <origin rpy="0 0 1.5708" xyz="0.01227 0.00329 0"/>
    <limit effort="100" lower="-3.1416" upper="3.1416" velocity="100"/>
  </joint>
  <gazebo reference="r_finger_1_joint_paramedian_hinge_median_bar_underactuated">
    <implicitSpringDamper>1</implicitSpringDamper>
  </gazebo>
  <!-- Joint 1 -->
  <joint name="r_finger_1_joint_1" type="revolute">
    <origin rpy="0 0 -2.0906" xyz="0 0 0"/>
    <axis xyz="0 0 1"/>
    <parent link="r_finger_1_link_0"/>
    <child link="r_finger_1_link_1"/>
    <dynamics damping="1" friction="0"/>
    <!-- Limits: [0deg.,70deg.] -->
    <limit effort="60" lower="0" upper="1.2217" velocity="-1"/>
  </joint>
  <gazebo reference="r_finger_1_joint_1">
    <implicitSpringDamper>1</implicitSpringDamper>
  </gazebo>
  <!-- Joint 2 -->
  <joint name="r_finger_1_joint_2" type="revolute">
    <parent link="r_finger_1_link_1"/>
    <child link="r_finger_1_link_2"/>
    <dynamics damping="1" friction="0"/>
    <axis xyz="0 0 1"/>
    <origin rpy="0 0 0" xyz="0 0.05715 0"/>
    <!-- Limits: [0deg.,90deg.] -->
    <limit effort="60" lower="0" upper="1.5708" velocity="-1"/>
  </joint>
  <gazebo reference="r_finger_1_joint_2">
    <implicitSpringDamper>1</implicitSpringDamper>
  </gazebo>
  <!-- Joint 3 -->
  <joint name="r_finger_1_joint_3" type="revolute">
    <parent link="r_finger_1_link_2"/>
    <child link="r_finger_1_link_3"/>
    <dynamics damping="1" friction="0"/>
    <axis xyz="0 0 1"/>
    <origin rpy="0 0 2.0906" xyz="0 0.039 0"/>
    <!-- Limits: [-38deg.,60deg.] -->
    <limit effort="60" lower="-0.6632" upper="1.0471" velocity="-1"/>
  </joint>
  <gazebo reference="r_finger_1_joint_3">
    <implicitSpringDamper>1</implicitSpringDamper>
  </gazebo>
  <!-- end of joint list -->
  <!-- coupling joints in sdf -->
  <gazebo>
    <joint name="r_finger_1_link_proximal_actuating_bar_median_actuating_hinge_couple" type="revolute">
      <parent>r_finger_1_link_median_actuating_hinge</parent>
      <child>r_finger_1_link_proximal_actuating_bar</child>
      <pose>0.05398 0 0 0 0 0</pose>
      <axis>
        <dynamics>
          <damping>0</damping>
          <friction>0</friction>
        </dynamics>
        <xyz>0 0 1</xyz>
        <!-- <use_parent_model_frame>false</use_parent_model_frame> -->
      </axis>
    </joint>
  </gazebo>
  <gazebo reference="r_finger_1_link_proximal_actuating_bar_median_actuating_hinge_couple">
    <implicitSpringDamper>1</implicitSpringDamper>
  </gazebo>
  <gazebo>
    <joint name="r_finger_1_link_median_bar_link_3_couple" type="revolute">
      <parent>r_finger_1_link_3</parent>
      <child>r_finger_1_link_median_bar</child>
      <pose>0.0381 0 0 0 0 0</pose>
      <axis>
        <dynamics>
          <damping>0</damping>
          <friction>0</friction>
        </dynamics>
        <xyz>0 0 1</xyz>
        <!-- <use_parent_model_frame>false</use_parent_model_frame> -->
      </axis>
    </joint>
  </gazebo>
  <gazebo reference="r_finger_1_link_median_bar_link_3_couple">
    <implicitSpringDamper>1</implicitSpringDamper>
  </gazebo>
  <gazebo>
    <joint name="r_finger_1_link_paramedian_bar_paradistal_hinge_couple" type="revolute">
      <parent>r_finger_1_link_paradistal_hinge</parent>
      <child>r_finger_1_link_median_bar_underactuated</child>
      <pose>0.0381 0 0 0 0 0</pose>
      <axis>
        <dynamics>
          <damping>0</damping>
          <friction>0</friction>
        </dynamics>
        <xyz>0 0 1</xyz>
        <!-- <use_parent_model_frame>false</use_parent_model_frame> -->
      </axis>
    </joint>
  </gazebo>
  <gazebo reference="r_finger_1_link_median_bar_link_3_couple">
    <implicitSpringDamper>1</implicitSpringDamper>
  </gazebo>
  <gazebo>
    <joint name="r_finger_1_link_paradistal_hinge_link_3_couple" type="revolute">
      <parent>r_finger_1_link_paradistal_hinge</parent>
      <child>r_finger_1_link_3</child>
      <pose>0.0381 0 0 0 0 0</pose>
      <axis>
        <dynamics>
          <damping>0</damping>
          <friction>0</friction>
        </dynamics>
        <xyz>0 0 1</xyz>
        <!-- <use_parent_model_frame>false</use_parent_model_frame> -->
      </axis>
    </joint>
  </gazebo>
  <gazebo reference="r_finger_1_link_paradistal_hinge_link_3_couple">
    <implicitSpringDamper>1</implicitSpringDamper>
  </gazebo>
  <gazebo>
    <joint name="r_finger_1_link_paraproximal_bar_paramedian_hinge_couple" type="revolute">
      <parent>r_finger_1_link_paramedian_hinge</parent>
      <child>r_finger_1_link_paraproximal_bar</child>
      <pose>0.05770 0 0 0 0 0</pose>
      <axis>
        <dynamics>
          <damping>0</damping>
          <friction>0</friction>
        </dynamics>
        <xyz>0 0 1</xyz>
        <!-- <use_parent_model_frame>false</use_parent_model_frame> -->
      </axis>
    </joint>
  </gazebo>
  <gazebo reference="r_finger_1_link_paraproximal_bar_paramedian_hinge_couple">
    <implicitSpringDamper>1</implicitSpringDamper>
  </gazebo>
  <!-- Link list -->
  <!-- Link 0 -->
  <link name="r_finger_2_link_0">
    <visual>
      <origin rpy="0 0 0" xyz="0 0 0"/>
      <geometry>
        <mesh filename="package://robotiq_s_model_visualization/meshes/s-model_articulated/visual/link_0.STL"/>
      </geometry>
      <material name="green">
        <color rgba="0 1 0 1"/>
      </material>
    </visual>
    <collision>
      <origin rpy="0 0 0" xyz="0 0 0"/>
      <geometry>
        <mesh filename="package://robotiq_s_model_visualization/meshes/s-model_articulated/collision/link_0.STL"/>
      </geometry>
      <material name="yellow">
        <color rgba="0 1 1 1"/>
      </material>
    </collision>
    <inertial>
      <mass value="0.1"/>
      <origin xyz="-0.01 0 0"/>
      <inertia ixx="0.000018" ixy="0" ixz="0" iyy="0.000025" iyz="0" izz="0.000025"/>
    </inertial>
  </link>
  <gazebo reference="r_finger_2_link_0">
    <mu1>1.1</mu1>
    <mu2>1.1</mu2>
  </gazebo>
  <!-- Link 1 -->
  <link name="r_finger_2_link_1">
    <visual>
      <origin rpy="0 0 1.5708" xyz="0 0.05717 0"/>
      <geometry>
        <mesh filename="package://robotiq_s_model_visualization/meshes/s-model_articulated/visual/link_1.STL"/>
      </geometry>
      <material name="green"/>
    </visual>
    <collision>
      <origin rpy="0 0 1.5708" xyz="0 0.05717 0"/>
      <geometry>
        <mesh filename="package://robotiq_s_model_visualization/meshes/s-model_articulated/collision/link_1.STL"/>
      </geometry>
      <material name="yellow">
        <color rgba="0 1 1 1"/>
      </material>
    </collision>
    <inertial>
      <origin rpy="0 0 1.5708" xyz="0.00053 0.03218 0"/>
      <mass value="0.047"/>
      <inertia ixx="0.00000499332" ixy="0.00000091312" ixz="-0.00000000120" iyy="0.00006434531" iyz="-0.00000000007" izz="0.00006061917"/>
    </inertial>
  </link>
  <gazebo reference="r_finger_2_link_1">
    <mu1>1.1</mu1>
    <mu2>1.1</mu2>
  </gazebo>
  <!-- Link 2 -->
  <link name="r_finger_2_link_2">
    <visual>
      <origin rpy="0 0 1.5708" xyz="0 0.03810 0.0075"/>
      <geometry>
        <mesh filename="package://robotiq_s_model_visualization/meshes/s-model_articulated/visual/link_2.STL"/>
      </geometry>
      <material name="green"/>
    </visual>
    <collision>
      <origin rpy="0 0 1.5708" xyz="0 0.03810 0.0075"/>
      <geometry>
        <mesh filename="package://robotiq_s_model_visualization/meshes/s-model_articulated/collision/link_2.STL"/>
      </geometry>
      <material name="yellow"/>
    </collision>
    <inertial>
      <origin rpy="0 0 1.5708" xyz="0.00048 0.02167 0.00018"/>
      <mass value="0.03284"/>
      <inertia ixx="0.00000348008" ixy="0.00000031940" ixz="0.00000013041" iyy="0.00002248123" iyz="0.00000000291" izz="0.00001986346"/>
    </inertial>
  </link>
  <gazebo reference="r_finger_2_link_2">
    <mu1>1.1</mu1>
    <mu2>1.1</mu2>
  </gazebo>
  <!-- Link 3 -->
  <link name="r_finger_2_link_3">
    <visual>
      <origin rpy="0 0 0" xyz="0 0 0"/>
      <geometry>
        <mesh filename="package://robotiq_s_model_visualization/meshes/s-model_articulated/visual/link_3.STL"/>
      </geometry>
      <material name="green"/>
    </visual>
    <collision>
      <origin rpy="0 0 0" xyz="0 0 0"/>
      <geometry>
        <mesh filename="package://robotiq_s_model_visualization/meshes/s-model_articulated/collision/link_3.STL"/>
      </geometry>
      <material name="yellow"/>
    </collision>
    <inertial>
      <origin rpy="0 0 0" xyz="0.01626 0.00049 0.0002"/>
      <mass value="0.03354"/>
      <inertia ixx="0.00000305151" ixy="0.00000089792" ixz="0.00000000249" iyy="0.00001427978" iyz="-0.00000001191" izz="0.00001264126"/>
    </inertial>
  </link>
  <gazebo reference="r_finger_2_link_3">
    <mu1>1.1</mu1>
    <mu2>1.1</mu2>
  </gazebo>
  <!-- Link proximal actuating hinge -->
  <link name="r_finger_2_link_proximal_actuating_hinge">
    <visual>
      <origin rpy="0 0 0" xyz="0.01429 0 0"/>
      <geometry>
        <box size="0.02858 .0075 .002"/>
      </geometry>
    </visual>
    <collision>
      <origin rpy="0 0 0" xyz="0.01429 0 0"/>
      <geometry>
        <box size="0.02858 .0075 .002"/>
      </geometry>
    </collision>
    <inertial>
      <origin rpy="0 0 0" xyz="0.0012 -0.00162 -0.00161"/>
      <mass value="0.02647"/>
      <inertia ixx="0.00000156447" ixy="0.000000236226" ixz="-0.00000014862" iyy="0.00000221068" iyz="-0.00000014369" izz="0.00000323175"/>
    </inertial>
  </link>
  <gazebo reference="r_finger_2_link_proximal_actuating_hinge">
    <mu1>1.1</mu1>
    <mu2>1.1</mu2>
  </gazebo>
  <!-- Link paraproximal actuating hinge -->
  <link name="r_finger_2_link_paraproximal_actuating_hinge">
    <visual>
      <origin rpy="0 0 0" xyz="0.01143 0 0"/>
      <geometry>
        <box size="0.02286 .0075 .002"/>
      </geometry>
    </visual>
    <collision>
      <origin rpy="0 0 0" xyz="0.01143 0 0"/>
      <geometry>
        <box size="0.02286 .0075 .002"/>
      </geometry>
    </collision>
    <inertial>
      <origin rpy="0 0 0" xyz="0.0064 0 0"/>
      <!-- copied from proximal_actuating_hinge -->
      <mass value="0.00362"/>
      <inertia ixx="0.00000012043" ixy="0" ixz="0" iyy="0.00000053588" iyz="0" izz="0.00000065322"/>
    </inertial>
  </link>
  <gazebo reference="r_finger_2_link_paraproximal_actuating_hinge">
    <mu1>1.1</mu1>
    <mu2>1.1</mu2>
  </gazebo>
  <!-- Link proximal actuating bar -->
  <link name="r_finger_2_link_proximal_actuating_bar">
    <visual>
      <origin rpy="0 0 0" xyz="0.026789 0 0"/>
      <geometry>
        <box size="0.05398 .0075 .002"/>
      </geometry>
    </visual>
    <collision>
      <origin rpy="0 0 0" xyz="0.026789 0 0"/>
      <geometry>
        <box size="0.05398 .0075 .002"/>
      </geometry>
    </collision>
    <inertial>
      <origin rpy="0 0 0" xyz="0.02699 -0.00122 0"/>
      <mass value="0.00659"/>
      <inertia ixx="0.00000008348" ixy="-0.0000002179" ixz="0.00000000134" iyy="0.00000719076" iyz="0" izz="0.00000718272"/>
    </inertial>
  </link>
  <gazebo reference="r_finger_2_link_proximal_actuating_bar">
    <mu1>1.1</mu1>
    <mu2>1.1</mu2>
  </gazebo>
  <!-- Link paraproximal bar -->
  <link name="r_finger_2_link_paraproximal_bar">
    <visual>
      <origin rpy="0 0 0" xyz="0.02885 0 0"/>
      <geometry>
        <box size="0.05770 .0075 .002"/>
      </geometry>
    </visual>
    <collision>
      <origin rpy="0 0 0" xyz="0.02885 0 0"/>
      <geometry>
        <box size="0.05770 .0075 .002"/>
      </geometry>
    </collision>
    <inertial>
      <origin rpy="0 0 0" xyz="0.02858 -0.00129 0"/>
      <mass value="0.00732"/>
      <inertia ixx="0.00000009065" ixy="-0.00000027047" ixz="0.00000000142" iyy="0.00000878034" iyz="0" izz="0.00000877558"/>
    </inertial>
  </link>
  <gazebo reference="r_finger_2_link_paraproximal_bar">
    <mu1>1.1</mu1>
    <mu2>1.1</mu2>
  </gazebo>
  <!-- Link median actuating hinge -->
  <link name="r_finger_2_link_median_actuating_hinge">
    <visual>
      <origin rpy="0 0 0" xyz="0 0 0"/>
      <geometry>
        <box size=".02 .02 .002"/>
      </geometry>
    </visual>
    <collision>
      <origin rpy="0 0 0" xyz="0 0 0"/>
      <geometry>
        <box size=".02 .02 .002"/>
      </geometry>
    </collision>
    <inertial>
      <origin rpy="0 0 0" xyz="0.0092 0.00514 0"/>
      <mass value="0.00359"/>
      <inertia ixx="0.00000024735" ixy="0.00000023619" ixz="0" iyy="0.00000047681" iyz="0" izz="0.00000071813"/>
    </inertial>
  </link>
  <gazebo reference="r_finger_2_link_median_actuating_hinge">
    <mu1>1.1</mu1>
    <mu2>1.1</mu2>
  </gazebo>
  <!-- Link median bar -->
  <link name="r_finger_2_link_median_bar">
    <visual>
      <origin rpy="0 0 0" xyz="0.01905 0 0"/>
      <geometry>
        <box size="0.0381 .0075 .002"/>
      </geometry>
    </visual>
    <collision>
      <origin rpy="0 0 0" xyz="0.01905 0 0"/>
      <geometry>
        <box size="0.0381 .0075 .002"/>
      </geometry>
    </collision>
    <inertial>
      <origin rpy="0 0 0" xyz="0.01905 -0.00107 0"/>
      <mass value="0.00538"/>
      <inertia ixx="0.00000006639" ixy="-0.00000010996" ixz="0.00000000094" iyy="0.00000305318" iyz="0" izz="0.00000304657"/>
    </inertial>
  </link>
  <gazebo reference="r_finger_2_link_median_bar">
    <mu1>1.1</mu1>
    <mu2>1.1</mu2>
  </gazebo>
  <!-- Link paramedian hinge -->
  <link name="r_finger_2_link_paramedian_hinge">
    <visual>
      <origin rpy="0 0 0" xyz="0 0 0"/>
      <geometry>
        <box size=".02 .02 .002"/>
      </geometry>
    </visual>
    <collision>
      <origin rpy="0 0 0" xyz="0 0 0"/>
      <geometry>
        <box size=".02 .02 .002"/>
      </geometry>
    </collision>
    <inertial>
      <origin rpy="0 0 0" xyz="-0.01025 0.00046 0"/>
      <mass value="0.00276"/>
      <inertia ixx="0.00000004213" ixy="-0.00000001491" ixz="0" iyy="0.00000050258" iyz="0" izz="0.00000054007"/>
    </inertial>
  </link>
  <gazebo reference="r_finger_2_link_paramedian_hinge">
    <mu1>1.1</mu1>
    <mu2>1.1</mu2>
  </gazebo>
  <!-- Link median bar underactuated -->
  <link name="r_finger_2_link_median_bar_underactuated">
    <visual>
      <origin rpy="0 0 0" xyz="0.01905 0 0"/>
      <geometry>
        <box size="0.0381 .0075 .002"/>
      </geometry>
    </visual>
    <collision>
      <origin rpy="0 0 0" xyz="0.01905 0 0"/>
      <geometry>
        <box size="0.0381 .0075 .002"/>
      </geometry>
    </collision>
    <inertial>
      <origin rpy="0 0 0" xyz="0.01905 -0.00107 0"/>
      <mass value="0.00538"/>
      <inertia ixx="0.00000006639" ixy="-0.00000010996" ixz="-0.00000000094" iyy="0.00000305318" iyz="0" izz="0.00000304657"/>
    </inertial>
  </link>
  <gazebo reference="r_finger_2_link_median_bar_underactuated">
    <mu1>1.1</mu1>
    <mu2>1.1</mu2>
  </gazebo>
  <!-- Link paradistal hinge -->
  <link name="r_finger_2_link_paradistal_hinge">
    <visual>
      <origin rpy="0 0 0" xyz="0 0 0"/>
      <geometry>
        <box size=".02 .02 .002"/>
      </geometry>
    </visual>
    <collision>
      <origin rpy="0 0 0" xyz="0 0 0"/>
      <geometry>
        <box size=".02 0.02 .002"/>
      </geometry>
    </collision>
    <inertial>
      <origin rpy="0 0 0" xyz="0.00548 0 0"/>
      <mass value="0.00158"/>
      <inertia ixx="0.00000001907" ixy="0" ixz="0" iyy="0.00000010970" iyz="0" izz="0.00000012610"/>
    </inertial>
  </link>
  <gazebo reference="r_finger_2_link_paradistal_hinge">
    <mu1>1.1</mu1>
    <mu2>1.1</mu2>
  </gazebo>
  <!-- End of link list -->
  <!-- Joint list -->
  <!-- Joint proximal actuating hinge -->
  <joint name="r_finger_2_joint_proximal_actuating_hinge" type="revolute">
    <parent link="r_finger_2_link_0"/>
    <child link="r_finger_2_link_proximal_actuating_hinge"/>
    <axis xyz="0 0 1"/>
    <origin rpy="0 0 -2.0906" xyz="0 0 0.01"/>
    <limit effort="100" lower="-3.1416" upper="3.1416" velocity="100"/>
  </joint>
  <gazebo reference="r_finger_2_joint_proximal_actuating_hinge">
    <implicitSpringDamper>1</implicitSpringDamper>
  </gazebo>
  <!-- Joint paraproximal actuating hinge -->
  <joint name="r_finger_2_joint_paraproximal_actuating_hinge" type="revolute">
    <parent link="r_finger_2_link_0"/>
    <child link="r_finger_2_link_paraproximal_actuating_hinge"/>
    <axis xyz="0 0 1"/>
    <origin rpy="0 0 -2.0906" xyz="0 0 -0.01"/>
    <limit effort="100" lower="-3.1416" upper="3.1416" velocity="100"/>
  </joint>
  <gazebo reference="r_finger_2_joint_paraproximal_actuating_hinge">
    <implicitSpringDamper>1</implicitSpringDamper>
  </gazebo>
  <!-- Joint proximal actuating bar -->
  <joint name="r_finger_2_joint_proximal_actuating_bar" type="revolute">
    <parent link="r_finger_2_link_proximal_actuating_hinge"/>
    <child link="r_finger_2_link_proximal_actuating_bar"/>
    <axis xyz="0 0 1"/>
    <origin rpy="0 0 1.8616" xyz="0.02858 0 0"/>
    <limit effort="100" lower="-3.1416" upper="3.1416" velocity="100"/>
  </joint>
  <gazebo reference="r_finger_2_joint_proximal_actuating_bar">
    <implicitSpringDamper>1</implicitSpringDamper>
  </gazebo>
  <!-- Joint paraproximal bar -->
  <joint name="r_finger_2_joint_paraproximal_bar" type="revolute">
    <parent link="r_finger_2_link_paraproximal_actuating_hinge"/>
    <child link="r_finger_2_link_paraproximal_bar"/>
    <axis xyz="0 0 1"/>
    <origin rpy="0 0 1.57" xyz="0.02286 0 0"/>
    <limit effort="100" lower="-3.1416" upper="3.1416" velocity="100"/>
  </joint>
  <gazebo reference="r_finger_2_joint_paraproximal_bar">
    <implicitSpringDamper>1</implicitSpringDamper>
  </gazebo>
  <!-- Joint median actuating hinge -->
  <joint name="r_finger_2_joint_median_actuating_hinge" type="revolute">
    <parent link="r_finger_2_link_1"/>
    <child link="r_finger_2_link_median_actuating_hinge"/>
    <axis xyz="0 0 1"/>
    <origin rpy="0 0 -0.37" xyz="0 0.05715 0.01"/>
    <limit effort="100" lower="-3.1416" upper="3.1416" velocity="100"/>
  </joint>
  <gazebo reference="r_finger_2_joint_median_actuating_hinge">
    <implicitSpringDamper>1</implicitSpringDamper>
  </gazebo>
  <!-- Joint paramedian hinge -->
  <joint name="r_finger_2_joint_paramedian_hinge" type="revolute">
    <parent link="r_finger_2_link_1"/>
    <child link="r_finger_2_link_paramedian_hinge"/>
    <axis xyz="0 0 1"/>
    <!-- -0.37 is hand picked, 0.9719 is hand calculated from atan(0.02381/0.01625) -->
    <origin rpy="0 0 0" xyz="0 0.05715 -0.01"/>
    <limit effort="100" lower="-3.1416" upper="3.1416" velocity="100"/>
  </joint>
  <gazebo reference="r_finger_2_joint_paramedian_hinge">
    <implicitSpringDamper>1</implicitSpringDamper>
  </gazebo>
  <!-- Joint median actuating hinge median bar -->
  <joint name="r_finger_2_joint_median_actuating_hinge_median_bar" type="revolute">
    <parent link="r_finger_2_link_median_actuating_hinge"/>
    <child link="r_finger_2_link_median_bar"/>
    <axis xyz="0 0 1"/>
    <!-- hand calc 90 deg + atan(0.01516/0.01625) -->
    <origin rpy="0 0 2.3215" xyz="0.01625 0.01516 0"/>
    <limit effort="100" lower="-3.1416" upper="3.1416" velocity="100"/>
  </joint>
  <gazebo reference="r_finger_2_joint_median_actuating_hinge_median_bar">
    <implicitSpringDamper>1</implicitSpringDamper>
  </gazebo>
  <!-- Joint paradistal hinge -->
  <joint name="r_finger_2_joint_paradistal_hinge" type="revolute">
    <parent link="r_finger_2_link_2"/>
    <child link="r_finger_2_link_paradistal_hinge"/>
    <axis xyz="0 0 1"/>
    <origin rpy="0 0 0" xyz="0 0.039 -0.01"/>
    <limit effort="100" lower="-3.1416" upper="3.1416" velocity="100"/>
  </joint>
  <gazebo reference="r_finger_2_joint_paradistal_hinge">
    <implicitSpringDamper>1</implicitSpringDamper>
  </gazebo>
  <!-- Joint paramedian hinge median bar underactuated -->
  <joint name="r_finger_2_joint_paramedian_hinge_median_bar_underactuated" type="revolute">
    <parent link="r_finger_2_link_paramedian_hinge"/>
    <child link="r_finger_2_link_median_bar_underactuated"/>
    <axis xyz="0 0 1"/>
    <!-- hand calc 90 deg + atan(0.01227/0.00329) -->
    <origin rpy="0 0 1.5708" xyz="0.01227 0.00329 0"/>
    <limit effort="100" lower="-3.1416" upper="3.1416" velocity="100"/>
  </joint>
  <gazebo reference="r_finger_2_joint_paramedian_hinge_median_bar_underactuated">
    <implicitSpringDamper>1</implicitSpringDamper>
  </gazebo>
  <!-- Joint 1 -->
  <joint name="r_finger_2_joint_1" type="revolute">
    <origin rpy="0 0 -2.0906" xyz="0 0 0"/>
    <axis xyz="0 0 1"/>
    <parent link="r_finger_2_link_0"/>
    <child link="r_finger_2_link_1"/>
    <dynamics damping="1" friction="0"/>
    <!-- Limits: [0deg.,70deg.] -->
    <limit effort="60" lower="0" upper="1.2217" velocity="-1"/>
  </joint>
  <gazebo reference="r_finger_2_joint_1">
    <implicitSpringDamper>1</implicitSpringDamper>
  </gazebo>
  <!-- Joint 2 -->
  <joint name="r_finger_2_joint_2" type="revolute">
    <parent link="r_finger_2_link_1"/>
    <child link="r_finger_2_link_2"/>
    <dynamics damping="1" friction="0"/>
    <axis xyz="0 0 1"/>
    <origin rpy="0 0 0" xyz="0 0.05715 0"/>
    <!-- Limits: [0deg.,90deg.] -->
    <limit effort="60" lower="0" upper="1.5708" velocity="-1"/>
  </joint>
  <gazebo reference="r_finger_2_joint_2">
    <implicitSpringDamper>1</implicitSpringDamper>
  </gazebo>
  <!-- Joint 3 -->
  <joint name="r_finger_2_joint_3" type="revolute">
    <parent link="r_finger_2_link_2"/>
    <child link="r_finger_2_link_3"/>
    <dynamics damping="1" friction="0"/>
    <axis xyz="0 0 1"/>
    <origin rpy="0 0 2.0906" xyz="0 0.039 0"/>
    <!-- Limits: [-38deg.,60deg.] -->
    <limit effort="60" lower="-0.6632" upper="1.0471" velocity="-1"/>
  </joint>
  <gazebo reference="r_finger_2_joint_3">
    <implicitSpringDamper>1</implicitSpringDamper>
  </gazebo>
  <!-- end of joint list -->
  <!-- coupling joints in sdf -->
  <gazebo>
    <joint name="r_finger_2_link_proximal_actuating_bar_median_actuating_hinge_couple" type="revolute">
      <parent>r_finger_2_link_median_actuating_hinge</parent>
      <child>r_finger_2_link_proximal_actuating_bar</child>
      <pose>0.05398 0 0 0 0 0</pose>
      <axis>
        <dynamics>
          <damping>0</damping>
          <friction>0</friction>
        </dynamics>
        <xyz>0 0 1</xyz>
        <!-- <use_parent_model_frame>false</use_parent_model_frame> -->
      </axis>
    </joint>
  </gazebo>
  <gazebo reference="r_finger_2_link_proximal_actuating_bar_median_actuating_hinge_couple">
    <implicitSpringDamper>1</implicitSpringDamper>
  </gazebo>
  <gazebo>
    <joint name="r_finger_2_link_median_bar_link_3_couple" type="revolute">
      <parent>r_finger_2_link_3</parent>
      <child>r_finger_2_link_median_bar</child>
      <pose>0.0381 0 0 0 0 0</pose>
      <axis>
        <dynamics>
          <damping>0</damping>
          <friction>0</friction>
        </dynamics>
        <xyz>0 0 1</xyz>
        <!-- <use_parent_model_frame>false</use_parent_model_frame> -->
      </axis>
    </joint>
  </gazebo>
  <gazebo reference="r_finger_2_link_median_bar_link_3_couple">
    <implicitSpringDamper>1</implicitSpringDamper>
  </gazebo>
  <gazebo>
    <joint name="r_finger_2_link_paramedian_bar_paradistal_hinge_couple" type="revolute">
      <parent>r_finger_2_link_paradistal_hinge</parent>
      <child>r_finger_2_link_median_bar_underactuated</child>
      <pose>0.0381 0 0 0 0 0</pose>
      <axis>
        <dynamics>
          <damping>0</damping>
          <friction>0</friction>
        </dynamics>
        <xyz>0 0 1</xyz>
        <!-- <use_parent_model_frame>false</use_parent_model_frame> -->
      </axis>
    </joint>
  </gazebo>
  <gazebo reference="r_finger_2_link_median_bar_link_3_couple">
    <implicitSpringDamper>1</implicitSpringDamper>
  </gazebo>
  <gazebo>
    <joint name="r_finger_2_link_paradistal_hinge_link_3_couple" type="revolute">
      <parent>r_finger_2_link_paradistal_hinge</parent>
      <child>r_finger_2_link_3</child>
      <pose>0.0381 0 0 0 0 0</pose>
      <axis>
        <dynamics>
          <damping>0</damping>
          <friction>0</friction>
        </dynamics>
        <xyz>0 0 1</xyz>
        <!-- <use_parent_model_frame>false</use_parent_model_frame> -->
      </axis>
    </joint>
  </gazebo>
  <gazebo reference="r_finger_2_link_paradistal_hinge_link_3_couple">
    <implicitSpringDamper>1</implicitSpringDamper>
  </gazebo>
  <gazebo>
    <joint name="r_finger_2_link_paraproximal_bar_paramedian_hinge_couple" type="revolute">
      <parent>r_finger_2_link_paramedian_hinge</parent>
      <child>r_finger_2_link_paraproximal_bar</child>
      <pose>0.05770 0 0 0 0 0</pose>
      <axis>
        <dynamics>
          <damping>0</damping>
          <friction>0</friction>
        </dynamics>
        <xyz>0 0 1</xyz>
        <!-- <use_parent_model_frame>false</use_parent_model_frame> -->
      </axis>
    </joint>
  </gazebo>
  <gazebo reference="r_finger_2_link_paraproximal_bar_paramedian_hinge_couple">
    <implicitSpringDamper>1</implicitSpringDamper>
  </gazebo>
  <!-- Link list -->
  <!-- Link 0 -->
  <link name="r_finger_middle_link_0">
    <visual>
      <origin rpy="0 0 0" xyz="0 0 0"/>
      <geometry>
        <mesh filename="package://robotiq_s_model_visualization/meshes/s-model_articulated/visual/link_0.STL"/>
      </geometry>
      <material name="green">
        <color rgba="0 1 0 1"/>
      </material>
    </visual>
    <collision>
      <origin rpy="0 0 0" xyz="0 0 0"/>
      <geometry>
        <mesh filename="package://robotiq_s_model_visualization/meshes/s-model_articulated/collision/link_0.STL"/>
      </geometry>
      <material name="yellow">
        <color rgba="0 1 1 1"/>
      </material>
    </collision>
    <inertial>
      <mass value="0.1"/>
      <origin xyz="-0.01 0 0"/>
      <inertia ixx="0.000018" ixy="0" ixz="0" iyy="0.000025" iyz="0" izz="0.000025"/>
    </inertial>
  </link>
  <gazebo reference="r_finger_middle_link_0">
    <mu1>1.1</mu1>
    <mu2>1.1</mu2>
  </gazebo>
  <!-- Link 1 -->
  <link name="r_finger_middle_link_1">
    <visual>
      <origin rpy="0 0 1.5708" xyz="0 0.05717 0"/>
      <geometry>
        <mesh filename="package://robotiq_s_model_visualization/meshes/s-model_articulated/visual/link_1.STL"/>
      </geometry>
      <material name="green"/>
    </visual>
    <collision>
      <origin rpy="0 0 1.5708" xyz="0 0.05717 0"/>
      <geometry>
        <mesh filename="package://robotiq_s_model_visualization/meshes/s-model_articulated/collision/link_1.STL"/>
      </geometry>
      <material name="yellow">
        <color rgba="0 1 1 1"/>
      </material>
    </collision>
    <inertial>
      <origin rpy="0 0 1.5708" xyz="0.00053 0.03218 0"/>
      <mass value="0.047"/>
      <inertia ixx="0.00000499332" ixy="0.00000091312" ixz="-0.00000000120" iyy="0.00006434531" iyz="-0.00000000007" izz="0.00006061917"/>
    </inertial>
  </link>
  <gazebo reference="r_finger_middle_link_1">
    <mu1>1.1</mu1>
    <mu2>1.1</mu2>
  </gazebo>
  <!-- Link 2 -->
  <link name="r_finger_middle_link_2">
    <visual>
      <origin rpy="0 0 1.5708" xyz="0 0.03810 0.0075"/>
      <geometry>
        <mesh filename="package://robotiq_s_model_visualization/meshes/s-model_articulated/visual/link_2.STL"/>
      </geometry>
      <material name="green"/>
    </visual>
    <collision>
      <origin rpy="0 0 1.5708" xyz="0 0.03810 0.0075"/>
      <geometry>
        <mesh filename="package://robotiq_s_model_visualization/meshes/s-model_articulated/collision/link_2.STL"/>
      </geometry>
      <material name="yellow"/>
    </collision>
    <inertial>
      <origin rpy="0 0 1.5708" xyz="0.00048 0.02167 0.00018"/>
      <mass value="0.03284"/>
      <inertia ixx="0.00000348008" ixy="0.00000031940" ixz="0.00000013041" iyy="0.00002248123" iyz="0.00000000291" izz="0.00001986346"/>
    </inertial>
  </link>
  <gazebo reference="r_finger_middle_link_2">
    <mu1>1.1</mu1>
    <mu2>1.1</mu2>
  </gazebo>
  <!-- Link 3 -->
  <link name="r_finger_middle_link_3">
    <visual>
      <origin rpy="0 0 0" xyz="0 0 0"/>
      <geometry>
        <mesh filename="package://robotiq_s_model_visualization/meshes/s-model_articulated/visual/link_3.STL"/>
      </geometry>
      <material name="green"/>
    </visual>
    <collision>
      <origin rpy="0 0 0" xyz="0 0 0"/>
      <geometry>
        <mesh filename="package://robotiq_s_model_visualization/meshes/s-model_articulated/collision/link_3.STL"/>
      </geometry>
      <material name="yellow"/>
    </collision>
    <inertial>
      <origin rpy="0 0 0" xyz="0.01626 0.00049 0.0002"/>
      <mass value="0.03354"/>
      <inertia ixx="0.00000305151" ixy="0.00000089792" ixz="0.00000000249" iyy="0.00001427978" iyz="-0.00000001191" izz="0.00001264126"/>
    </inertial>
  </link>
  <gazebo reference="r_finger_middle_link_3">
    <mu1>1.1</mu1>
    <mu2>1.1</mu2>
  </gazebo>
  <!-- Link proximal actuating hinge -->
  <link name="r_finger_middle_link_proximal_actuating_hinge">
    <visual>
      <origin rpy="0 0 0" xyz="0.01429 0 0"/>
      <geometry>
        <box size="0.02858 .0075 .002"/>
      </geometry>
    </visual>
    <collision>
      <origin rpy="0 0 0" xyz="0.01429 0 0"/>
      <geometry>
        <box size="0.02858 .0075 .002"/>
      </geometry>
    </collision>
    <inertial>
      <origin rpy="0 0 0" xyz="0.0012 -0.00162 -0.00161"/>
      <mass value="0.02647"/>
      <inertia ixx="0.00000156447" ixy="0.000000236226" ixz="-0.00000014862" iyy="0.00000221068" iyz="-0.00000014369" izz="0.00000323175"/>
    </inertial>
  </link>
  <gazebo reference="r_finger_middle_link_proximal_actuating_hinge">
    <mu1>1.1</mu1>
    <mu2>1.1</mu2>
  </gazebo>
  <!-- Link paraproximal actuating hinge -->
  <link name="r_finger_middle_link_paraproximal_actuating_hinge">
    <visual>
      <origin rpy="0 0 0" xyz="0.01143 0 0"/>
      <geometry>
        <box size="0.02286 .0075 .002"/>
      </geometry>
    </visual>
    <collision>
      <origin rpy="0 0 0" xyz="0.01143 0 0"/>
      <geometry>
        <box size="0.02286 .0075 .002"/>
      </geometry>
    </collision>
    <inertial>
      <origin rpy="0 0 0" xyz="0.0064 0 0"/>
      <!-- copied from proximal_actuating_hinge -->
      <mass value="0.00362"/>
      <inertia ixx="0.00000012043" ixy="0" ixz="0" iyy="0.00000053588" iyz="0" izz="0.00000065322"/>
    </inertial>
  </link>
  <gazebo reference="r_finger_middle_link_paraproximal_actuating_hinge">
    <mu1>1.1</mu1>
    <mu2>1.1</mu2>
  </gazebo>
  <!-- Link proximal actuating bar -->
  <link name="r_finger_middle_link_proximal_actuating_bar">
    <visual>
      <origin rpy="0 0 0" xyz="0.026789 0 0"/>
      <geometry>
        <box size="0.05398 .0075 .002"/>
      </geometry>
    </visual>
    <collision>
      <origin rpy="0 0 0" xyz="0.026789 0 0"/>
      <geometry>
        <box size="0.05398 .0075 .002"/>
      </geometry>
    </collision>
    <inertial>
      <origin rpy="0 0 0" xyz="0.02699 -0.00122 0"/>
      <mass value="0.00659"/>
      <inertia ixx="0.00000008348" ixy="-0.0000002179" ixz="0.00000000134" iyy="0.00000719076" iyz="0" izz="0.00000718272"/>
    </inertial>
  </link>
  <gazebo reference="r_finger_middle_link_proximal_actuating_bar">
    <mu1>1.1</mu1>
    <mu2>1.1</mu2>
  </gazebo>
  <!-- Link paraproximal bar -->
  <link name="r_finger_middle_link_paraproximal_bar">
    <visual>
      <origin rpy="0 0 0" xyz="0.02885 0 0"/>
      <geometry>
        <box size="0.05770 .0075 .002"/>
      </geometry>
    </visual>
    <collision>
      <origin rpy="0 0 0" xyz="0.02885 0 0"/>
      <geometry>
        <box size="0.05770 .0075 .002"/>
      </geometry>
    </collision>
    <inertial>
      <origin rpy="0 0 0" xyz="0.02858 -0.00129 0"/>
      <mass value="0.00732"/>
      <inertia ixx="0.00000009065" ixy="-0.00000027047" ixz="0.00000000142" iyy="0.00000878034" iyz="0" izz="0.00000877558"/>
    </inertial>
  </link>
  <gazebo reference="r_finger_middle_link_paraproximal_bar">
    <mu1>1.1</mu1>
    <mu2>1.1</mu2>
  </gazebo>
  <!-- Link median actuating hinge -->
  <link name="r_finger_middle_link_median_actuating_hinge">
    <visual>
      <origin rpy="0 0 0" xyz="0 0 0"/>
      <geometry>
        <box size=".02 .02 .002"/>
      </geometry>
    </visual>
    <collision>
      <origin rpy="0 0 0" xyz="0 0 0"/>
      <geometry>
        <box size=".02 .02 .002"/>
      </geometry>
    </collision>
    <inertial>
      <origin rpy="0 0 0" xyz="0.0092 0.00514 0"/>
      <mass value="0.00359"/>
      <inertia ixx="0.00000024735" ixy="0.00000023619" ixz="0" iyy="0.00000047681" iyz="0" izz="0.00000071813"/>
    </inertial>
  </link>
  <gazebo reference="r_finger_middle_link_median_actuating_hinge">
    <mu1>1.1</mu1>
    <mu2>1.1</mu2>
  </gazebo>
  <!-- Link median bar -->
  <link name="r_finger_middle_link_median_bar">
    <visual>
      <origin rpy="0 0 0" xyz="0.01905 0 0"/>
      <geometry>
        <box size="0.0381 .0075 .002"/>
      </geometry>
    </visual>
    <collision>
      <origin rpy="0 0 0" xyz="0.01905 0 0"/>
      <geometry>
        <box size="0.0381 .0075 .002"/>
      </geometry>
    </collision>
    <inertial>
      <origin rpy="0 0 0" xyz="0.01905 -0.00107 0"/>
      <mass value="0.00538"/>
      <inertia ixx="0.00000006639" ixy="-0.00000010996" ixz="0.00000000094" iyy="0.00000305318" iyz="0" izz="0.00000304657"/>
    </inertial>
  </link>
  <gazebo reference="r_finger_middle_link_median_bar">
    <mu1>1.1</mu1>
    <mu2>1.1</mu2>
  </gazebo>
  <!-- Link paramedian hinge -->
  <link name="r_finger_middle_link_paramedian_hinge">
    <visual>
      <origin rpy="0 0 0" xyz="0 0 0"/>
      <geometry>
        <box size=".02 .02 .002"/>
      </geometry>
    </visual>
    <collision>
      <origin rpy="0 0 0" xyz="0 0 0"/>
      <geometry>
        <box size=".02 .02 .002"/>
      </geometry>
    </collision>
    <inertial>
      <origin rpy="0 0 0" xyz="-0.01025 0.00046 0"/>
      <mass value="0.00276"/>
      <inertia ixx="0.00000004213" ixy="-0.00000001491" ixz="0" iyy="0.00000050258" iyz="0" izz="0.00000054007"/>
    </inertial>
  </link>
  <gazebo reference="r_finger_middle_link_paramedian_hinge">
    <mu1>1.1</mu1>
    <mu2>1.1</mu2>
  </gazebo>
  <!-- Link median bar underactuated -->
  <link name="r_finger_middle_link_median_bar_underactuated">
    <visual>
      <origin rpy="0 0 0" xyz="0.01905 0 0"/>
      <geometry>
        <box size="0.0381 .0075 .002"/>
      </geometry>
    </visual>
    <collision>
      <origin rpy="0 0 0" xyz="0.01905 0 0"/>
      <geometry>
        <box size="0.0381 .0075 .002"/>
      </geometry>
    </collision>
    <inertial>
      <origin rpy="0 0 0" xyz="0.01905 -0.00107 0"/>
      <mass value="0.00538"/>
      <inertia ixx="0.00000006639" ixy="-0.00000010996" ixz="-0.00000000094" iyy="0.00000305318" iyz="0" izz="0.00000304657"/>
    </inertial>
  </link>
  <gazebo reference="r_finger_middle_link_median_bar_underactuated">
    <mu1>1.1</mu1>
    <mu2>1.1</mu2>
  </gazebo>
  <!-- Link paradistal hinge -->
  <link name="r_finger_middle_link_paradistal_hinge">
    <visual>
      <origin rpy="0 0 0" xyz="0 0 0"/>
      <geometry>
        <box size=".02 .02 .002"/>
      </geometry>
    </visual>
    <collision>
      <origin rpy="0 0 0" xyz="0 0 0"/>
      <geometry>
        <box size=".02 0.02 .002"/>
      </geometry>
    </collision>
    <inertial>
      <origin rpy="0 0 0" xyz="0.00548 0 0"/>
      <mass value="0.00158"/>
      <inertia ixx="0.00000001907" ixy="0" ixz="0" iyy="0.00000010970" iyz="0" izz="0.00000012610"/>
    </inertial>
  </link>
  <gazebo reference="r_finger_middle_link_paradistal_hinge">
    <mu1>1.1</mu1>
    <mu2>1.1</mu2>
  </gazebo>
  <!-- End of link list -->
  <!-- Joint list -->
  <!-- Joint proximal actuating hinge -->
  <joint name="r_finger_middle_joint_proximal_actuating_hinge" type="revolute">
    <parent link="r_finger_middle_link_0"/>
    <child link="r_finger_middle_link_proximal_actuating_hinge"/>
    <axis xyz="0 0 1"/>
    <origin rpy="0 0 -2.0906" xyz="0 0 0.01"/>
    <limit effort="100" lower="-3.1416" upper="3.1416" velocity="100"/>
  </joint>
  <gazebo reference="r_finger_middle_joint_proximal_actuating_hinge">
    <implicitSpringDamper>1</implicitSpringDamper>
  </gazebo>
  <!-- Joint paraproximal actuating hinge -->
  <joint name="r_finger_middle_joint_paraproximal_actuating_hinge" type="revolute">
    <parent link="r_finger_middle_link_0"/>
    <child link="r_finger_middle_link_paraproximal_actuating_hinge"/>
    <axis xyz="0 0 1"/>
    <origin rpy="0 0 -2.0906" xyz="0 0 -0.01"/>
    <limit effort="100" lower="-3.1416" upper="3.1416" velocity="100"/>
  </joint>
  <gazebo reference="r_finger_middle_joint_paraproximal_actuating_hinge">
    <implicitSpringDamper>1</implicitSpringDamper>
  </gazebo>
  <!-- Joint proximal actuating bar -->
  <joint name="r_finger_middle_joint_proximal_actuating_bar" type="revolute">
    <parent link="r_finger_middle_link_proximal_actuating_hinge"/>
    <child link="r_finger_middle_link_proximal_actuating_bar"/>
    <axis xyz="0 0 1"/>
    <origin rpy="0 0 1.8616" xyz="0.02858 0 0"/>
    <limit effort="100" lower="-3.1416" upper="3.1416" velocity="100"/>
  </joint>
  <gazebo reference="r_finger_middle_joint_proximal_actuating_bar">
    <implicitSpringDamper>1</implicitSpringDamper>
  </gazebo>
  <!-- Joint paraproximal bar -->
  <joint name="r_finger_middle_joint_paraproximal_bar" type="revolute">
    <parent link="r_finger_middle_link_paraproximal_actuating_hinge"/>
    <child link="r_finger_middle_link_paraproximal_bar"/>
    <axis xyz="0 0 1"/>
    <origin rpy="0 0 1.57" xyz="0.02286 0 0"/>
    <limit effort="100" lower="-3.1416" upper="3.1416" velocity="100"/>
  </joint>
  <gazebo reference="r_finger_middle_joint_paraproximal_bar">
    <implicitSpringDamper>1</implicitSpringDamper>
  </gazebo>
  <!-- Joint median actuating hinge -->
  <joint name="r_finger_middle_joint_median_actuating_hinge" type="revolute">
    <parent link="r_finger_middle_link_1"/>
    <child link="r_finger_middle_link_median_actuating_hinge"/>
    <axis xyz="0 0 1"/>
    <origin rpy="0 0 -0.37" xyz="0 0.05715 0.01"/>
    <limit effort="100" lower="-3.1416" upper="3.1416" velocity="100"/>
  </joint>
  <gazebo reference="r_finger_middle_joint_median_actuating_hinge">
    <implicitSpringDamper>1</implicitSpringDamper>
  </gazebo>
  <!-- Joint paramedian hinge -->
  <joint name="r_finger_middle_joint_paramedian_hinge" type="revolute">
    <parent link="r_finger_middle_link_1"/>
    <child link="r_finger_middle_link_paramedian_hinge"/>
    <axis xyz="0 0 1"/>
    <!-- -0.37 is hand picked, 0.9719 is hand calculated from atan(0.02381/0.01625) -->
    <origin rpy="0 0 0" xyz="0 0.05715 -0.01"/>
    <limit effort="100" lower="-3.1416" upper="3.1416" velocity="100"/>
  </joint>
  <gazebo reference="r_finger_middle_joint_paramedian_hinge">
    <implicitSpringDamper>1</implicitSpringDamper>
  </gazebo>
  <!-- Joint median actuating hinge median bar -->
  <joint name="r_finger_middle_joint_median_actuating_hinge_median_bar" type="revolute">
    <parent link="r_finger_middle_link_median_actuating_hinge"/>
    <child link="r_finger_middle_link_median_bar"/>
    <axis xyz="0 0 1"/>
    <!-- hand calc 90 deg + atan(0.01516/0.01625) -->
    <origin rpy="0 0 2.3215" xyz="0.01625 0.01516 0"/>
    <limit effort="100" lower="-3.1416" upper="3.1416" velocity="100"/>
  </joint>
  <gazebo reference="r_finger_middle_joint_median_actuating_hinge_median_bar">
    <implicitSpringDamper>1</implicitSpringDamper>
  </gazebo>
  <!-- Joint paradistal hinge -->
  <joint name="r_finger_middle_joint_paradistal_hinge" type="revolute">
    <parent link="r_finger_middle_link_2"/>
    <child link="r_finger_middle_link_paradistal_hinge"/>
    <axis xyz="0 0 1"/>
    <origin rpy="0 0 0" xyz="0 0.039 -0.01"/>
    <limit effort="100" lower="-3.1416" upper="3.1416" velocity="100"/>
  </joint>
  <gazebo reference="r_finger_middle_joint_paradistal_hinge">
    <implicitSpringDamper>1</implicitSpringDamper>
  </gazebo>
  <!-- Joint paramedian hinge median bar underactuated -->
  <joint name="r_finger_middle_joint_paramedian_hinge_median_bar_underactuated" type="revolute">
    <parent link="r_finger_middle_link_paramedian_hinge"/>
    <child link="r_finger_middle_link_median_bar_underactuated"/>
    <axis xyz="0 0 1"/>
    <!-- hand calc 90 deg + atan(0.01227/0.00329) -->
    <origin rpy="0 0 1.5708" xyz="0.01227 0.00329 0"/>
    <limit effort="100" lower="-3.1416" upper="3.1416" velocity="100"/>
  </joint>
  <gazebo reference="r_finger_middle_joint_paramedian_hinge_median_bar_underactuated">
    <implicitSpringDamper>1</implicitSpringDamper>
  </gazebo>
  <!-- Joint 1 -->
  <joint name="r_finger_middle_joint_1" type="revolute">
    <origin rpy="0 0 -2.0906" xyz="0 0 0"/>
    <axis xyz="0 0 1"/>
    <parent link="r_finger_middle_link_0"/>
    <child link="r_finger_middle_link_1"/>
    <dynamics damping="1" friction="0"/>
    <!-- Limits: [0deg.,70deg.] -->
    <limit effort="60" lower="0" upper="1.2217" velocity="-1"/>
  </joint>
  <gazebo reference="r_finger_middle_joint_1">
    <implicitSpringDamper>1</implicitSpringDamper>
  </gazebo>
  <!-- Joint 2 -->
  <joint name="r_finger_middle_joint_2" type="revolute">
    <parent link="r_finger_middle_link_1"/>
    <child link="r_finger_middle_link_2"/>
    <dynamics damping="1" friction="0"/>
    <axis xyz="0 0 1"/>
    <origin rpy="0 0 0" xyz="0 0.05715 0"/>
    <!-- Limits: [0deg.,90deg.] -->
    <limit effort="60" lower="0" upper="1.5708" velocity="-1"/>
  </joint>
  <gazebo reference="r_finger_middle_joint_2">
    <implicitSpringDamper>1</implicitSpringDamper>
  </gazebo>
  <!-- Joint 3 -->
  <joint name="r_finger_middle_joint_3" type="revolute">
    <parent link="r_finger_middle_link_2"/>
    <child link="r_finger_middle_link_3"/>
    <dynamics damping="1" friction="0"/>
    <axis xyz="0 0 1"/>
    <origin rpy="0 0 2.0906" xyz="0 0.039 0"/>
    <!-- Limits: [-38deg.,60deg.] -->
    <limit effort="60" lower="-0.6632" upper="1.0471" velocity="-1"/>
  </joint>
  <gazebo reference="r_finger_middle_joint_3">
    <implicitSpringDamper>1</implicitSpringDamper>
  </gazebo>
  <!-- end of joint list -->
  <!-- coupling joints in sdf -->
  <gazebo>
    <joint name="r_finger_middle_link_proximal_actuating_bar_median_actuating_hinge_couple" type="revolute">
      <parent>r_finger_middle_link_median_actuating_hinge</parent>
      <child>r_finger_middle_link_proximal_actuating_bar</child>
      <pose>0.05398 0 0 0 0 0</pose>
      <axis>
        <dynamics>
          <damping>0</damping>
          <friction>0</friction>
        </dynamics>
        <xyz>0 0 1</xyz>
        <!-- <use_parent_model_frame>false</use_parent_model_frame> -->
      </axis>
    </joint>
  </gazebo>
  <gazebo reference="r_finger_middle_link_proximal_actuating_bar_median_actuating_hinge_couple">
    <implicitSpringDamper>1</implicitSpringDamper>
  </gazebo>
  <gazebo>
    <joint name="r_finger_middle_link_median_bar_link_3_couple" type="revolute">
      <parent>r_finger_middle_link_3</parent>
      <child>r_finger_middle_link_median_bar</child>
      <pose>0.0381 0 0 0 0 0</pose>
      <axis>
        <dynamics>
          <damping>0</damping>
          <friction>0</friction>
        </dynamics>
        <xyz>0 0 1</xyz>
        <!-- <use_parent_model_frame>false</use_parent_model_frame> -->
      </axis>
    </joint>
  </gazebo>
  <gazebo reference="r_finger_middle_link_median_bar_link_3_couple">
    <implicitSpringDamper>1</implicitSpringDamper>
  </gazebo>
  <gazebo>
    <joint name="r_finger_middle_link_paramedian_bar_paradistal_hinge_couple" type="revolute">
      <parent>r_finger_middle_link_paradistal_hinge</parent>
      <child>r_finger_middle_link_median_bar_underactuated</child>
      <pose>0.0381 0 0 0 0 0</pose>
      <axis>
        <dynamics>
          <damping>0</damping>
          <friction>0</friction>
        </dynamics>
        <xyz>0 0 1</xyz>
        <!-- <use_parent_model_frame>false</use_parent_model_frame> -->
      </axis>
    </joint>
  </gazebo>
  <gazebo reference="r_finger_middle_link_median_bar_link_3_couple">
    <implicitSpringDamper>1</implicitSpringDamper>
  </gazebo>
  <gazebo>
    <joint name="r_finger_middle_link_paradistal_hinge_link_3_couple" type="revolute">
      <parent>r_finger_middle_link_paradistal_hinge</parent>
      <child>r_finger_middle_link_3</child>
      <pose>0.0381 0 0 0 0 0</pose>
      <axis>
        <dynamics>
          <damping>0</damping>
          <friction>0</friction>
        </dynamics>
        <xyz>0 0 1</xyz>
        <!-- <use_parent_model_frame>false</use_parent_model_frame> -->
      </axis>
    </joint>
  </gazebo>
  <gazebo reference="r_finger_middle_link_paradistal_hinge_link_3_couple">
    <implicitSpringDamper>1</implicitSpringDamper>
  </gazebo>
  <gazebo>
    <joint name="r_finger_middle_link_paraproximal_bar_paramedian_hinge_couple" type="revolute">
      <parent>r_finger_middle_link_paramedian_hinge</parent>
      <child>r_finger_middle_link_paraproximal_bar</child>
      <pose>0.05770 0 0 0 0 0</pose>
      <axis>
        <dynamics>
          <damping>0</damping>
          <friction>0</friction>
        </dynamics>
        <xyz>0 0 1</xyz>
        <!-- <use_parent_model_frame>false</use_parent_model_frame> -->
      </axis>
    </joint>
  </gazebo>
  <gazebo reference="r_finger_middle_link_paraproximal_bar_paramedian_hinge_couple">
    <implicitSpringDamper>1</implicitSpringDamper>
  </gazebo>
  <!-- link list -->
  <!-- Link palm -->
  <link name="r_palm">
    <visual>
      <geometry>
        <mesh filename="package://robotiq_s_model_visualization/meshes/s-model_articulated/visual/palm.STL"/>
      </geometry>
      <material name="green">
        <color rgba="0 1 0 1"/>
      </material>
    </visual>
    <!-- Simple shape collision -->
    <collision>
      <origin rpy="0 0 0" xyz="0 0 0"/>
      <geometry>
        <box size="0.1 0.1 0.1"/>
      </geometry>
      <material name="yellow">
        <color rgba="0 1 1 1"/>
      </material>
    </collision>
    <inertial>
      <origin rpy="0 0 0" xyz="0 0 0"/>
      <mass value="1.3"/>
      <inertia ixx="0.0035" ixy="0" ixz="-0" iyy="0.0035" iyz="0" izz="0.0035"/>
    </inertial>
  </link>
  <gazebo reference="r_palm">
    <mu1>1.1</mu1>
    <mu2>1.1</mu2>
  </gazebo>
  <!-- End of link list -->
  <!-- Joint list -->
  <!-- Joint palm_finger_1_joint -->
  <joint name="r_palm_finger_1_joint" type="revolute">
    <parent link="r_palm"/>
    <child link="r_finger_1_link_0"/>
    <dynamics damping="1" friction="0"/>
    <axis xyz="0 1 0"/>
    <origin rpy="0 3.1416 -1.57" xyz="-0.0455 0.0214 0.036"/>
    <!-- Limits: [-17deg.,17deg.] -->
    <limit effort="60" lower="-0.2967" upper="0.2967" velocity="-1"/>
  </joint>
  <gazebo reference="r_palm_finger_1_joint">
    <implicitSpringDamper>1</implicitSpringDamper>
  </gazebo>
  <!-- Joint palm_finger_2_joint -->
  <joint name="r_palm_finger_2_joint" type="revolute">
    <parent link="r_palm"/>
    <child link="r_finger_2_link_0"/>
    <dynamics damping="1" friction="0"/>
    <axis xyz="0 1 0"/>
    <origin rpy="0 3.1416 -1.57" xyz="-0.0455 0.0214 -0.036"/>
    <!-- Limits: [-17deg.,17deg.] -->
    <limit effort="60" lower="-0.2967" upper="0.2967" velocity="-1"/>
  </joint>
  <gazebo reference="r_palm_finger_2_joint">
    <implicitSpringDamper>1</implicitSpringDamper>
  </gazebo>
  <!-- Joint palm_finger_middle_joint -->
  <joint name="r_palm_finger_middle_joint" type="revolute">
    <parent link="r_palm"/>
    <child link="r_finger_middle_link_0"/>
    <dynamics damping="1" friction="0"/>
    <axis xyz="0 1 0"/>
    <origin rpy="0 0 1.57" xyz="0.0455 0.0214 0"/>
    <limit effort="60" lower="0" upper="0" velocity="-1"/>
  </joint>
  <gazebo reference="r_palm_finger_middle_joint">
    <implicitSpringDamper>1</implicitSpringDamper>
  </gazebo>
  <!-- end of joint list -->
  <!-- Join left arm to top plate -->
  <joint name="r_ur5_arm_base" type="fixed">
    <parent link="dual_arm_bulkhead_link"/>
    <child link="r_ur5_arm_base_link"/>
    <origin rpy="0 0.785 -1.57" xyz="0.125 -0.15 0.135"/>
  </joint>
  <!-- Joint right arm to top plate -->
  <joint name="l_ur5_arm_base" type="fixed">
    <parent link="dual_arm_bulkhead_link"/>
    <child link="l_ur5_arm_base_link"/>
    <origin rpy="0 -0.785 -1.57" xyz="0.125 0.15 0.135"/>
  </joint>
  <gazebo>
    <plugin filename="libhector_gazebo_ros_imu.so" name="imu_controller">
      <robotNamespace>/</robotNamespace>
      <updateRate>50.0</updateRate>
      <bodyName>base_link</bodyName>
      <topicName>imu/data</topicName>
      <accelDrift>0.005 0.005 0.005</accelDrift>
      <accelGaussianNoise>0.005 0.005 0.005</accelGaussianNoise>
      <rateDrift>0.005 0.005 0.005 </rateDrift>
      <rateGaussianNoise>0.005 0.005 0.005 </rateGaussianNoise>
      <headingDrift>0.005</headingDrift>
      <headingGaussianNoise>0.005</headingGaussianNoise>
    </plugin>
  </gazebo>
  <gazebo>
    <plugin filename="libhector_gazebo_ros_gps.so" name="gps_controller">
      <updateRate>40</updateRate>
      <robotNamespace>/</robotNamespace>
      <bodyName>base_link</bodyName>
      <frameId>base_link</frameId>
      <topicName>navsat/fix</topicName>
      <velocityTopicName>navsat/vel</velocityTopicName>
      <referenceLatitude>49.9</referenceLatitude>
      <referenceLongitude>8.9</referenceLongitude>
      <referenceHeading>0</referenceHeading>
      <referenceAltitude>0</referenceAltitude>
      <drift>0.0001 0.0001 0.0001</drift>
    </plugin>
  </gazebo>
  <gazebo>
    <plugin filename="libRobotiqHandPlugin.so" name="robotiq_left_hand_plugin">
      <side>left</side>
      <kp_position>5.0</kp_position>
      <kd_position>0.5</kd_position>
    </plugin>
  </gazebo>
  <gazebo>
    <plugin filename="libRobotiqHandPlugin.so" name="robotiq_right_hand_plugin">
      <side>right</side>
      <kp_position>5.0</kp_position>
      <kd_position>0.5</kd_position>
    </plugin>
  </gazebo>
  <gazebo reference="l_palm">
    <material>Gazebo/Black</material>
  </gazebo>
  <gazebo reference="r_palm">
    <material>Gazebo/Black</material>
  </gazebo>
  <gazebo reference="l_finger_1_link_0">
    <material>Gazebo/Black</material>
  </gazebo>
  <gazebo reference="r_finger_1_link_0">
    <material>Gazebo/Black</material>
  </gazebo>
  <gazebo reference="l_finger_1_link_1">
    <material>Gazebo/Black</material>
  </gazebo>
  <gazebo reference="r_finger_1_link_1">
    <material>Gazebo/Black</material>
  </gazebo>
  <gazebo reference="l_finger_1_link_2">
    <material>Gazebo/Black</material>
  </gazebo>
  <gazebo reference="r_finger_1_link_2">
    <material>Gazebo/Black</material>
  </gazebo>
  <gazebo reference="l_finger_1_link_3">
    <material>Gazebo/Grey</material>
  </gazebo>
  <gazebo reference="r_finger_1_link_3">
    <material>Gazebo/Grey</material>
  </gazebo>
  <gazebo reference="l_finger_2_link_0">
    <material>Gazebo/Black</material>
  </gazebo>
  <gazebo reference="r_finger_2_link_0">
    <material>Gazebo/Black</material>
  </gazebo>
  <gazebo reference="l_finger_2_link_1">
    <material>Gazebo/Black</material>
  </gazebo>
  <gazebo reference="r_finger_2_link_1">
    <material>Gazebo/Black</material>
  </gazebo>
  <gazebo reference="l_finger_2_link_2">
    <material>Gazebo/Black</material>
  </gazebo>
  <gazebo reference="r_finger_2_link_2">
    <material>Gazebo/Black</material>
  </gazebo>
  <gazebo reference="l_finger_2_link_3">
    <material>Gazebo/Grey</material>
  </gazebo>
  <gazebo reference="r_finger_2_link_3">
    <material>Gazebo/Grey</material>
  </gazebo>
  <gazebo reference="l_finger_middle_link_0">
    <material>Gazebo/Black</material>
  </gazebo>
  <gazebo reference="r_finger_middle_link_0">
    <material>Gazebo/Black</material>
  </gazebo>
  <gazebo reference="l_finger_middle_link_1">
    <material>Gazebo/Black</material>
  </gazebo>
  <gazebo reference="r_finger_middle_link_1">
    <material>Gazebo/Black</material>
  </gazebo>
  <gazebo reference="l_finger_middle_link_2">
    <material>Gazebo/Black</material>
  </gazebo>
  <gazebo reference="r_finger_middle_link_2">
    <material>Gazebo/Black</material>
  </gazebo>
  <gazebo reference="l_finger_middle_link_3">
    <material>Gazebo/Grey</material>
  </gazebo>
  <gazebo reference="r_finger_middle_link_3">
    <material>Gazebo/Grey</material>
  </gazebo>
</robot>
